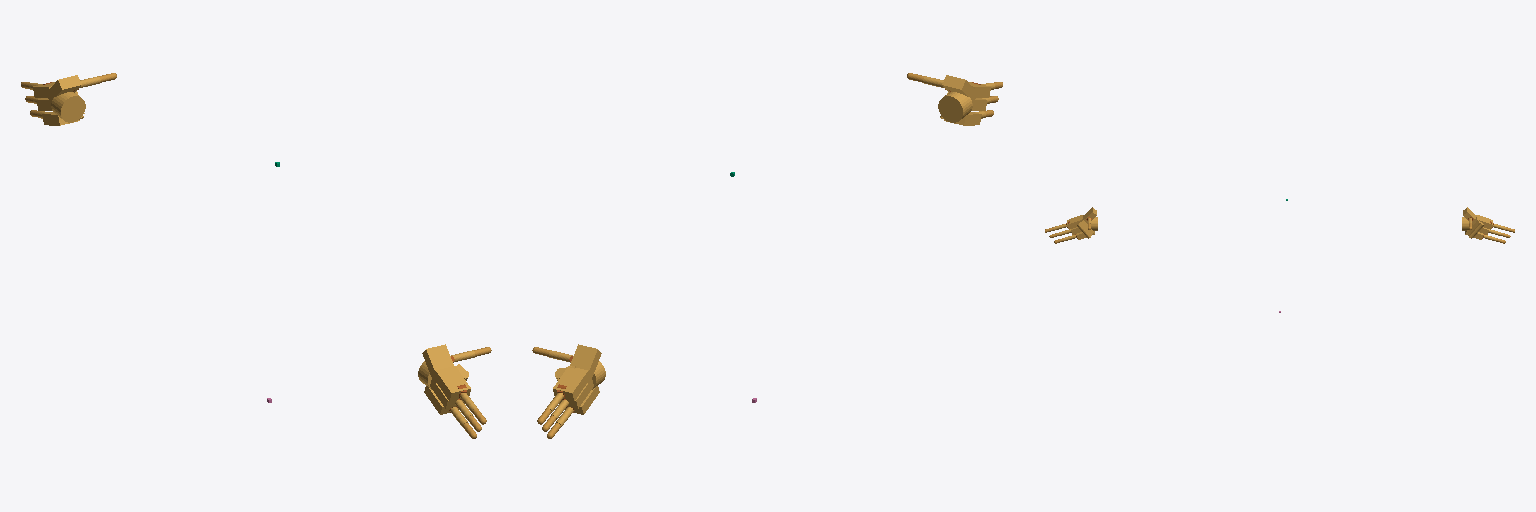
--- Facts derived from the render (not from the file) ---
3 views of the same robot in one strip: view 1: azimuth 30°, elevation 25°; view 2: azimuth 150°, elevation 25°; view 3: azimuth 270°, elevation 25° (orthographic).
Model atlas with 107 links and 106 joints (52 revolute, 1 continuous, 53 fixed), rooted at pelvis, posed all joints at 0.
Visible links, largest first — view 1: right_palm, left_palm; view 2: left_palm, right_palm; view 3: right_palm, left_palm.
Link boxes in pixels (bbox=[...]): right_palm: bbox=[418, 344, 470, 414]; left_palm: bbox=[33, 75, 85, 125]; left_palm: bbox=[553, 344, 605, 414]; right_palm: bbox=[938, 75, 990, 125]; right_palm: bbox=[1067, 207, 1097, 239]; left_palm: bbox=[1462, 207, 1492, 239].
Bounding box of the posed robot: 0.196 × 2.44 × 0.6724 m (x, y, z).
Meshes: 30 distinct files referenced, 0 mesh visuals loaded (none loaded); not drawn: 30 (reference not matched to a file when rendering).

URDF robot description (atlas):
<?xml version="1.0" ?>
<!-- =================================================================================== -->
<!-- |    This document was autogenerated by xacro from [local-path]/projects/drcsim_2.5/ros/atlas_description/robots/atlas_sandia_hands.urdf.xacro | -->
<!-- |    EDITING THIS FILE BY HAND IS NOT RECOMMENDED                                 | -->
<!-- =================================================================================== -->
<robot name="atlas" xmlns:xacro="http://www.ros.org/wiki/xacro">
  <link name="l_clav">
    <inertial>
      <mass value="2.369"/>
      <origin rpy="0 -0 0" xyz="0.014 0.058 0.029"/>
      <inertia ixx="0.004" ixy="0.001" ixz="0" iyy="0.006" iyz="0" izz="0.007"/>
    </inertial>
    <visual>
      <origin rpy="0 -0 0" xyz="0 0 0"/>
      <geometry>
        <mesh filename="package://atlas/meshes/l_clav.dae" scale="1 1 1"/>
      </geometry>
    </visual>
    <collision group="default">
      <origin rpy="0 1.5707963267949 0" xyz="0 0.0744 0.03657"/>
      <geometry>
        <cylinder length="0.1525" radius="0.045"/>
      </geometry>
    </collision>
    <collision group="other">
      <origin rpy="-0.5236 0 0" xyz="0 0.012 0.012"/>
      <geometry>
        <cylinder length="0.027" radius="0.04"/>
      </geometry>
    </collision>
  </link>
  <link name="l_farm">
    <inertial>
      <mass value="0.981"/>
      <origin rpy="0 -0 0" xyz="0 0.041 0"/>
      <inertia ixx="0.003" ixy="0" ixz="0" iyy="0.001" iyz="0" izz="0.003"/>
    </inertial>
    <visual>
      <origin rpy="0 -0 0" xyz="0 0 0"/>
      <geometry>
        <mesh filename="package://atlas/meshes/l_farm.dae" scale="1 1 1"/>
      </geometry>
    </visual>
    <collision group="default">
      <origin rpy="1.5707963267949 0 0" xyz="0 0.0174215 0"/>
      <geometry>
        <cylinder length="0.035181" radius="0.0458825"/>
      </geometry>
    </collision>
    <collision group="other">
      <origin rpy="0 1.5707963267949 0" xyz="0.000226 0.06028 0.0"/>
      <geometry>
        <cylinder length="0.050472" radius="0.0279"/>
      </geometry>
    </collision>
  </link>
  <link name="l_foot">
    <inertial>
      <mass value="0.867"/>
      <origin rpy="0 -0 0" xyz="0.027 0 -0.067"/>
      <inertia ixx="0.002" ixy="0" ixz="0" iyy="0.00350421" iyz="0" izz="0.00400651"/>
    </inertial>
    <visual>
      <origin rpy="0 -0 0" xyz="0 0 0"/>
      <geometry>
        <mesh filename="package://atlas/meshes/l_foot.dae" scale="1 1 1"/>
      </geometry>
    </visual>
    <!-- bottom -->
    <collision group="default">
      <origin rpy="0 0 0" xyz="0.048 0 -0.076119"/>
      <geometry>
        <box size="0.26 0.124887 0.01"/>
      </geometry>
    </collision>
    <!-- ankle FIXME: adding this collision body destabilizes robot, shouldn't
        <collision group="other">
          <origin xyz="0.0 0 -0.0528735" rpy="0 0 0"/>
          <geometry>
            <cylinder radius="0.0373" length="0.037827"/>
          </geometry>
        </collision>
        -->
  </link>
  <link name="l_hand">
    <inertial>
      <mass value="2.263"/>
      <origin rpy="0 -0 0" xyz="0 0.093 0"/>
      <inertia ixx="0.01" ixy="0" ixz="0" iyy="0.002" iyz="0" izz="0.01"/>
    </inertial>
    <visual>
      <origin rpy="0 -0 0" xyz="0 0 0"/>
      <geometry>
        <mesh filename="package://atlas/meshes/l_hand.dae" scale="1 1 1"/>
      </geometry>
    </visual>
    <collision group="default">
      <origin rpy="1.5707963267949 0 0" xyz="0 0.0526955 0.0"/>
      <geometry>
        <cylinder length="0.055117" radius="0.035939"/>
      </geometry>
    </collision>
    <collision group="other">
      <origin rpy="0 1.5707963267949 0" xyz="0.034375 0.002643 0"/>
      <geometry>
        <cylinder length="0.019" radius="0.035939"/>
      </geometry>
    </collision>
    <collision group="other">
      <origin rpy="0 1.5707963267949 0" xyz="-0.0365945 0.002643 0"/>
      <geometry>
        <cylinder length="0.019" radius="0.035939"/>
      </geometry>
    </collision>
  </link>
  <link name="l_larm">
    <inertial>
      <mass value="2.148"/>
      <origin rpy="0 -0 0" xyz="-0.003 0.099 -0.014"/>
      <inertia ixx="0.005" ixy="0" ixz="0" iyy="0.003" iyz="0" izz="0.006"/>
    </inertial>
    <visual>
      <origin rpy="0 -0 0" xyz="0 0 0"/>
      <geometry>
        <mesh filename="package://atlas/meshes/l_larm.dae" scale="1 1 1"/>
      </geometry>
    </visual>
    <collision group="default">
      <origin rpy="0 1.5707963267949 0" xyz="0.056065 0 0"/>
      <geometry>
        <cylinder length="0.0161" radius="0.045"/>
      </geometry>
    </collision>
    <collision group="other">
      <origin rpy="0 1.5707963267949 0" xyz="-0.0556155 0 0"/>
      <!-- double check -->
      <geometry>
        <cylinder length="0.0161" radius="0.045"/>
      </geometry>
    </collision>
    <collision group="other">
      <origin rpy="1.5707963267949 0 0" xyz="0 0.0940525 -0.01"/>
      <geometry>
        <cylinder length="0.188105" radius="0.044"/>
      </geometry>
    </collision>
  </link>
  <link name="l_lglut">
    <inertial>
      <mass value="0.803"/>
      <origin rpy="0 -0 0" xyz="0.0133341 0.0170484 -0.0312052"/>
      <inertia ixx="0.0453457" ixy="-2.24344e-05" ixz="2.50508e-06" iyy="0.0174182" iyz="0.000137862" izz="0.0071591"/>
    </inertial>
    <visual>
      <origin rpy="0 -0 0" xyz="0 0 0"/>
      <geometry>
        <mesh filename="package://atlas/meshes/l_lglut.dae" scale="1 1 1"/>
      </geometry>
    </visual>
    <collision group="default">
      <origin rpy="1.5707963267949 0 0" xyz="0.049968 0.022488 -0.0501165"/>
      <geometry>
        <cylinder length="0.060306" radius="0.02009687"/>
      </geometry>
    </collision>
    <collision group="other">
      <origin rpy="0 1.5707963267949 0" xyz="0 0 0"/>
      <geometry>
        <cylinder length="0.12" radius="0.02"/>
      </geometry>
    </collision>
  </link>
  <link name="l_lleg">
    <inertial>
      <mass value="4.367"/>
      <origin rpy="0 -0 0" xyz="0.001 0 -0.187"/>
      <inertia ixx="0.077" ixy="0" ixz="-0.003" iyy="0.076" iyz="0" izz="0.01"/>
    </inertial>
    <visual>
      <origin rpy="0 -0 0" xyz="0 0 0"/>
      <geometry>
        <mesh filename="package://atlas/meshes/l_lleg.dae" scale="1 1 1"/>
      </geometry>
    </visual>
    <collision group="default">
      <origin rpy="0 -0.06 0" xyz="-0.01 0.00295 -0.260"/>
      <geometry>
        <cylinder length="0.22" radius="0.06"/>
      </geometry>
    </collision>
    <collision group="other">
      <origin rpy="0 0.18 0" xyz="0.01 0.00295 -0.07"/>
      <geometry>
        <cylinder length="0.20" radius="0.06"/>
      </geometry>
    </collision>
  </link>
  <link name="l_scap">
    <inertial>
      <mass value="2.707"/>
      <origin rpy="0 -0 0" xyz="-0.002 0.108 0"/>
      <inertia ixx="0.01" ixy="0" ixz="0" iyy="0.005" iyz="0" izz="0.013"/>
    </inertial>
    <visual>
      <origin rpy="0 -0 0" xyz="0 0 0"/>
      <geometry>
        <mesh filename="package://atlas/meshes/l_scap.dae" scale="1 1 1"/>
      </geometry>
    </visual>
    <collision group="default">
      <origin rpy="1.5707963267949 0 0" xyz="0 0.118521 0"/>
      <geometry>
        <cylinder length="0.137492" radius="0.0418405"/>
      </geometry>
    </collision>
    <collision group="other">
      <origin rpy="0 1.5707963267949 0" xyz="-0.0884125 0 0"/>
      <geometry>
        <cylinder length="0.013937" radius="0.048709"/>
      </geometry>
    </collision>
    <collision group="other">
      <origin rpy="0 1.5707963267949 0" xyz="0.0847565 0 0"/>
      <geometry>
        <cylinder length="0.013737" radius="0.048709"/>
      </geometry>
    </collision>
  </link>
  <link name="l_talus">
    <inertial>
      <mass value="0.867"/>
      <origin rpy="0 -0 0" xyz="0 0 0"/>
      <inertia ixx="0.001" ixy="0" ixz="0" iyy="0.00350421" iyz="0" izz="0.00400651"/>
    </inertial>
    <visual>
      <origin rpy="0 -0 0" xyz="0 0 0"/>
      <geometry>
        <mesh filename="package://atlas/meshes/l_talus.dae" scale="1 1 1"/>
      </geometry>
    </visual>
    <collision group="default">
      <origin rpy="0 1.5707963267949 0" xyz="0 0 0"/>
      <geometry>
        <cylinder length="0.029542" radius="0.010181"/>
      </geometry>
    </collision>
    <collision group="other">
      <origin rpy="1.5707963267949 0 0" xyz="0 0 0"/>
      <geometry>
        <cylinder length="0.010059" radius="0.010348"/>
      </geometry>
    </collision>
  </link>
  <link name="l_uarm">
    <inertial>
      <mass value="1.881"/>
      <origin rpy="0 -0 0" xyz="0.007 0.114 0.008"/>
      <inertia ixx="0.002" ixy="0" ixz="0" iyy="0.003" iyz="0" izz="0.003"/>
    </inertial>
    <visual>
      <origin rpy="0 -0 0" xyz="0 0 0"/>
      <geometry>
        <mesh filename="package://atlas/meshes/l_uarm.dae" scale="1 1 1"/>
      </geometry>
    </visual>
    <collision group="default">
      <origin rpy="1.5707963267949 0 0" xyz="0 0.0583385 0"/>
      <geometry>
        <cylinder length="0.116677" radius="0.0449"/>
      </geometry>
    </collision>
    <collision group="other">
      <origin rpy="0 1.5707963267949 0" xyz="0 0.1205235 0.00912975"/>
      <geometry>
        <cylinder length="0.088934" radius="0.04504847"/>
      </geometry>
    </collision>
  </link>
  <link name="l_uglut">
    <inertial>
      <mass value="1.51622"/>
      <origin rpy="0 -0 0" xyz="0.00529262 -0.00344732 0.00313046"/>
      <inertia ixx="0.0327037" ixy="-3.79607e-08" ixz="-2.79549e-05" iyy="0.0174182" iyz="-3.2735e-08" izz="0.0071591"/>
    </inertial>
    <visual>
      <origin rpy="0 -0 0" xyz="0 0 0"/>
      <geometry>
        <mesh filename="package://atlas/meshes/l_uglut.dae" scale="1 1 1"/>
      </geometry>
    </visual>
    <collision group="default">
      <origin rpy="0 1.5707963267949 0" xyz="0 0 0"/>
      <geometry>
        <cylinder length="0.078396" radius="0.019096"/>
      </geometry>
    </collision>
    <collision group="other">
      <origin rpy="0 0 0" xyz="0 0 0"/>
      <geometry>
        <cylinder length="0.080842" radius="0.019841"/>
      </geometry>
    </collision>
  </link>
  <link name="l_uleg">
    <inertial>
      <mass value="7.227"/>
      <origin rpy="0 -0 0" xyz="0 0 -0.21"/>
      <inertia ixx="0.0453457" ixy="0" ixz="0" iyy="0.09" iyz="0" izz="0.0071591"/>
    </inertial>
    <visual>
      <origin rpy="0 -0 0" xyz="0 0 0"/>
      <geometry>
        <mesh filename="package://atlas/meshes/l_uleg.dae" scale="1 1 1"/>
      </geometry>
    </visual>
    <collision group="default">
      <origin rpy="0 0 0" xyz="-0.0179 0.02085 -0.13"/>
      <geometry>
        <cylinder length="0.10" radius="0.1"/>
      </geometry>
    </collision>
    <collision group="other">
      <origin rpy="0 -0.3 0" xyz="-0.03 0.01 -0.23"/>
      <geometry>
        <cylinder length="0.15" radius="0.07"/>
      </geometry>
    </collision>
    <collision group="other">
      <origin rpy="0 0.3 0" xyz="-0.005 0.01 -0.23"/>
      <geometry>
        <cylinder length="0.15" radius="0.07"/>
      </geometry>
    </collision>
    <collision group="other">
      <origin rpy="-0.25 0 0" xyz="-0.02 0.03 -0.23"/>
      <geometry>
        <cylinder length="0.15" radius="0.07"/>
      </geometry>
    </collision>
  </link>
  <link name="ltorso">
    <inertial>
      <mass value="1.62729"/>
      <origin rpy="0 -0 0" xyz="-0.0112984 -3.15366e-06 0.0746835"/>
      <inertia ixx="0.0646646" ixy="-5.04491e-08" ixz="-0.000342157" iyy="0.050298" iyz="4.87119e-07" izz="0.10973"/>
    </inertial>
    <visual>
      <origin rpy="0 -0 0" xyz="0 0 0"/>
      <geometry>
        <mesh filename="package://atlas/meshes/ltorso.dae" scale="1 1 1"/>
      </geometry>
    </visual>
    <!-- this part is completely internal
        <collision group="default">
          <origin rpy="0 0 0" xyz="0 0 0.039762"/>
          <geometry>
            <cylinder radius="0.025918" length="0.076922"/>
          </geometry>
        </collision>
        <collision group="other">
          <origin rpy="1.5707963267949 0 0" xyz="0 0.0250065 0.09025"/>
          <geometry>
            <cylinder radius="0.014828" length="0.020367"/>
          </geometry>
        </collision>
        <collision group="other">
          <origin rpy="1.5707963267949 0 0" xyz="0 -0.0248895 0.09025"/>
          <geometry>
            <cylinder radius="0.014828" length="0.020169"/>
          </geometry>
        </collision>
        -->
  </link>
  <link name="mtorso">
    <inertial>
      <mass value="3.8068"/>
      <origin rpy="0 -0 0" xyz="-0.00816266 -0.0131245 0.0305974"/>
      <inertia ixx="0.1975" ixy="-6.10764e-05" ixz="3.94009e-05" iyy="0.544742" iyz="5.27463e-05" izz="0.10973"/>
    </inertial>
    <visual>
      <origin rpy="0 -0 0" xyz="0 0 0"/>
      <geometry>
        <mesh filename="package://atlas/meshes/mtorso.dae" scale="1 1 1"/>
      </geometry>
    </visual>
    <collision group="default">
      <origin rpy="1.5707963267949 0 0" xyz="0 0 0"/>
      <geometry>
        <cylinder length="0.03" radius="0.017"/>
      </geometry>
    </collision>
    <collision group="other">
      <origin rpy="0 1.5707963267949 0" xyz="0.0285 0 0.05"/>
      <geometry>
        <cylinder length="0.02" radius="0.015"/>
      </geometry>
    </collision>
    <collision group="other">
      <origin rpy="0 1.5707963267949 0" xyz="-0.0285 0 0.05"/>
      <geometry>
        <cylinder length="0.02" radius="0.015"/>
      </geometry>
    </collision>
  </link>
  <link name="pelvis">
    <inertial>
      <mass value="12.54638"/>
      <origin rpy="0 -0 0" xyz="0.0111 0 0.0271"/>
      <inertia ixx="0.0327037" ixy="0.0008" ixz="-0.0007" iyy="0.0174182" iyz="-0.0005" izz="0.118059"/>
    </inertial>
    <visual>
      <origin rpy="0 -0 0" xyz="0 0 0"/>
      <geometry>
        <mesh filename="package://atlas/meshes/pelvis.dae" scale="1 1 1"/>
      </geometry>
    </visual>
    <collision group="default">
      <origin rpy="1.5707963267949 0 0" xyz="0.046 0.0 -0.02"/>
      <geometry>
        <cylinder length="0.03" radius="0.092"/>
      </geometry>
    </collision>
    <collision group="other">
      <origin rpy="1.5707963267949 0 0" xyz="-0.03 0.0 -0.02"/>
      <geometry>
        <cylinder length="0.03" radius="0.092"/>
      </geometry>
    </collision>
    <collision group="other">
      <origin rpy="0 0 0" xyz="0 0.042 0.06"/>
      <geometry>
        <cylinder length="0.022" radius="0.130"/>
      </geometry>
    </collision>
    <collision group="other">
      <origin rpy="0 0 0" xyz="0 -0.042 0.06"/>
      <geometry>
        <cylinder length="0.022" radius="0.130"/>
      </geometry>
    </collision>
  </link>
  <link name="r_clav">
    <inertial>
      <mass value="2.369"/>
      <origin rpy="0 -0 0" xyz="0.014 -0.058 0.029"/>
      <inertia ixx="0.004" ixy="-0.001" ixz="0" iyy="0.006" iyz="0" izz="0.007"/>
    </inertial>
    <visual>
      <origin rpy="0 -0 0" xyz="0 0 0"/>
      <geometry>
        <mesh filename="package://atlas/meshes/r_clav.dae" scale="1 1 1"/>
      </geometry>
    </visual>
    <collision group="default">
      <origin rpy="0 1.5707963267949 0" xyz="0 -0.0744 0.03657"/>
      <geometry>
        <cylinder length="0.1525" radius="0.045"/>
      </geometry>
    </collision>
    <collision group="other">
      <origin rpy="0.5236 0 0" xyz="0 -0.012 0.012"/>
      <geometry>
        <cylinder length="0.027" radius="0.04"/>
      </geometry>
    </collision>
  </link>
  <link name="r_farm">
    <inertial>
      <mass value="0.981"/>
      <origin rpy="0 -0 0" xyz="0 -0.041 0"/>
      <inertia ixx="0.003" ixy="0" ixz="0" iyy="0.001" iyz="0" izz="0.003"/>
    </inertial>
    <visual>
      <origin rpy="0 -0 0" xyz="0 0 0"/>
      <geometry>
        <mesh filename="package://atlas/meshes/r_farm.dae" scale="1 1 1"/>
      </geometry>
    </visual>
    <collision group="default">
      <origin rpy="1.5707963267949 0 0" xyz="0 -0.0174215 0"/>
      <geometry>
        <cylinder length="0.035181" radius="0.0458825"/>
      </geometry>
    </collision>
    <collision group="other">
      <origin rpy="0 1.5707963267949 0" xyz="0.000226 -0.06028 0.0"/>
      <geometry>
        <cylinder length="0.050472" radius="0.0279"/>
      </geometry>
    </collision>
  </link>
  <link name="r_foot">
    <inertial>
      <mass value="0.867"/>
      <origin rpy="0 -0 0" xyz="0.027 0 -0.067"/>
      <inertia ixx="0.002" ixy="0" ixz="0" iyy="0.00350421" iyz="0" izz="0.00400651"/>
    </inertial>
    <visual>
      <origin rpy="0 -0 0" xyz="0 0 0"/>
      <geometry>
        <mesh filename="package://atlas/meshes/r_foot.dae" scale="1 1 1"/>
      </geometry>
    </visual>
    <!-- bottom -->
    <collision group="default">
      <origin rpy="0 0 0" xyz="0.048 0 -0.076119"/>
      <geometry>
        <box size="0.26 0.124887 0.01"/>
      </geometry>
    </collision>
    <!-- ankle FIXME: adding this collision body destabilizes robot, shouldn't
        <collision group="other">
          <origin xyz="0.0 0 -0.0528735" rpy="0 0 0"/>
          <geometry>
            <cylinder radius="0.0373" length="0.037827"/>
          </geometry>
        </collision>
        -->
  </link>
  <link name="r_hand">
    <inertial>
      <mass value="2.263"/>
      <origin rpy="0 -0 0" xyz="0 -0.093 0"/>
      <inertia ixx="0.01" ixy="0" ixz="0" iyy="0.002" iyz="0" izz="0.01"/>
    </inertial>
    <visual>
      <origin rpy="0 -0 0" xyz="0 0 0"/>
      <geometry>
        <mesh filename="package://atlas/meshes/r_hand.dae" scale="1 1 1"/>
      </geometry>
    </visual>
    <collision group="default">
      <origin rpy="1.5707963267949 0 0" xyz="0 -0.0526955 0.0"/>
      <geometry>
        <cylinder length="0.055117" radius="0.035939"/>
      </geometry>
    </collision>
    <collision group="other">
      <origin rpy="0 1.5707963267949 0" xyz="0.034375 -0.002643 0"/>
      <geometry>
        <cylinder length="0.019" radius="0.035939"/>
      </geometry>
    </collision>
    <collision group="other">
      <origin rpy="0 1.5707963267949 0" xyz="-0.0365945 -0.002643 0"/>
      <geometry>
        <cylinder length="0.019" radius="0.035939"/>
      </geometry>
    </collision>
  </link>
  <link name="r_larm">
    <inertial>
      <mass value="2.148"/>
      <origin rpy="0 -0 0" xyz="-0.003 -0.099 -0.014"/>
      <inertia ixx="0.005" ixy="0" ixz="0" iyy="0.003" iyz="0" izz="0.006"/>
    </inertial>
    <visual>
      <origin rpy="0 -0 0" xyz="0 0 0"/>
      <geometry>
        <mesh filename="package://atlas/meshes/r_larm.dae" scale="1 1 1"/>
      </geometry>
    </visual>
    <collision group="default">
      <origin rpy="0 1.5707963267949 0" xyz="0.056065 0 0"/>
      <geometry>
        <cylinder length="0.0161" radius="0.045"/>
      </geometry>
    </collision>
    <collision group="other">
      <origin rpy="0 1.5707963267949 0" xyz="-0.0556155 0 0"/>
      <!-- double check -->
      <geometry>
        <cylinder length="0.0161" radius="0.045"/>
      </geometry>
    </collision>
    <collision group="other">
      <origin rpy="1.5707963267949 0 0" xyz="0 -0.0940525 -0.01"/>
      <geometry>
        <cylinder length="0.188105" radius="0.044"/>
      </geometry>
    </collision>
  </link>
  <link name="r_lglut">
    <inertial>
      <mass value="0.803"/>
      <origin rpy="0 -0 0" xyz="0.0133341 -0.0170484 -0.0312052"/>
      <inertia ixx="0.0453457" ixy="2.24344e-05" ixz="2.50508e-06" iyy="0.0174182" iyz="-0.000137862" izz="0.0071591"/>
    </inertial>
    <visual>
      <origin rpy="0 -0 0" xyz="0 0 0"/>
      <geometry>
        <mesh filename="package://atlas/meshes/r_lglut.dae" scale="1 1 1"/>
      </geometry>
    </visual>
    <collision group="default">
      <origin rpy="1.5707963267949 0 0" xyz="0.049968 -0.022488 -0.0501165"/>
      <geometry>
        <cylinder length="0.060306" radius="0.02009687"/>
      </geometry>
    </collision>
    <collision group="other">
      <origin rpy="0 1.5707963267949 0" xyz="0 0 0"/>
      <geometry>
        <cylinder length="0.12" radius="0.02"/>
      </geometry>
    </collision>
  </link>
  <link name="r_lleg">
    <inertial>
      <mass value="4.367"/>
      <origin rpy="0 -0 0" xyz="0.001 0 -0.187"/>
      <inertia ixx="0.077" ixy="-0" ixz="-0.003" iyy="0.076" iyz="-0" izz="0.01"/>
    </inertial>
    <visual>
      <origin rpy="0 -0 0" xyz="0 0 0"/>
      <geometry>
        <mesh filename="package://atlas/meshes/r_lleg.dae" scale="1 1 1"/>
      </geometry>
    </visual>
    <collision group="default">
      <origin rpy="0 -0.06 0" xyz="-0.01 -0.00295 -0.260"/>
      <geometry>
        <cylinder length="0.22" radius="0.06"/>
      </geometry>
    </collision>
    <collision group="other">
      <origin rpy="0 0.18 0" xyz="0.01 -0.00295 -0.07"/>
      <geometry>
        <cylinder length="0.20" radius="0.06"/>
      </geometry>
    </collision>
  </link>
  <link name="r_scap">
    <inertial>
      <mass value="2.707"/>
      <origin rpy="0 -0 0" xyz="-0.002 -0.108 0"/>
      <inertia ixx="0.01" ixy="0" ixz="0" iyy="0.005" iyz="0" izz="0.013"/>
    </inertial>
    <visual>
      <origin rpy="0 -0 0" xyz="0 0 0"/>
      <geometry>
        <mesh filename="package://atlas/meshes/r_scap.dae" scale="1 1 1"/>
      </geometry>
    </visual>
    <collision group="default">
      <origin rpy="1.5707963267949 0 0" xyz="0 -0.118521 0"/>
      <geometry>
        <cylinder length="0.137492" radius="0.0418405"/>
      </geometry>
    </collision>
    <collision group="other">
      <origin rpy="0 1.5707963267949 0" xyz="-0.0884125 0 0"/>
      <geometry>
        <cylinder length="0.013937" radius="0.048709"/>
      </geometry>
    </collision>
    <collision group="other">
      <origin rpy="0 1.5707963267949 0" xyz="0.0847565 0 0"/>
      <geometry>
        <cylinder length="0.013737" radius="0.048709"/>
      </geometry>
    </collision>
  </link>
  <link name="r_talus">
    <inertial>
      <mass value="0.867"/>
      <origin rpy="0 -0 0" xyz="0 0 0"/>
      <inertia ixx="0.001" ixy="0" ixz="0" iyy="0.00350421" iyz="0" izz="0.00400651"/>
    </inertial>
    <visual>
      <origin rpy="0 -0 0" xyz="0 0 0"/>
      <geometry>
        <mesh filename="package://atlas/meshes/r_talus.dae" scale="1 1 1"/>
      </geometry>
    </visual>
    <collision group="default">
      <origin rpy="0 1.5707963267949 0" xyz="0 0 0"/>
      <geometry>
        <cylinder length="0.029542" radius="0.010181"/>
      </geometry>
    </collision>
    <collision group="other">
      <origin rpy="1.5707963267949 0 0" xyz="0 0 0"/>
      <geometry>
        <cylinder length="0.010059" radius="0.010348"/>
      </geometry>
    </collision>
  </link>
  <link name="r_uarm">
    <inertial>
      <mass value="1.881"/>
      <origin rpy="0 -0 0" xyz="0.007 -0.114 0.008"/>
      <inertia ixx="0.002" ixy="0" ixz="0" iyy="0.003" iyz="0" izz="0.003"/>
    </inertial>
    <visual>
      <origin rpy="0 -0 0" xyz="0 0 0"/>
      <geometry>
        <mesh filename="package://atlas/meshes/r_uarm.dae" scale="1 1 1"/>
      </geometry>
    </visual>
    <collision group="default">
      <origin rpy="1.5707963267949 0 0" xyz="0 -0.0583385 0"/>
      <geometry>
        <cylinder length="0.116677" radius="0.0449"/>
      </geometry>
    </collision>
    <collision group="other">
      <origin rpy="0 1.5707963267949 0" xyz="0 -0.1205235 0.00912975"/>
      <geometry>
        <cylinder length="0.088934" radius="0.04504847"/>
      </geometry>
    </collision>
  </link>
  <link name="r_uglut">
    <inertial>
      <mass value="1.51622"/>
      <origin rpy="0 -0 0" xyz="0.00529262 0.00344732 0.00313046"/>
      <inertia ixx="0.0327037" ixy="3.79607e-08" ixz="-2.79549e-05" iyy="0.0174182" iyz="3.2735e-08" izz="0.0071591"/>
    </inertial>
    <visual>
      <origin rpy="0 -0 0" xyz="0 0 0"/>
      <geometry>
        <mesh filename="package://atlas/meshes/r_uglut.dae" scale="1 1 1"/>
      </geometry>
    </visual>
    <collision group="default">
      <origin rpy="0 1.5707963267949 0" xyz="0 0 0"/>
      <geometry>
        <cylinder length="0.078396" radius="0.019096"/>
      </geometry>
    </collision>
    <collision group="other">
      <origin rpy="0 0 0" xyz="0 0 0"/>
      <geometry>
        <cylinder length="0.080842" radius="0.019841"/>
      </geometry>
    </collision>
  </link>
  <link name="r_uleg">
    <inertial>
      <mass value="7.227"/>
      <origin rpy="0 -0 0" xyz="0 0 -0.21"/>
      <inertia ixx="0.0453457" ixy="0" ixz="0" iyy="0.09" iyz="0" izz="0.0071591"/>
    </inertial>
    <visual>
      <origin rpy="0 -0 0" xyz="0 0 0"/>
      <geometry>
        <mesh filename="package://atlas/meshes/r_uleg.dae" scale="1 1 1"/>
      </geometry>
    </visual>
    <collision group="default">
      <origin rpy="0 0 0" xyz="-0.0179 -0.02085 -0.13"/>
      <geometry>
        <cylinder length="0.10" radius="0.1"/>
      </geometry>
    </collision>
    <collision group="other">
      <origin rpy="0 -0.3 0" xyz="-0.03 -0.01 -0.23"/>
      <geometry>
        <cylinder length="0.15" radius="0.07"/>
      </geometry>
    </collision>
    <collision group="other">
      <origin rpy="0 0.3 0" xyz="-0.005 -0.01 -0.23"/>
      <geometry>
        <cylinder length="0.15" radius="0.07"/>
      </geometry>
    </collision>
    <collision group="other">
      <origin rpy="0.25 0 0" xyz="-0.02 -0.03 -0.23"/>
      <geometry>
        <cylinder length="0.15" radius="0.07"/>
      </geometry>
    </collision>
  </link>
  <link name="utorso">
    <inertial>
      <mass value="15.2272"/>
      <origin rpy="0 -0 0" xyz="0.02 -0.001 0.211"/>
      <inertia ixx="0.395" ixy="0" ixz="0.083" iyy="0.544742" iyz="-0.003" izz="0.10973"/>
    </inertial>
    <visual>
      <origin rpy="0 -0 0" xyz="0 0 0"/>
      <geometry>
        <mesh filename="package://atlas/meshes/utorso.dae" scale="1 1 1"/>
      </geometry>
    </visual>
    <collision group="default">
      <origin rpy="0 -0 0" xyz="0.0446 0 0.1869"/>
      <geometry>
        <box size="0.3188 0.24 0.3162"/>
      </geometry>
    </collision>
    <collision group="other">
      <origin rpy="-0.5236 0 0" xyz="0.024 0.16 0.18"/>
      <geometry>
        <cylinder length="0.22375" radius="0.0363"/>
      </geometry>
    </collision>
    <collision group="other">
      <origin rpy="0.5236 0 0" xyz="0.024 -0.16 0.18"/>
      <geometry>
        <cylinder length="0.22375" radius="0.0363"/>
      </geometry>
    </collision>
  </link>
  <joint name="back_lbz" type="revolute">
    <origin rpy="0 -0 0" xyz="-0.0125 0 0"/>
    <axis xyz="0 0 1"/>
    <parent link="pelvis"/>
    <child link="ltorso"/>
    <dynamics damping="10" friction="0"/>
    <limit effort="124.016" lower="-0.610865" upper="0.610865" velocity="12"/>
    <safety_controller k_position="100" k_velocity="100" soft_lower_limit="-10.6109" soft_upper_limit="10.6109"/>
  </joint>
  <joint name="back_mby" type="revolute">
    <origin rpy="0 -0 0" xyz="0 0 0.09"/>
    <axis xyz="0 1 0"/>
    <parent link="ltorso"/>
    <child link="mtorso"/>
    <dynamics damping="10" friction="0"/>
    <limit effort="206.843" lower="-1.2" upper="1.28" velocity="12"/>
    <safety_controller k_position="100" k_velocity="100" soft_lower_limit="-11.2" soft_upper_limit="11.28"/>
  </joint>
  <joint name="back_ubx" type="revolute">
    <origin rpy="0 -0 0" xyz="0 0 0.05"/>
    <axis xyz="1 0 0"/>
    <parent link="mtorso"/>
    <child link="utorso"/>
    <dynamics damping="10" friction="0"/>
    <limit effort="94.91" lower="-0.790809" upper="0.790809" velocity="12"/>
    <safety_controller k_position="100" k_velocity="100" soft_lower_limit="-10.7908" soft_upper_limit="10.7908"/>
  </joint>
  <joint name="l_arm_elx" type="revolute">
    <origin rpy="0 -0 0" xyz="0 0.121 0.013"/>
    <axis xyz="1 0 0"/>
    <parent link="l_uarm"/>
    <child link="l_larm"/>
    <dynamics damping="1.0" friction="0"/>
    <limit effort="114" lower="0" upper="2.35619" velocity="12"/>
    <safety_controller k_position="100" k_velocity="100" soft_lower_limit="-10" soft_upper_limit="12.3562"/>
  </joint>
  <joint name="l_arm_ely" type="revolute">
    <origin rpy="0 -0 0" xyz="0 0.185 0"/>
    <axis xyz="0 1 0"/>
    <parent link="l_scap"/>
    <child link="l_uarm"/>
    <dynamics damping="1.0" friction="0"/>
    <limit effort="114" lower="0" upper="3.14159" velocity="12"/>
    <safety_controller k_position="100" k_velocity="100" soft_lower_limit="-10" soft_upper_limit="13.1416"/>
  </joint>
  <joint name="l_arm_mwx" type="revolute">
    <origin rpy="0 -0 0" xyz="0 0.058 0"/>
    <axis xyz="1 0 0"/>
    <parent link="l_farm"/>
    <child link="l_hand"/>
    <dynamics damping="1.0" friction="0"/>
    <limit effort="60" lower="-0.436" upper="1.571" velocity="12"/>
    <safety_controller k_position="100" k_velocity="100" soft_lower_limit="-10.436" soft_upper_limit="11.571"/>
  </joint>
  <joint name="l_arm_shx" type="revolute">
    <origin rpy="0 -0 0" xyz="0 0.075 0.036"/>
    <axis xyz="1 0 0"/>
    <parent link="l_clav"/>
    <child link="l_scap"/>
    <dynamics damping="1.0" friction="0"/>
    <limit effort="170" lower="-1.39626" upper="1.74533" velocity="12"/>
    <safety_controller k_position="100" k_velocity="100" soft_lower_limit="-11.3963" soft_upper_limit="11.7453"/>
  </joint>
  <joint name="l_arm_usy" type="revolute">
    <origin rpy="0 -0 0" xyz="0.024 0.221 0.289"/>
    <axis xyz="0 0.5 0.866025"/>
    <parent link="utorso"/>
    <child link="l_clav"/>
    <dynamics damping="1.0" friction="0"/>
    <limit effort="212" lower="-1.9635" upper="1.9635" velocity="12"/>
    <safety_controller k_position="100" k_velocity="100" soft_lower_limit="-11.9635" soft_upper_limit="11.9635"/>
  </joint>
  <joint name="l_arm_uwy" type="revolute">
    <origin rpy="0 -0 0" xyz="0 0.188 -0.013"/>
    <axis xyz="0 1 0"/>
    <parent link="l_larm"/>
    <child link="l_farm"/>
    <dynamics damping="1.0" friction="0"/>
    <limit effort="114" lower="-1.571" upper="1.571" velocity="12"/>
    <safety_controller k_position="100" k_velocity="100" soft_lower_limit="-11.571" soft_upper_limit="11.571"/>
  </joint>
  <joint name="l_leg_kny" type="revolute">
    <origin rpy="0 -0 0" xyz="-0.05 0 -0.374"/>
    <axis xyz="0 1 0"/>
    <parent link="l_uleg"/>
    <child link="l_lleg"/>
    <dynamics damping="1.0" friction="0"/>
    <limit effort="220" lower="0" upper="2.45" velocity="12"/>
    <safety_controller k_position="100" k_velocity="100" soft_lower_limit="-10" soft_upper_limit="12.45"/>
  </joint>
  <joint name="l_leg_lax" type="revolute">
    <origin rpy="0 -0 0" xyz="0 0 0"/>
    <axis xyz="1 0 0"/>
    <parent link="l_talus"/>
    <child link="l_foot"/>
    <dynamics damping="1.0" friction="0"/>
    <limit effort="90" lower="-0.436" upper="0.436" velocity="12"/>
    <safety_controller k_position="100" k_velocity="100" soft_lower_limit="-10.436" soft_upper_limit="10.436"/>
  </joint>
  <joint name="l_leg_lhy" type="revolute">
    <origin rpy="0 -0 0" xyz="0.05 0 -0.05"/>
    <axis xyz="0 1 0"/>
    <parent link="l_lglut"/>
    <child link="l_uleg"/>
    <dynamics damping="1.0" friction="0"/>
    <limit effort="260" lower="-1.75" upper="0.524" velocity="12"/>
    <safety_controller k_position="100" k_velocity="100" soft_lower_limit="-11.75" soft_upper_limit="10.524"/>
  </joint>
  <joint name="l_leg_mhx" type="revolute">
    <origin rpy="0 -0 0" xyz="0 0 0"/>
    <axis xyz="1 0 0"/>
    <parent link="l_uglut"/>
    <child link="l_lglut"/>
    <dynamics damping="1.0" friction="0"/>
    <limit effort="180" lower="-0.47" upper="0.495" velocity="12"/>
    <safety_controller k_position="100" k_velocity="100" soft_lower_limit="-10.47" soft_upper_limit="10.495"/>
  </joint>
  <joint name="l_leg_uay" type="revolute">
    <origin rpy="0 -0 0" xyz="0 0 -0.422"/>
    <axis xyz="0 1 0"/>
    <parent link="l_lleg"/>
    <child link="l_talus"/>
    <dynamics damping="1.0" friction="0"/>
    <limit effort="220" lower="-0.698" upper="0.698" velocity="12"/>
    <safety_controller k_position="100" k_velocity="100" soft_lower_limit="-10.698" soft_upper_limit="10.698"/>
  </joint>
  <joint name="l_leg_uhz" type="revolute">
    <origin rpy="0 -0 0" xyz="0 0.089 0"/>
    <axis xyz="0 0 1"/>
    <parent link="pelvis"/>
    <child link="l_uglut"/>
    <dynamics damping="1.0" friction="0"/>
    <limit effort="110" lower="-0.32" upper="1.14" velocity="12"/>
    <safety_controller k_position="100" k_velocity="100" soft_lower_limit="-10.32" soft_upper_limit="11.14"/>
  </joint>
  <joint name="neck_ay" type="revolute">
    <!-- per slides on sensor head kinematics 2013-02-13, to be used after VRC
        <origin xyz="0.21672 0 0.53796" rpy="0 -0 0" />
        -->
    <!-- per slides on sensor head kinematics 2012-12-14 -->
    <origin rpy="0 -0 0" xyz="0.16555 0 0.50823"/>
    <axis xyz="0 1 0"/>
    <parent link="utorso"/>
    <child link="head"/>
    <dynamics damping="1.0" friction="0"/>
    <!-- per slides on sensor head kinematics 2012-12-14 -->
    <limit effort="5" lower="-0.610865238" upper="1.13446401" velocity="12"/>
    <safety_controller k_position="100" k_velocity="100" soft_lower_limit="-10.610865238" soft_upper_limit="11.13446401"/>
  </joint>
  <joint name="r_arm_elx" type="revolute">
    <origin rpy="0 -0 0" xyz="0 -0.121 0.013"/>
    <axis xyz="1 0 0"/>
    <parent link="r_uarm"/>
    <child link="r_larm"/>
    <dynamics damping="1.0" friction="0"/>
    <limit effort="114" lower="-2.35619" upper="0" velocity="12"/>
    <safety_controller k_position="100" k_velocity="100" soft_lower_limit="-12.3562" soft_upper_limit="10"/>
  </joint>
  <joint name="r_arm_ely" type="revolute">
    <origin rpy="0 -0 0" xyz="0 -0.185 0"/>
    <axis xyz="0 1 0"/>
    <parent link="r_scap"/>
    <child link="r_uarm"/>
    <dynamics damping="1.0" friction="0"/>
    <limit effort="114" lower="0" upper="3.14159" velocity="12"/>
    <safety_controller k_position="100" k_velocity="100" soft_lower_limit="-10" soft_upper_limit="13.1416"/>
  </joint>
  <joint name="r_arm_mwx" type="revolute">
    <origin rpy="0 -0 0" xyz="0 -0.058 0"/>
    <axis xyz="1 0 0"/>
    <parent link="r_farm"/>
    <child link="r_hand"/>
    <dynamics damping="1.0" friction="0"/>
    <limit effort="60" lower="-1.571" upper="0.436" velocity="12"/>
    <safety_controller k_position="100" k_velocity="100" soft_lower_limit="-11.571" soft_upper_limit="10.436"/>
  </joint>
  <joint name="r_arm_shx" type="revolute">
    <origin rpy="0 -0 0" xyz="0 -0.075 0.036"/>
    <axis xyz="1 0 0"/>
    <parent link="r_clav"/>
    <child link="r_scap"/>
    <dynamics damping="1.0" friction="0"/>
    <limit effort="170" lower="-1.74533" upper="1.39626" velocity="12"/>
    <safety_controller k_position="100" k_velocity="100" soft_lower_limit="-11.7453" soft_upper_limit="11.3963"/>
  </joint>
  <joint name="r_arm_usy" type="revolute">
    <origin rpy="0 -0 0" xyz="0.024 -0.221 0.289"/>
    <axis xyz="0 0.5 -0.866025"/>
    <parent link="utorso"/>
    <child link="r_clav"/>
    <dynamics damping="1.0" friction="0"/>
    <limit effort="212" lower="-1.9635" upper="1.9635" velocity="12"/>
    <safety_controller k_position="100" k_velocity="100" soft_lower_limit="-11.9635" soft_upper_limit="11.9635"/>
  </joint>
  <joint name="r_arm_uwy" type="revolute">
    <origin rpy="0 -0 0" xyz="0 -0.188 -0.013"/>
    <axis xyz="0 1 0"/>
    <parent link="r_larm"/>
    <child link="r_farm"/>
    <dynamics damping="1.0" friction="0"/>
    <limit effort="114" lower="-1.571" upper="1.571" velocity="12"/>
    <safety_controller k_position="100" k_velocity="100" soft_lower_limit="-11.571" soft_upper_limit="11.571"/>
  </joint>
  <joint name="r_leg_kny" type="revolute">
    <origin rpy="0 -0 0" xyz="-0.05 0 -0.374"/>
    <axis xyz="0 1 0"/>
    <parent link="r_uleg"/>
    <child link="r_lleg"/>
    <dynamics damping="1.0" friction="0"/>
    <limit effort="220" lower="0" upper="2.45" velocity="12"/>
    <safety_controller k_position="100" k_velocity="100" soft_lower_limit="-10" soft_upper_limit="12.45"/>
  </joint>
  <joint name="r_leg_lax" type="revolute">
    <origin rpy="0 -0 0" xyz="0 0 0"/>
    <axis xyz="1 0 0"/>
    <parent link="r_talus"/>
    <child link="r_foot"/>
    <dynamics damping="1.0" friction="0"/>
    <limit effort="90" lower="-0.436" upper="0.436" velocity="12"/>
    <safety_controller k_position="100" k_velocity="100" soft_lower_limit="-10.436" soft_upper_limit="10.436"/>
  </joint>
  <joint name="r_leg_lhy" type="revolute">
    <origin rpy="0 -0 0" xyz="0.05 0 -0.05"/>
    <axis xyz="0 1 0"/>
    <parent link="r_lglut"/>
    <child link="r_uleg"/>
    <dynamics damping="1.0" friction="0"/>
    <limit effort="260" lower="-1.745" upper="0.524" velocity="12"/>
    <safety_controller k_position="100" k_velocity="100" soft_lower_limit="-11.745" soft_upper_limit="10.524"/>
  </joint>
  <joint name="r_leg_mhx" type="revolute">
    <origin rpy="0 -0 0" xyz="0 0 0"/>
    <axis xyz="1 0 0"/>
    <parent link="r_uglut"/>
    <child link="r_lglut"/>
    <dynamics damping="1.0" friction="0"/>
    <limit effort="180" lower="-0.495" upper="0.47" velocity="12"/>
    <safety_controller k_position="100" k_velocity="100" soft_lower_limit="-10.495" soft_upper_limit="10.47"/>
  </joint>
  <joint name="r_leg_uay" type="revolute">
    <origin rpy="0 -0 0" xyz="0 0 -0.422"/>
    <axis xyz="0 1 0"/>
    <parent link="r_lleg"/>
    <child link="r_talus"/>
    <dynamics damping="1.0" friction="0"/>
    <limit effort="220" lower="-0.698" upper="0.698" velocity="12"/>
    <safety_controller k_position="100" k_velocity="100" soft_lower_limit="-10.698" soft_upper_limit="10.698"/>
  </joint>
  <joint name="r_leg_uhz" type="revolute">
    <origin rpy="0 -0 0" xyz="0 -0.089 0"/>
    <axis xyz="0 0 1"/>
    <parent link="pelvis"/>
    <child link="r_uglut"/>
    <dynamics damping="1.0" friction="0"/>
    <limit effort="260" lower="-1.14" upper="0.32" velocity="12"/>
    <safety_controller k_position="100" k_velocity="100" soft_lower_limit="-11.14" soft_upper_limit="10.32"/>
  </joint>
  <link name="right_palm">
    <origin rpy="0 0 0" xyz="0 0 0"/>
    <inertial>
      <mass value="1.303"/>
      <origin xyz="0 0 0"/>
      <!-- solid sphere with 5cm radius -->
      <inertia ixx="0.001303" ixy="0" ixz="0" iyy="0.001303" iyz="0" izz="0.001303"/>
    </inertial>
    <!-- begin simple shape approximation of palm -->
    <collision group="default">
      <origin rpy="0 1.57079632679 -0.9" xyz="0.069 0.016 0.038"/>
      <geometry>
        <cylinder length="0.100" radius="0.013"/>
      </geometry>
    </collision>
    <collision group="other">
      <origin rpy="0.41 0 -0.9" xyz="0.064 0.008 0.021"/>
      <geometry>
        <box size="0.09 .035 .05"/>
      </geometry>
    </collision>
    <collision group="other">
      <origin rpy="0 1.57079632679 0" xyz="0.02 0 -0.005"/>
      <geometry>
        <cylinder length="0.05" radius="0.038"/>
      </geometry>
    </collision>
    <collision group="other">
      <origin rpy="0 0 0.37" xyz="0.11 -0.01 -0.005"/>
      <geometry>
        <box size="0.09 .03 .06"/>
      </geometry>
    </collision>
    <collision group="other">
      <origin rpy="0 0 0.37" xyz="0.09 0.02 -0.005"/>
      <geometry>
        <box size="0.09 .03 .06"/>
      </geometry>
    </collision>
    <collision group="other">
      <origin rpy="0 0 0.37" xyz="0.060 0.05 -0.005"/>
      <geometry>
        <box size="0.09 .03 .06"/>
      </geometry>
    </collision>
    <collision group="other">
      <origin rpy="0 0 0.79" xyz="0.044 -0.04 -0.005"/>
      <geometry>
        <box size="0.09 .03 .06"/>
      </geometry>
    </collision>
    <!--   end simple shape approximation of palm -->
    <!-- begin visual shape approximation of palm -->
    <visual>
      <origin rpy="0 1.57079632679 -0.9" xyz="0.069 0.016 0.038"/>
      <geometry>
        <cylinder length="0.100" radius="0.013"/>
      </geometry>
      <material name="right_sandia_hand_skin">
        <color rgba="0.835 0.655 0.345 1.0"/>
      </material>
    </visual>
    <visual>
      <origin rpy="0.41 0 -0.9" xyz="0.064 0.008 0.021"/>
      <geometry>
        <box size="0.09 .035 .05"/>
      </geometry>
      <material name="right_sandia_hand_skin">
        <color rgba="0.835 0.655 0.345 1.0"/>
      </material>
    </visual>
    <visual>
      <origin rpy="0 1.57079632679 0" xyz="0.02 0 -0.005"/>
      <geometry>
        <cylinder length="0.05" radius="0.038"/>
      </geometry>
      <material name="right_sandia_hand_skin">
        <color rgba="0.835 0.655 0.345 1.0"/>
      </material>
    </visual>
    <visual>
      <origin rpy="0 0 0.37" xyz="0.11 -0.01 -0.005"/>
      <geometry>
        <box size="0.09 .03 .06"/>
      </geometry>
      <material name="right_sandia_hand_skin">
        <color rgba="0.835 0.655 0.345 1.0"/>
      </material>
    </visual>
    <visual>
      <origin rpy="0 0 0.37" xyz="0.09 0.02 -0.005"/>
      <geometry>
        <box size="0.09 .03 .06"/>
      </geometry>
      <material name="right_sandia_hand_skin">
        <color rgba="0.835 0.655 0.345 1.0"/>
      </material>
    </visual>
    <visual>
      <origin rpy="0 0 0.37" xyz="0.060 0.05 -0.005"/>
      <geometry>
        <box size="0.09 .03 .06"/>
      </geometry>
      <material name="right_sandia_hand_skin">
        <color rgba="0.835 0.655 0.345 1.0"/>
      </material>
    </visual>
    <visual>
      <origin rpy="0 0 0.79" xyz="0.044 -0.04 -0.005"/>
      <geometry>
        <box size="0.09 .03 .06"/>
      </geometry>
      <material name="right_sandia_hand_skin">
        <color rgba="0.835 0.655 0.345 1.0"/>
      </material>
    </visual>
    <!--   end visual shape approximation of palm -->
    <!-- begin collision mesh of f2 ->
      <collision group="default">
        <origin xyz="0 0 0" rpy="0 0 0"/>
        <geometry>
          <mesh filename="package://sandia_hand_description/meshes/palm.stl"/>
        </geometry>
      </collision>
      <!-   end collision mesh of f2 -->
    <!-- begin visual mesh of f2    ->
      <visual>
        <origin xyz="0 0 0" rpy="0 0 0"/>
        <geometry>
          <mesh filename="package://sandia_hand_description/meshes/palm.stl"/>
        </geometry>
        <material name="${side}_sandia_hand_skin">
          <color rgba="0.835 0.655 0.345 1.0"/>
        </material>
      </visual>
      <!-   end visual mesh of f2 -->
  </link>
  <joint name="right_sandia_hand_joint" type="fixed">
    <parent link="r_hand"/>
    <child link="right_palm"/>
    <origin rpy="-1.57079 0 -1.57079" xyz="0 -0.1 0"/>
  </joint>
  <link name="right_f0_base">
    <origin rpy="0 0 0" xyz="0 0 0"/>
    <inertial>
      <!-- total mass is 2.303 kg, palm is about 1.303 kg, distribute the rest into _base -->
      <mass value="0.250"/>
      <!-- (2.303 - 1.303) / 4 -->
      <origin xyz="0 0 0"/>
      <!-- model as sphere with radius of 1cm -->
      <inertia ixx="0.00001" ixy="0" ixz="0" iyy="0.00001" iyz="0" izz="0.00001"/>
    </inertial>
  </link>
  <link name="right_f0_fixed_accel">
    <origin rpy="0 0 0" xyz="0 0 0"/>
    <inertial>
      <mass value="0.01"/>
      <origin xyz="0 0 0"/>
      <inertia ixx="0.000001" ixy="0" ixz="0" iyy="0.000001" iyz="0" izz="0.000001"/>
    </inertial>
  </link>
  <link name="right_f0_0">
    <origin rpy="0 0 0" xyz="0 0 0"/>
    <inertial>
      <mass value="0.106"/>
      <!-- F1 -->
      <origin xyz="0 0 0"/>
      <!-- solid cylinder -->
      <inertia ixx="0.000011925" ixy="0" ixz="0" iyy="0.00011505" iyz="0" izz="0.00011505"/>
    </inertial>
    <!-- begin simple shape approximation of f0 -->
    <collision group="default">
      <origin rpy="0 0 0" xyz="0 0 0.003"/>
      <geometry>
        <cylinder length="0.023" radius="0.015"/>
      </geometry>
    </collision>
    <collision group="other">
      <origin rpy="1.57079632679 0 0" xyz="0.011 0 0.003"/>
      <geometry>
        <cylinder length="0.023" radius="0.01"/>
      </geometry>
    </collision>
    <!--   end simple shape approximation of f0 -->
    <!-- begin visual shape approximation of f0 -->
    <visual>
      <origin rpy="0 0 0" xyz="0 0 0.003"/>
      <geometry>
        <cylinder length="0.023" radius="0.015"/>
      </geometry>
      <material name="right_sandia_hand_skin_suntan">
        <color rgba="0.7 0.4 0.2 1.0"/>
      </material>
    </visual>
    <visual>
      <origin rpy="1.57079632679 0 0" xyz="0.011 0 0.003"/>
      <geometry>
        <cylinder length="0.023" radius="0.01"/>
      </geometry>
      <material name="right_sandia_hand_skin_suntan">
        <color rgba="0.7 0.4 0.2 1.0"/>
      </material>
    </visual>
    <!--   end visual shape approximation of f0 -->
    <!-- begin collision mesh of f0 ->
      <collision group="default">
        <origin xyz="0 0 0" rpy="0 0 0"/>
        <geometry>
          <mesh filename="package://sandia_hand_description/meshes/f0.stl"/>
        </geometry>
      </collision>
      <!-   end collision mesh of f0 -->
    <!-- begin visual mesh of f0 ->
      <visual>
        <origin xyz="0 0 0" rpy="0 0 0"/>
        <geometry>
          <mesh filename="package://sandia_hand_description/meshes/f0.stl"/>
        </geometry>
        <material name="${side}_sandia_hand_skin_suntan">
          <color rgba="0.7 0.4 0.2 1.0"/>
        </material>
      </visual>
      <!-   end visual mesh of f0 -->
  </link>
  <link name="right_f0_1">
    <origin rpy="0 0 0" xyz="0 0 0"/>
    <inertial>
      <mass value="0.033"/>
      <!-- F2 -->
      <origin xyz="0 0 0"/>
      <!-- solid cylinder -->
      <inertia ixx="0.00000165" ixy="0" ixz="0" iyy="0.00001316975" iyz="0" izz="0.00001316975"/>
    </inertial>
    <!-- begin simple shape approximation of f1 -->
    <collision group="default">
      <origin rpy="0 1.57079632679 0" xyz="0.024 0 0"/>
      <geometry>
        <cylinder length="0.067" radius="0.01"/>
      </geometry>
    </collision>
    <!--   end simple shape approximation of f1 -->
    <!-- begin visual shape approximation of f1 -->
    <visual>
      <origin rpy="0 1.57079632679 0" xyz="0.024 0 0"/>
      <geometry>
        <cylinder length="0.067" radius="0.01"/>
      </geometry>
      <material name="right_sandia_hand_skin">
        <color rgba="0.835 0.655 0.345 1.0"/>
      </material>
    </visual>
    <!--   end visual shape approximation of f1 -->
    <!-- begin collision mesh of f1 ->
      <collision group="default">
        <origin xyz="0 0 0" rpy="0 0 0"/>
        <geometry>
          <mesh filename="package://sandia_hand_description/meshes/f1.stl"/>
        </geometry>
      </collision>
      <!-   end collision mesh of f1 -->
    <!-- begin visual mesh of f1 ->
      <visual>
        <origin xyz="0 0 0" rpy="0 0 0"/>
        <geometry>
          <mesh filename="package://sandia_hand_description/meshes/f1.stl"/>
        </geometry>
        <material name="${side}_sandia_hand_skin">
          <color rgba="0.835 0.655 0.345 1.0"/>
        </material>
      </visual>
      <!-   end visual mesh of f1 -->
  </link>
  <link name="right_f0_1_accel">
    <origin rpy="0 0 0" xyz="0 0 0"/>
    <inertial>
      <mass value="0.01"/>
      <origin xyz="0 0 0"/>
      <inertia ixx="0.000001" ixy="0" ixz="0" iyy="0.000001" iyz="0" izz="0.000001"/>
    </inertial>
  </link>
  <link name="right_f0_2">
    <origin rpy="0 0 0" xyz="0 0 0"/>
    <inertial>
      <mass value="0.033"/>
      <!-- F3 -->
      <origin xyz="0 0 0"/>
      <!-- solid cylinder -->
      <inertia ixx="0.0000013365" ixy="0" ixz="0" iyy="0.000009603" iyz="0" izz="0.000009603"/>
    </inertial>
    <!-- begin simple shape approximation of f2 -->
    <collision group="default">
      <origin rpy="0 1.57079632679 0" xyz="0.024 0 0"/>
      <geometry>
        <cylinder length="0.057" radius="0.009"/>
      </geometry>
    </collision>
    <collision group="other">
      <origin rpy="0 0 0" xyz="0.052 0 0"/>
      <geometry>
        <sphere radius="0.009"/>
      </geometry>
    </collision>
    <!--   end simple shape approximation of f2 -->
    <!-- begin visual shape approximation of f2 -->
    <visual>
      <origin rpy="0 1.57079632679 0" xyz="0.024 0 0"/>
      <geometry>
        <cylinder length="0.057" radius="0.009"/>
      </geometry>
      <material name="right_sandia_hand_skin_suntan">
        <color rgba="0.8 0.6 0.3 1.0"/>
      </material>
    </visual>
    <visual>
      <origin rpy="0 0 0" xyz="0.052 0 0"/>
      <geometry>
        <sphere radius="0.009"/>
      </geometry>
      <material name="right_sandia_hand_skin_suntan">
        <color rgba="0.8 0.6 0.3 1.0"/>
      </material>
    </visual>
    <!-- begin collision mesh of f2    ->
      <collision group="default">
        <origin xyz="0 0 0" rpy="0 0 0"/>
        <geometry>
          <mesh filename="package://sandia_hand_description/meshes/f2.stl"/>
        </geometry>
      </collision>
      <!-   end collision mesh of f2 -->
    <!-- begin visual mesh of f2    ->
      <visual>
        <origin xyz="0 0 0" rpy="0 0 0"/>
        <geometry>
          <mesh filename="package://sandia_hand_description/meshes/f2.stl"/>
        </geometry>
        <material name="${side}_sandia_hand_skin_suntan">
          <color rgba="0.8 0.6 0.3 1.0"/>
        </material>
      </visual>
      <!-   end visual mesh of f2 -->
  </link>
  <link name="right_f0_2_accel">
    <origin rpy="0 0 0" xyz="0 0 0"/>
    <inertial>
      <mass value="0.01"/>
      <origin xyz="0 0 0"/>
      <inertia ixx="0.000001" ixy="0" ixz="0" iyy="0.000001" iyz="0" izz="0.000001"/>
    </inertial>
  </link>
  <joint name="right_f0_base" type="fixed">
    <parent link="right_palm"/>
    <child link="right_f0_base"/>
    <origin rpy="0 0 0.3" xyz="0.14 0.0 0"/>
  </joint>
  <joint name="right_f0_j0" type="revolute">
    <axis xyz="0 0 1"/>
    <parent link="right_f0_base"/>
    <child link="right_f0_0"/>
    <limit effort="11" lower="-1.57079632679" upper="1.57079632679" velocity="-1"/>
    <safety_controller k_position="1000.0" k_velocity="1000.0" soft_lower_limit="-11.57079" soft_upper_limit="11.57079"/>
    <dynamics damping="1.0"/>
    <origin rpy="0 0 0" xyz="0 0 0"/>
  </joint>
  <joint name="right_f0_j1" type="revolute">
    <axis xyz="0 0 1"/>
    <parent link="right_f0_0"/>
    <child link="right_f0_1"/>
    <limit effort="28" lower="-1.57079632679" upper="1.57079632679" velocity="-1"/>
    <safety_controller k_position="1000.0" k_velocity="1000.0" soft_lower_limit="-11.57079" soft_upper_limit="11.57079"/>
    <dynamics damping="1.0"/>
    <origin rpy="1.57079632679 0 0" xyz="0.028 0 0"/>
  </joint>
  <joint name="right_f0_j2" type="revolute">
    <axis xyz="0 0 1"/>
    <parent link="right_f0_1"/>
    <child link="right_f0_2"/>
    <origin rpy="0 0 0" xyz="0.05 0 0"/>
    <safety_controller k_position="1000.0" k_velocity="1000.0" soft_lower_limit="-11.57079" soft_upper_limit="11.57079"/>
    <dynamics damping="1.0"/>
    <limit effort="28" lower="-1.57079632679" upper="1.57079632679" velocity="-1"/>
  </joint>
  <joint name="right_f0_fixed_accel" type="fixed">
    <parent link="right_f0_base"/>
    <child link="right_f0_fixed_accel"/>
    <origin rpy="0 0 0" xyz="-0.05 0 0"/>
  </joint>
  <joint name="right_f0_1_accel" type="fixed">
    <parent link="right_f0_1"/>
    <child link="right_f0_1_accel"/>
    <origin rpy="-1.57079632679 0 0" xyz="0.03 0 0"/>
  </joint>
  <joint name="right_f0_2_accel" type="fixed">
    <parent link="right_f0_2"/>
    <child link="right_f0_2_accel"/>
    <origin rpy="-1.57079632679 0 0" xyz="0.04 0 0"/>
  </joint>
  <transmission name="right_f0_j0" type="pr2_mechanism_model/SimpleTransmission">
    <joint name="right_f0_j0"/>
    <actuator name="right_f0_j0_motor"/>
    <mechanicalReduction>1</mechanicalReduction>
  </transmission>
  <transmission name="right_f0_j1" type="pr2_mechanism_model/SimpleTransmission">
    <joint name="right_f0_j1"/>
    <actuator name="right_f0_j1_motor"/>
    <mechanicalReduction>1</mechanicalReduction>
  </transmission>
  <transmission name="right_f0_j2" type="pr2_mechanism_model/SimpleTransmission">
    <joint name="right_f0_j2"/>
    <actuator name="right_f0_j2_motor"/>
    <mechanicalReduction>1</mechanicalReduction>
  </transmission>
  <gazebo reference="right_f0_base">
    <mu1>0.9</mu1>
    <mu2>0.9</mu2>
    <kp>1000000.0</kp>
    <kd>1.0</kd>
    <maxVel>0.1</maxVel>
    <minDepth>0.001</minDepth>
    <material>Gazebo/FlatBlack</material>
  </gazebo>
  <gazebo reference="right_f0_0">
    <mu1>0.9</mu1>
    <mu2>0.9</mu2>
    <kp>1000000.0</kp>
    <kd>1.0</kd>
    <maxVel>0.1</maxVel>
    <minDepth>0.003</minDepth>
    <maxContacts>1</maxContacts>
    <material>Gazebo/FlatBlack</material>
  </gazebo>
  <gazebo reference="right_f0_1">
    <mu1>0.9</mu1>
    <mu2>0.9</mu2>
    <kp>1000000.0</kp>
    <kd>1.0</kd>
    <maxVel>0.1</maxVel>
    <minDepth>0.003</minDepth>
    <maxContacts>1</maxContacts>
    <material>Gazebo/FlatBlack</material>
  </gazebo>
  <gazebo reference="right_f0_2">
    <mu1>0.9</mu1>
    <mu2>0.9</mu2>
    <kp>1000000.0</kp>
    <kd>1.0</kd>
    <maxVel>0.1</maxVel>
    <minDepth>0.003</minDepth>
    <maxContacts>1</maxContacts>
    <material>Gazebo/FlatBlack</material>
  </gazebo>
  <gazebo reference="right_f0_j0">
    <cfmDamping>1</cfmDamping>
  </gazebo>
  <gazebo reference="right_f0_j1">
    <cfmDamping>1</cfmDamping>
  </gazebo>
  <gazebo reference="right_f0_j2">
    <cfmDamping>1</cfmDamping>
  </gazebo>
  <link name="right_f1_base">
    <origin rpy="0 0 0" xyz="0 0 0"/>
    <inertial>
      <!-- total mass is 2.303 kg, palm is about 1.303 kg, distribute the rest into _base -->
      <mass value="0.250"/>
      <!-- (2.303 - 1.303) / 4 -->
      <origin xyz="0 0 0"/>
      <!-- model as sphere with radius of 1cm -->
      <inertia ixx="0.00001" ixy="0" ixz="0" iyy="0.00001" iyz="0" izz="0.00001"/>
    </inertial>
  </link>
  <link name="right_f1_fixed_accel">
    <origin rpy="0 0 0" xyz="0 0 0"/>
    <inertial>
      <mass value="0.01"/>
      <origin xyz="0 0 0"/>
      <inertia ixx="0.000001" ixy="0" ixz="0" iyy="0.000001" iyz="0" izz="0.000001"/>
    </inertial>
  </link>
  <link name="right_f1_0">
    <origin rpy="0 0 0" xyz="0 0 0"/>
    <inertial>
      <mass value="0.106"/>
      <!-- F1 -->
      <origin xyz="0 0 0"/>
      <!-- solid cylinder -->
      <inertia ixx="0.000011925" ixy="0" ixz="0" iyy="0.00011505" iyz="0" izz="0.00011505"/>
    </inertial>
    <!-- begin simple shape approximation of f0 -->
    <collision group="default">
      <origin rpy="0 0 0" xyz="0 0 0.003"/>
      <geometry>
        <cylinder length="0.023" radius="0.015"/>
      </geometry>
    </collision>
    <collision group="other">
      <origin rpy="1.57079632679 0 0" xyz="0.011 0 0.003"/>
      <geometry>
        <cylinder length="0.023" radius="0.01"/>
      </geometry>
    </collision>
    <!--   end simple shape approximation of f0 -->
    <!-- begin visual shape approximation of f0 -->
    <visual>
      <origin rpy="0 0 0" xyz="0 0 0.003"/>
      <geometry>
        <cylinder length="0.023" radius="0.015"/>
      </geometry>
      <material name="right_sandia_hand_skin_suntan">
        <color rgba="0.7 0.4 0.2 1.0"/>
      </material>
    </visual>
    <visual>
      <origin rpy="1.57079632679 0 0" xyz="0.011 0 0.003"/>
      <geometry>
        <cylinder length="0.023" radius="0.01"/>
      </geometry>
      <material name="right_sandia_hand_skin_suntan">
        <color rgba="0.7 0.4 0.2 1.0"/>
      </material>
    </visual>
    <!--   end visual shape approximation of f0 -->
    <!-- begin collision mesh of f0 ->
      <collision group="default">
        <origin xyz="0 0 0" rpy="0 0 0"/>
        <geometry>
          <mesh filename="package://sandia_hand_description/meshes/f0.stl"/>
        </geometry>
      </collision>
      <!-   end collision mesh of f0 -->
    <!-- begin visual mesh of f0 ->
      <visual>
        <origin xyz="0 0 0" rpy="0 0 0"/>
        <geometry>
          <mesh filename="package://sandia_hand_description/meshes/f0.stl"/>
        </geometry>
        <material name="${side}_sandia_hand_skin_suntan">
          <color rgba="0.7 0.4 0.2 1.0"/>
        </material>
      </visual>
      <!-   end visual mesh of f0 -->
  </link>
  <link name="right_f1_1">
    <origin rpy="0 0 0" xyz="0 0 0"/>
    <inertial>
      <mass value="0.033"/>
      <!-- F2 -->
      <origin xyz="0 0 0"/>
      <!-- solid cylinder -->
      <inertia ixx="0.00000165" ixy="0" ixz="0" iyy="0.00001316975" iyz="0" izz="0.00001316975"/>
    </inertial>
    <!-- begin simple shape approximation of f1 -->
    <collision group="default">
      <origin rpy="0 1.57079632679 0" xyz="0.024 0 0"/>
      <geometry>
        <cylinder length="0.067" radius="0.01"/>
      </geometry>
    </collision>
    <!--   end simple shape approximation of f1 -->
    <!-- begin visual shape approximation of f1 -->
    <visual>
      <origin rpy="0 1.57079632679 0" xyz="0.024 0 0"/>
      <geometry>
        <cylinder length="0.067" radius="0.01"/>
      </geometry>
      <material name="right_sandia_hand_skin">
        <color rgba="0.835 0.655 0.345 1.0"/>
      </material>
    </visual>
    <!--   end visual shape approximation of f1 -->
    <!-- begin collision mesh of f1 ->
      <collision group="default">
        <origin xyz="0 0 0" rpy="0 0 0"/>
        <geometry>
          <mesh filename="package://sandia_hand_description/meshes/f1.stl"/>
        </geometry>
      </collision>
      <!-   end collision mesh of f1 -->
    <!-- begin visual mesh of f1 ->
      <visual>
        <origin xyz="0 0 0" rpy="0 0 0"/>
        <geometry>
          <mesh filename="package://sandia_hand_description/meshes/f1.stl"/>
        </geometry>
        <material name="${side}_sandia_hand_skin">
          <color rgba="0.835 0.655 0.345 1.0"/>
        </material>
      </visual>
      <!-   end visual mesh of f1 -->
  </link>
  <link name="right_f1_1_accel">
    <origin rpy="0 0 0" xyz="0 0 0"/>
    <inertial>
      <mass value="0.01"/>
      <origin xyz="0 0 0"/>
      <inertia ixx="0.000001" ixy="0" ixz="0" iyy="0.000001" iyz="0" izz="0.000001"/>
    </inertial>
  </link>
  <link name="right_f1_2">
    <origin rpy="0 0 0" xyz="0 0 0"/>
    <inertial>
      <mass value="0.033"/>
      <!-- F3 -->
      <origin xyz="0 0 0"/>
      <!-- solid cylinder -->
      <inertia ixx="0.0000013365" ixy="0" ixz="0" iyy="0.000009603" iyz="0" izz="0.000009603"/>
    </inertial>
    <!-- begin simple shape approximation of f2 -->
    <collision group="default">
      <origin rpy="0 1.57079632679 0" xyz="0.024 0 0"/>
      <geometry>
        <cylinder length="0.057" radius="0.009"/>
      </geometry>
    </collision>
    <collision group="other">
      <origin rpy="0 0 0" xyz="0.052 0 0"/>
      <geometry>
        <sphere radius="0.009"/>
      </geometry>
    </collision>
    <!--   end simple shape approximation of f2 -->
    <!-- begin visual shape approximation of f2 -->
    <visual>
      <origin rpy="0 1.57079632679 0" xyz="0.024 0 0"/>
      <geometry>
        <cylinder length="0.057" radius="0.009"/>
      </geometry>
      <material name="right_sandia_hand_skin_suntan">
        <color rgba="0.8 0.6 0.3 1.0"/>
      </material>
    </visual>
    <visual>
      <origin rpy="0 0 0" xyz="0.052 0 0"/>
      <geometry>
        <sphere radius="0.009"/>
      </geometry>
      <material name="right_sandia_hand_skin_suntan">
        <color rgba="0.8 0.6 0.3 1.0"/>
      </material>
    </visual>
    <!-- begin collision mesh of f2    ->
      <collision group="default">
        <origin xyz="0 0 0" rpy="0 0 0"/>
        <geometry>
          <mesh filename="package://sandia_hand_description/meshes/f2.stl"/>
        </geometry>
      </collision>
      <!-   end collision mesh of f2 -->
    <!-- begin visual mesh of f2    ->
      <visual>
        <origin xyz="0 0 0" rpy="0 0 0"/>
        <geometry>
          <mesh filename="package://sandia_hand_description/meshes/f2.stl"/>
        </geometry>
        <material name="${side}_sandia_hand_skin_suntan">
          <color rgba="0.8 0.6 0.3 1.0"/>
        </material>
      </visual>
      <!-   end visual mesh of f2 -->
  </link>
  <link name="right_f1_2_accel">
    <origin rpy="0 0 0" xyz="0 0 0"/>
    <inertial>
      <mass value="0.01"/>
      <origin xyz="0 0 0"/>
      <inertia ixx="0.000001" ixy="0" ixz="0" iyy="0.000001" iyz="0" izz="0.000001"/>
    </inertial>
  </link>
  <joint name="right_f1_base" type="fixed">
    <parent link="right_palm"/>
    <child link="right_f1_base"/>
    <origin rpy="0 0 0.3" xyz="0.115 0.03122 0"/>
  </joint>
  <joint name="right_f1_j0" type="revolute">
    <axis xyz="0 0 1"/>
    <parent link="right_f1_base"/>
    <child link="right_f1_0"/>
    <limit effort="11" lower="-1.57079632679" upper="1.57079632679" velocity="-1"/>
    <safety_controller k_position="1000.0" k_velocity="1000.0" soft_lower_limit="-11.57079" soft_upper_limit="11.57079"/>
    <dynamics damping="1.0"/>
    <origin rpy="0 0 0" xyz="0 0 0"/>
  </joint>
  <joint name="right_f1_j1" type="revolute">
    <axis xyz="0 0 1"/>
    <parent link="right_f1_0"/>
    <child link="right_f1_1"/>
    <limit effort="28" lower="-1.57079632679" upper="1.57079632679" velocity="-1"/>
    <safety_controller k_position="1000.0" k_velocity="1000.0" soft_lower_limit="-11.57079" soft_upper_limit="11.57079"/>
    <dynamics damping="1.0"/>
    <origin rpy="1.57079632679 0 0" xyz="0.028 0 0"/>
  </joint>
  <joint name="right_f1_j2" type="revolute">
    <axis xyz="0 0 1"/>
    <parent link="right_f1_1"/>
    <child link="right_f1_2"/>
    <origin rpy="0 0 0" xyz="0.05 0 0"/>
    <safety_controller k_position="1000.0" k_velocity="1000.0" soft_lower_limit="-11.57079" soft_upper_limit="11.57079"/>
    <dynamics damping="1.0"/>
    <limit effort="28" lower="-1.57079632679" upper="1.57079632679" velocity="-1"/>
  </joint>
  <joint name="right_f1_fixed_accel" type="fixed">
    <parent link="right_f1_base"/>
    <child link="right_f1_fixed_accel"/>
    <origin rpy="0 0 0" xyz="-0.05 0 0"/>
  </joint>
  <joint name="right_f1_1_accel" type="fixed">
    <parent link="right_f1_1"/>
    <child link="right_f1_1_accel"/>
    <origin rpy="-1.57079632679 0 0" xyz="0.03 0 0"/>
  </joint>
  <joint name="right_f1_2_accel" type="fixed">
    <parent link="right_f1_2"/>
    <child link="right_f1_2_accel"/>
    <origin rpy="-1.57079632679 0 0" xyz="0.04 0 0"/>
  </joint>
  <transmission name="right_f1_j0" type="pr2_mechanism_model/SimpleTransmission">
    <joint name="right_f1_j0"/>
    <actuator name="right_f1_j0_motor"/>
    <mechanicalReduction>1</mechanicalReduction>
  </transmission>
  <transmission name="right_f1_j1" type="pr2_mechanism_model/SimpleTransmission">
    <joint name="right_f1_j1"/>
    <actuator name="right_f1_j1_motor"/>
    <mechanicalReduction>1</mechanicalReduction>
  </transmission>
  <transmission name="right_f1_j2" type="pr2_mechanism_model/SimpleTransmission">
    <joint name="right_f1_j2"/>
    <actuator name="right_f1_j2_motor"/>
    <mechanicalReduction>1</mechanicalReduction>
  </transmission>
  <gazebo reference="right_f1_base">
    <mu1>0.9</mu1>
    <mu2>0.9</mu2>
    <kp>1000000.0</kp>
    <kd>1.0</kd>
    <maxVel>0.1</maxVel>
    <minDepth>0.001</minDepth>
    <material>Gazebo/FlatBlack</material>
  </gazebo>
  <gazebo reference="right_f1_0">
    <mu1>0.9</mu1>
    <mu2>0.9</mu2>
    <kp>1000000.0</kp>
    <kd>1.0</kd>
    <maxVel>0.1</maxVel>
    <minDepth>0.003</minDepth>
    <maxContacts>1</maxContacts>
    <material>Gazebo/FlatBlack</material>
  </gazebo>
  <gazebo reference="right_f1_1">
    <mu1>0.9</mu1>
    <mu2>0.9</mu2>
    <kp>1000000.0</kp>
    <kd>1.0</kd>
    <maxVel>0.1</maxVel>
    <minDepth>0.003</minDepth>
    <maxContacts>1</maxContacts>
    <material>Gazebo/FlatBlack</material>
  </gazebo>
  <gazebo reference="right_f1_2">
    <mu1>0.9</mu1>
    <mu2>0.9</mu2>
    <kp>1000000.0</kp>
    <kd>1.0</kd>
    <maxVel>0.1</maxVel>
    <minDepth>0.003</minDepth>
    <maxContacts>1</maxContacts>
    <material>Gazebo/FlatBlack</material>
  </gazebo>
  <gazebo reference="right_f1_j0">
    <cfmDamping>1</cfmDamping>
  </gazebo>
  <gazebo reference="right_f1_j1">
    <cfmDamping>1</cfmDamping>
  </gazebo>
  <gazebo reference="right_f1_j2">
    <cfmDamping>1</cfmDamping>
  </gazebo>
  <link name="right_f2_base">
    <origin rpy="0 0 0" xyz="0 0 0"/>
    <inertial>
      <!-- total mass is 2.303 kg, palm is about 1.303 kg, distribute the rest into _base -->
      <mass value="0.250"/>
      <!-- (2.303 - 1.303) / 4 -->
      <origin xyz="0 0 0"/>
      <!-- model as sphere with radius of 1cm -->
      <inertia ixx="0.00001" ixy="0" ixz="0" iyy="0.00001" iyz="0" izz="0.00001"/>
    </inertial>
  </link>
  <link name="right_f2_fixed_accel">
    <origin rpy="0 0 0" xyz="0 0 0"/>
    <inertial>
      <mass value="0.01"/>
      <origin xyz="0 0 0"/>
      <inertia ixx="0.000001" ixy="0" ixz="0" iyy="0.000001" iyz="0" izz="0.000001"/>
    </inertial>
  </link>
  <link name="right_f2_0">
    <origin rpy="0 0 0" xyz="0 0 0"/>
    <inertial>
      <mass value="0.106"/>
      <!-- F1 -->
      <origin xyz="0 0 0"/>
      <!-- solid cylinder -->
      <inertia ixx="0.000011925" ixy="0" ixz="0" iyy="0.00011505" iyz="0" izz="0.00011505"/>
    </inertial>
    <!-- begin simple shape approximation of f0 -->
    <collision group="default">
      <origin rpy="0 0 0" xyz="0 0 0.003"/>
      <geometry>
        <cylinder length="0.023" radius="0.015"/>
      </geometry>
    </collision>
    <collision group="other">
      <origin rpy="1.57079632679 0 0" xyz="0.011 0 0.003"/>
      <geometry>
        <cylinder length="0.023" radius="0.01"/>
      </geometry>
    </collision>
    <!--   end simple shape approximation of f0 -->
    <!-- begin visual shape approximation of f0 -->
    <visual>
      <origin rpy="0 0 0" xyz="0 0 0.003"/>
      <geometry>
        <cylinder length="0.023" radius="0.015"/>
      </geometry>
      <material name="right_sandia_hand_skin_suntan">
        <color rgba="0.7 0.4 0.2 1.0"/>
      </material>
    </visual>
    <visual>
      <origin rpy="1.57079632679 0 0" xyz="0.011 0 0.003"/>
      <geometry>
        <cylinder length="0.023" radius="0.01"/>
      </geometry>
      <material name="right_sandia_hand_skin_suntan">
        <color rgba="0.7 0.4 0.2 1.0"/>
      </material>
    </visual>
    <!--   end visual shape approximation of f0 -->
    <!-- begin collision mesh of f0 ->
      <collision group="default">
        <origin xyz="0 0 0" rpy="0 0 0"/>
        <geometry>
          <mesh filename="package://sandia_hand_description/meshes/f0.stl"/>
        </geometry>
      </collision>
      <!-   end collision mesh of f0 -->
    <!-- begin visual mesh of f0 ->
      <visual>
        <origin xyz="0 0 0" rpy="0 0 0"/>
        <geometry>
          <mesh filename="package://sandia_hand_description/meshes/f0.stl"/>
        </geometry>
        <material name="${side}_sandia_hand_skin_suntan">
          <color rgba="0.7 0.4 0.2 1.0"/>
        </material>
      </visual>
      <!-   end visual mesh of f0 -->
  </link>
  <link name="right_f2_1">
    <origin rpy="0 0 0" xyz="0 0 0"/>
    <inertial>
      <mass value="0.033"/>
      <!-- F2 -->
      <origin xyz="0 0 0"/>
      <!-- solid cylinder -->
      <inertia ixx="0.00000165" ixy="0" ixz="0" iyy="0.00001316975" iyz="0" izz="0.00001316975"/>
    </inertial>
    <!-- begin simple shape approximation of f1 -->
    <collision group="default">
      <origin rpy="0 1.57079632679 0" xyz="0.024 0 0"/>
      <geometry>
        <cylinder length="0.067" radius="0.01"/>
      </geometry>
    </collision>
    <!--   end simple shape approximation of f1 -->
    <!-- begin visual shape approximation of f1 -->
    <visual>
      <origin rpy="0 1.57079632679 0" xyz="0.024 0 0"/>
      <geometry>
        <cylinder length="0.067" radius="0.01"/>
      </geometry>
      <material name="right_sandia_hand_skin">
        <color rgba="0.835 0.655 0.345 1.0"/>
      </material>
    </visual>
    <!--   end visual shape approximation of f1 -->
    <!-- begin collision mesh of f1 ->
      <collision group="default">
        <origin xyz="0 0 0" rpy="0 0 0"/>
        <geometry>
          <mesh filename="package://sandia_hand_description/meshes/f1.stl"/>
        </geometry>
      </collision>
      <!-   end collision mesh of f1 -->
    <!-- begin visual mesh of f1 ->
      <visual>
        <origin xyz="0 0 0" rpy="0 0 0"/>
        <geometry>
          <mesh filename="package://sandia_hand_description/meshes/f1.stl"/>
        </geometry>
        <material name="${side}_sandia_hand_skin">
          <color rgba="0.835 0.655 0.345 1.0"/>
        </material>
      </visual>
      <!-   end visual mesh of f1 -->
  </link>
  <link name="right_f2_1_accel">
    <origin rpy="0 0 0" xyz="0 0 0"/>
    <inertial>
      <mass value="0.01"/>
      <origin xyz="0 0 0"/>
      <inertia ixx="0.000001" ixy="0" ixz="0" iyy="0.000001" iyz="0" izz="0.000001"/>
    </inertial>
  </link>
  <link name="right_f2_2">
    <origin rpy="0 0 0" xyz="0 0 0"/>
    <inertial>
      <mass value="0.033"/>
      <!-- F3 -->
      <origin xyz="0 0 0"/>
      <!-- solid cylinder -->
      <inertia ixx="0.0000013365" ixy="0" ixz="0" iyy="0.000009603" iyz="0" izz="0.000009603"/>
    </inertial>
    <!-- begin simple shape approximation of f2 -->
    <collision group="default">
      <origin rpy="0 1.57079632679 0" xyz="0.024 0 0"/>
      <geometry>
        <cylinder length="0.057" radius="0.009"/>
      </geometry>
    </collision>
    <collision group="other">
      <origin rpy="0 0 0" xyz="0.052 0 0"/>
      <geometry>
        <sphere radius="0.009"/>
      </geometry>
    </collision>
    <!--   end simple shape approximation of f2 -->
    <!-- begin visual shape approximation of f2 -->
    <visual>
      <origin rpy="0 1.57079632679 0" xyz="0.024 0 0"/>
      <geometry>
        <cylinder length="0.057" radius="0.009"/>
      </geometry>
      <material name="right_sandia_hand_skin_suntan">
        <color rgba="0.8 0.6 0.3 1.0"/>
      </material>
    </visual>
    <visual>
      <origin rpy="0 0 0" xyz="0.052 0 0"/>
      <geometry>
        <sphere radius="0.009"/>
      </geometry>
      <material name="right_sandia_hand_skin_suntan">
        <color rgba="0.8 0.6 0.3 1.0"/>
      </material>
    </visual>
    <!-- begin collision mesh of f2    ->
      <collision group="default">
        <origin xyz="0 0 0" rpy="0 0 0"/>
        <geometry>
          <mesh filename="package://sandia_hand_description/meshes/f2.stl"/>
        </geometry>
      </collision>
      <!-   end collision mesh of f2 -->
    <!-- begin visual mesh of f2    ->
      <visual>
        <origin xyz="0 0 0" rpy="0 0 0"/>
        <geometry>
          <mesh filename="package://sandia_hand_description/meshes/f2.stl"/>
        </geometry>
        <material name="${side}_sandia_hand_skin_suntan">
          <color rgba="0.8 0.6 0.3 1.0"/>
        </material>
      </visual>
      <!-   end visual mesh of f2 -->
  </link>
  <link name="right_f2_2_accel">
    <origin rpy="0 0 0" xyz="0 0 0"/>
    <inertial>
      <mass value="0.01"/>
      <origin xyz="0 0 0"/>
      <inertia ixx="0.000001" ixy="0" ixz="0" iyy="0.000001" iyz="0" izz="0.000001"/>
    </inertial>
  </link>
  <joint name="right_f2_base" type="fixed">
    <parent link="right_palm"/>
    <child link="right_f2_base"/>
    <origin rpy="0 0 0.3" xyz="0.09 0.06245 0"/>
  </joint>
  <joint name="right_f2_j0" type="revolute">
    <axis xyz="0 0 1"/>
    <parent link="right_f2_base"/>
    <child link="right_f2_0"/>
    <limit effort="11" lower="-1.57079632679" upper="1.57079632679" velocity="-1"/>
    <safety_controller k_position="1000.0" k_velocity="1000.0" soft_lower_limit="-11.57079" soft_upper_limit="11.57079"/>
    <dynamics damping="1.0"/>
    <origin rpy="0 0 0" xyz="0 0 0"/>
  </joint>
  <joint name="right_f2_j1" type="revolute">
    <axis xyz="0 0 1"/>
    <parent link="right_f2_0"/>
    <child link="right_f2_1"/>
    <limit effort="28" lower="-1.57079632679" upper="1.57079632679" velocity="-1"/>
    <safety_controller k_position="1000.0" k_velocity="1000.0" soft_lower_limit="-11.57079" soft_upper_limit="11.57079"/>
    <dynamics damping="1.0"/>
    <origin rpy="1.57079632679 0 0" xyz="0.028 0 0"/>
  </joint>
  <joint name="right_f2_j2" type="revolute">
    <axis xyz="0 0 1"/>
    <parent link="right_f2_1"/>
    <child link="right_f2_2"/>
    <origin rpy="0 0 0" xyz="0.05 0 0"/>
    <safety_controller k_position="1000.0" k_velocity="1000.0" soft_lower_limit="-11.57079" soft_upper_limit="11.57079"/>
    <dynamics damping="1.0"/>
    <limit effort="28" lower="-1.57079632679" upper="1.57079632679" velocity="-1"/>
  </joint>
  <joint name="right_f2_fixed_accel" type="fixed">
    <parent link="right_f2_base"/>
    <child link="right_f2_fixed_accel"/>
    <origin rpy="0 0 0" xyz="-0.05 0 0"/>
  </joint>
  <joint name="right_f2_1_accel" type="fixed">
    <parent link="right_f2_1"/>
    <child link="right_f2_1_accel"/>
    <origin rpy="-1.57079632679 0 0" xyz="0.03 0 0"/>
  </joint>
  <joint name="right_f2_2_accel" type="fixed">
    <parent link="right_f2_2"/>
    <child link="right_f2_2_accel"/>
    <origin rpy="-1.57079632679 0 0" xyz="0.04 0 0"/>
  </joint>
  <transmission name="right_f2_j0" type="pr2_mechanism_model/SimpleTransmission">
    <joint name="right_f2_j0"/>
    <actuator name="right_f2_j0_motor"/>
    <mechanicalReduction>1</mechanicalReduction>
  </transmission>
  <transmission name="right_f2_j1" type="pr2_mechanism_model/SimpleTransmission">
    <joint name="right_f2_j1"/>
    <actuator name="right_f2_j1_motor"/>
    <mechanicalReduction>1</mechanicalReduction>
  </transmission>
  <transmission name="right_f2_j2" type="pr2_mechanism_model/SimpleTransmission">
    <joint name="right_f2_j2"/>
    <actuator name="right_f2_j2_motor"/>
    <mechanicalReduction>1</mechanicalReduction>
  </transmission>
  <gazebo reference="right_f2_base">
    <mu1>0.9</mu1>
    <mu2>0.9</mu2>
    <kp>1000000.0</kp>
    <kd>1.0</kd>
    <maxVel>0.1</maxVel>
    <minDepth>0.001</minDepth>
    <material>Gazebo/FlatBlack</material>
  </gazebo>
  <gazebo reference="right_f2_0">
    <mu1>0.9</mu1>
    <mu2>0.9</mu2>
    <kp>1000000.0</kp>
    <kd>1.0</kd>
    <maxVel>0.1</maxVel>
    <minDepth>0.003</minDepth>
    <maxContacts>1</maxContacts>
    <material>Gazebo/FlatBlack</material>
  </gazebo>
  <gazebo reference="right_f2_1">
    <mu1>0.9</mu1>
    <mu2>0.9</mu2>
    <kp>1000000.0</kp>
    <kd>1.0</kd>
    <maxVel>0.1</maxVel>
    <minDepth>0.003</minDepth>
    <maxContacts>1</maxContacts>
    <material>Gazebo/FlatBlack</material>
  </gazebo>
  <gazebo reference="right_f2_2">
    <mu1>0.9</mu1>
    <mu2>0.9</mu2>
    <kp>1000000.0</kp>
    <kd>1.0</kd>
    <maxVel>0.1</maxVel>
    <minDepth>0.003</minDepth>
    <maxContacts>1</maxContacts>
    <material>Gazebo/FlatBlack</material>
  </gazebo>
  <gazebo reference="right_f2_j0">
    <cfmDamping>1</cfmDamping>
  </gazebo>
  <gazebo reference="right_f2_j1">
    <cfmDamping>1</cfmDamping>
  </gazebo>
  <gazebo reference="right_f2_j2">
    <cfmDamping>1</cfmDamping>
  </gazebo>
  <link name="right_f3_base">
    <origin rpy="0 0 0" xyz="0 0 0"/>
    <inertial>
      <!-- total mass is 2.303 kg, palm is about 1.303 kg, distribute the rest into _base -->
      <mass value="0.250"/>
      <!-- (2.303 - 1.303) / 4 -->
      <origin xyz="0 0 0"/>
      <!-- model as sphere with radius of 1cm -->
      <inertia ixx="0.00001" ixy="0" ixz="0" iyy="0.00001" iyz="0" izz="0.00001"/>
    </inertial>
  </link>
  <link name="right_f3_fixed_accel">
    <origin rpy="0 0 0" xyz="0 0 0"/>
    <inertial>
      <mass value="0.01"/>
      <origin xyz="0 0 0"/>
      <inertia ixx="0.000001" ixy="0" ixz="0" iyy="0.000001" iyz="0" izz="0.000001"/>
    </inertial>
  </link>
  <link name="right_f3_0">
    <origin rpy="0 0 0" xyz="0 0 0"/>
    <inertial>
      <mass value="0.106"/>
      <!-- F1 -->
      <origin xyz="0 0 0"/>
      <!-- solid cylinder -->
      <inertia ixx="0.000011925" ixy="0" ixz="0" iyy="0.00011505" iyz="0" izz="0.00011505"/>
    </inertial>
    <!-- begin simple shape approximation of f0 -->
    <collision group="default">
      <origin rpy="0 0 0" xyz="0 0 0.003"/>
      <geometry>
        <cylinder length="0.023" radius="0.015"/>
      </geometry>
    </collision>
    <collision group="other">
      <origin rpy="1.57079632679 0 0" xyz="0.011 0 0.003"/>
      <geometry>
        <cylinder length="0.023" radius="0.01"/>
      </geometry>
    </collision>
    <!--   end simple shape approximation of f0 -->
    <!-- begin visual shape approximation of f0 -->
    <visual>
      <origin rpy="0 0 0" xyz="0 0 0.003"/>
      <geometry>
        <cylinder length="0.023" radius="0.015"/>
      </geometry>
      <material name="right_sandia_hand_skin_suntan">
        <color rgba="0.7 0.4 0.2 1.0"/>
      </material>
    </visual>
    <visual>
      <origin rpy="1.57079632679 0 0" xyz="0.011 0 0.003"/>
      <geometry>
        <cylinder length="0.023" radius="0.01"/>
      </geometry>
      <material name="right_sandia_hand_skin_suntan">
        <color rgba="0.7 0.4 0.2 1.0"/>
      </material>
    </visual>
    <!--   end visual shape approximation of f0 -->
    <!-- begin collision mesh of f0 ->
      <collision group="default">
        <origin xyz="0 0 0" rpy="0 0 0"/>
        <geometry>
          <mesh filename="package://sandia_hand_description/meshes/f0.stl"/>
        </geometry>
      </collision>
      <!-   end collision mesh of f0 -->
    <!-- begin visual mesh of f0 ->
      <visual>
        <origin xyz="0 0 0" rpy="0 0 0"/>
        <geometry>
          <mesh filename="package://sandia_hand_description/meshes/f0.stl"/>
        </geometry>
        <material name="${side}_sandia_hand_skin_suntan">
          <color rgba="0.7 0.4 0.2 1.0"/>
        </material>
      </visual>
      <!-   end visual mesh of f0 -->
  </link>
  <link name="right_f3_1">
    <origin rpy="0 0 0" xyz="0 0 0"/>
    <inertial>
      <mass value="0.033"/>
      <!-- F2 -->
      <origin xyz="0 0 0"/>
      <!-- solid cylinder -->
      <inertia ixx="0.00000165" ixy="0" ixz="0" iyy="0.00001316975" iyz="0" izz="0.00001316975"/>
    </inertial>
    <!-- begin simple shape approximation of f1 -->
    <collision group="default">
      <origin rpy="0 1.57079632679 0" xyz="0.024 0 0"/>
      <geometry>
        <cylinder length="0.067" radius="0.01"/>
      </geometry>
    </collision>
    <!--   end simple shape approximation of f1 -->
    <!-- begin visual shape approximation of f1 -->
    <visual>
      <origin rpy="0 1.57079632679 0" xyz="0.024 0 0"/>
      <geometry>
        <cylinder length="0.067" radius="0.01"/>
      </geometry>
      <material name="right_sandia_hand_skin">
        <color rgba="0.835 0.655 0.345 1.0"/>
      </material>
    </visual>
    <!--   end visual shape approximation of f1 -->
    <!-- begin collision mesh of f1 ->
      <collision group="default">
        <origin xyz="0 0 0" rpy="0 0 0"/>
        <geometry>
          <mesh filename="package://sandia_hand_description/meshes/f1.stl"/>
        </geometry>
      </collision>
      <!-   end collision mesh of f1 -->
    <!-- begin visual mesh of f1 ->
      <visual>
        <origin xyz="0 0 0" rpy="0 0 0"/>
        <geometry>
          <mesh filename="package://sandia_hand_description/meshes/f1.stl"/>
        </geometry>
        <material name="${side}_sandia_hand_skin">
          <color rgba="0.835 0.655 0.345 1.0"/>
        </material>
      </visual>
      <!-   end visual mesh of f1 -->
  </link>
  <link name="right_f3_1_accel">
    <origin rpy="0 0 0" xyz="0 0 0"/>
    <inertial>
      <mass value="0.01"/>
      <origin xyz="0 0 0"/>
      <inertia ixx="0.000001" ixy="0" ixz="0" iyy="0.000001" iyz="0" izz="0.000001"/>
    </inertial>
  </link>
  <link name="right_f3_2">
    <origin rpy="0 0 0" xyz="0 0 0"/>
    <inertial>
      <mass value="0.033"/>
      <!-- F3 -->
      <origin xyz="0 0 0"/>
      <!-- solid cylinder -->
      <inertia ixx="0.0000013365" ixy="0" ixz="0" iyy="0.000009603" iyz="0" izz="0.000009603"/>
    </inertial>
    <!-- begin simple shape approximation of f2 -->
    <collision group="default">
      <origin rpy="0 1.57079632679 0" xyz="0.024 0 0"/>
      <geometry>
        <cylinder length="0.057" radius="0.009"/>
      </geometry>
    </collision>
    <collision group="other">
      <origin rpy="0 0 0" xyz="0.052 0 0"/>
      <geometry>
        <sphere radius="0.009"/>
      </geometry>
    </collision>
    <!--   end simple shape approximation of f2 -->
    <!-- begin visual shape approximation of f2 -->
    <visual>
      <origin rpy="0 1.57079632679 0" xyz="0.024 0 0"/>
      <geometry>
        <cylinder length="0.057" radius="0.009"/>
      </geometry>
      <material name="right_sandia_hand_skin_suntan">
        <color rgba="0.8 0.6 0.3 1.0"/>
      </material>
    </visual>
    <visual>
      <origin rpy="0 0 0" xyz="0.052 0 0"/>
      <geometry>
        <sphere radius="0.009"/>
      </geometry>
      <material name="right_sandia_hand_skin_suntan">
        <color rgba="0.8 0.6 0.3 1.0"/>
      </material>
    </visual>
    <!-- begin collision mesh of f2    ->
      <collision group="default">
        <origin xyz="0 0 0" rpy="0 0 0"/>
        <geometry>
          <mesh filename="package://sandia_hand_description/meshes/f2.stl"/>
        </geometry>
      </collision>
      <!-   end collision mesh of f2 -->
    <!-- begin visual mesh of f2    ->
      <visual>
        <origin xyz="0 0 0" rpy="0 0 0"/>
        <geometry>
          <mesh filename="package://sandia_hand_description/meshes/f2.stl"/>
        </geometry>
        <material name="${side}_sandia_hand_skin_suntan">
          <color rgba="0.8 0.6 0.3 1.0"/>
        </material>
      </visual>
      <!-   end visual mesh of f2 -->
  </link>
  <link name="right_f3_2_accel">
    <origin rpy="0 0 0" xyz="0 0 0"/>
    <inertial>
      <mass value="0.01"/>
      <origin xyz="0 0 0"/>
      <inertia ixx="0.000001" ixy="0" ixz="0" iyy="0.000001" iyz="0" izz="0.000001"/>
    </inertial>
  </link>
  <joint name="right_f3_base" type="fixed">
    <parent link="right_palm"/>
    <child link="right_f3_base"/>
    <origin rpy="0 -1.57079632679 -2.3562" xyz="0.03995 -0.04383 0.014"/>
  </joint>
  <joint name="right_f3_j0" type="revolute">
    <axis xyz="0 0 1"/>
    <parent link="right_f3_base"/>
    <child link="right_f3_0"/>
    <limit effort="11" lower="-1.57079632679" upper="1.57079632679" velocity="-1"/>
    <safety_controller k_position="1000.0" k_velocity="1000.0" soft_lower_limit="-11.57079" soft_upper_limit="11.57079"/>
    <dynamics damping="1.0"/>
    <origin rpy="0 0 0" xyz="0 0 0"/>
  </joint>
  <joint name="right_f3_j1" type="revolute">
    <axis xyz="0 0 1"/>
    <parent link="right_f3_0"/>
    <child link="right_f3_1"/>
    <limit effort="28" lower="-1.57079632679" upper="1.57079632679" velocity="-1"/>
    <safety_controller k_position="1000.0" k_velocity="1000.0" soft_lower_limit="-11.57079" soft_upper_limit="11.57079"/>
    <dynamics damping="1.0"/>
    <origin rpy="1.57079632679 0 0" xyz="0.028 0 0"/>
  </joint>
  <joint name="right_f3_j2" type="revolute">
    <axis xyz="0 0 1"/>
    <parent link="right_f3_1"/>
    <child link="right_f3_2"/>
    <origin rpy="0 0 0" xyz="0.05 0 0"/>
    <safety_controller k_position="1000.0" k_velocity="1000.0" soft_lower_limit="-11.57079" soft_upper_limit="11.57079"/>
    <dynamics damping="1.0"/>
    <limit effort="28" lower="-1.57079632679" upper="1.57079632679" velocity="-1"/>
  </joint>
  <joint name="right_f3_fixed_accel" type="fixed">
    <parent link="right_f3_base"/>
    <child link="right_f3_fixed_accel"/>
    <origin rpy="0 0 0" xyz="-0.05 0 0"/>
  </joint>
  <joint name="right_f3_1_accel" type="fixed">
    <parent link="right_f3_1"/>
    <child link="right_f3_1_accel"/>
    <origin rpy="-1.57079632679 0 0" xyz="0.03 0 0"/>
  </joint>
  <joint name="right_f3_2_accel" type="fixed">
    <parent link="right_f3_2"/>
    <child link="right_f3_2_accel"/>
    <origin rpy="-1.57079632679 0 0" xyz="0.04 0 0"/>
  </joint>
  <transmission name="right_f3_j0" type="pr2_mechanism_model/SimpleTransmission">
    <joint name="right_f3_j0"/>
    <actuator name="right_f3_j0_motor"/>
    <mechanicalReduction>1</mechanicalReduction>
  </transmission>
  <transmission name="right_f3_j1" type="pr2_mechanism_model/SimpleTransmission">
    <joint name="right_f3_j1"/>
    <actuator name="right_f3_j1_motor"/>
    <mechanicalReduction>1</mechanicalReduction>
  </transmission>
  <transmission name="right_f3_j2" type="pr2_mechanism_model/SimpleTransmission">
    <joint name="right_f3_j2"/>
    <actuator name="right_f3_j2_motor"/>
    <mechanicalReduction>1</mechanicalReduction>
  </transmission>
  <gazebo reference="right_f3_base">
    <mu1>0.9</mu1>
    <mu2>0.9</mu2>
    <kp>1000000.0</kp>
    <kd>1.0</kd>
    <maxVel>0.1</maxVel>
    <minDepth>0.001</minDepth>
    <material>Gazebo/FlatBlack</material>
  </gazebo>
  <gazebo reference="right_f3_0">
    <mu1>0.9</mu1>
    <mu2>0.9</mu2>
    <kp>1000000.0</kp>
    <kd>1.0</kd>
    <maxVel>0.1</maxVel>
    <minDepth>0.003</minDepth>
    <maxContacts>1</maxContacts>
    <material>Gazebo/FlatBlack</material>
  </gazebo>
  <gazebo reference="right_f3_1">
    <mu1>0.9</mu1>
    <mu2>0.9</mu2>
    <kp>1000000.0</kp>
    <kd>1.0</kd>
    <maxVel>0.1</maxVel>
    <minDepth>0.003</minDepth>
    <maxContacts>1</maxContacts>
    <material>Gazebo/FlatBlack</material>
  </gazebo>
  <gazebo reference="right_f3_2">
    <mu1>0.9</mu1>
    <mu2>0.9</mu2>
    <kp>1000000.0</kp>
    <kd>1.0</kd>
    <maxVel>0.1</maxVel>
    <minDepth>0.003</minDepth>
    <maxContacts>1</maxContacts>
    <material>Gazebo/FlatBlack</material>
  </gazebo>
  <gazebo reference="right_f3_j0">
    <cfmDamping>1</cfmDamping>
  </gazebo>
  <gazebo reference="right_f3_j1">
    <cfmDamping>1</cfmDamping>
  </gazebo>
  <gazebo reference="right_f3_j2">
    <cfmDamping>1</cfmDamping>
  </gazebo>
  <gazebo reference="right_palm">
    <mu1>0.9</mu1>
    <mu2>0.9</mu2>
    <material>Gazebo/FlatBlack</material>
  </gazebo>
  <joint name="right_palm_left_camera_frame_joint" type="fixed">
    <origin rpy="0.6708 -1.57079632679 3.14159265359" xyz="0.0683774130138 0.0138342911048 0.025"/>
    <parent link="right_palm"/>
    <child link="right_palm_left_camera_frame"/>
  </joint>
  <link name="right_palm_left_camera_frame">
    <inertial>
      <mass value="0.01"/>
      <origin xyz="0 0 0"/>
      <inertia ixx="0.0001" ixy="0.0" ixz="0.0" iyy="0.0001" iyz="0.0" izz="0.0001"/>
    </inertial>
    <visual group="default">
      <origin rpy="0 0 0" xyz="0 0 0"/>
      <geometry>
        <box size="0.003 0.010 0.007"/>
      </geometry>
    </visual>
  </link>
  <joint name="right_palm_left_camera_optical_frame_joint" type="fixed">
    <origin rpy="-1.57079632679 0.0 -1.57079632679" xyz="0 0 0"/>
    <parent link="right_palm_left_camera_frame"/>
    <child link="right_palm_left_camera_optical_frame"/>
  </joint>
  <link name="right_palm_left_camera_optical_frame"/>
  <gazebo reference="right_palm_left_camera_frame">
    <sensor name="right_palm_stereo_camera" type="multicamera">
      <update_rate>60.0</update_rate>
      <camera name="left">
        <horizontal_fov>1.25663706144</horizontal_fov>
        <image>
          <width>752</width>
          <height>480</height>
          <format>L8</format>
        </image>
        <clip>
          <near>0.02</near>
          <far>100</far>
        </clip>
        <noise>
          <type>gaussian</type>
          <mean>0.0</mean>
          <stddev>0.007</stddev>
        </noise>
      </camera>
      <camera name="right">
        <pose>0 -0.04 0  0 0 0</pose>
        <horizontal_fov>1.25663706144</horizontal_fov>
        <image>
          <width>752</width>
          <height>480</height>
          <format>L8</format>
        </image>
        <clip>
          <near>0.02</near>
          <far>100</far>
        </clip>
        <noise>
          <type>gaussian</type>
          <mean>0.0</mean>
          <stddev>0.007</stddev>
        </noise>
      </camera>
      <plugin filename="libgazebo_ros_multicamera.so" name="stereo_camera_controller">
        <alwaysOn>true</alwaysOn>
        <updateRate>0.0</updateRate>
        <cameraName>sandia_hands/r_hand/camera</cameraName>
        <imageTopicName>image_raw</imageTopicName>
        <cameraInfoTopicName>camera_info</cameraInfoTopicName>
        <frameName>right_palm_left_camera_optical_frame</frameName>
        <hackBaseline>0.04</hackBaseline>
        <distortionK1>0.0</distortionK1>
        <distortionK2>0.0</distortionK2>
        <distortionK3>0.0</distortionK3>
        <distortionT1>0.0</distortionT1>
        <distortionT2>0.0</distortionT2>
      </plugin>
    </sensor>
  </gazebo>
  <joint name="right_palm_right_camera_frame_joint" type="fixed">
    <origin rpy="0.6708 -1.57079632679 3.14159265359" xyz="0.0435128991906 0.0451672761576 0.025"/>
    <parent link="right_palm"/>
    <child link="right_palm_right_camera_frame"/>
  </joint>
  <link name="right_palm_right_camera_frame">
    <inertial>
      <mass value="0.01"/>
      <origin xyz="0 0 0"/>
      <inertia ixx="0.0001" ixy="0.0" ixz="0.0" iyy="0.0001" iyz="0.0" izz="0.0001"/>
    </inertial>
    <visual group="default">
      <origin rpy="0 0 0" xyz="0 0 0"/>
      <geometry>
        <box size="0.003 0.010 0.007"/>
      </geometry>
    </visual>
  </link>
  <joint name="right_palm_right_camera_optical_frame_joint" type="fixed">
    <origin rpy="-1.57079632679 0.0 -1.57079632679" xyz="0 0 0"/>
    <parent link="right_palm_right_camera_frame"/>
    <child link="right_palm_right_camera_optical_frame"/>
  </joint>
  <link name="right_palm_right_camera_optical_frame"/>
  <gazebo>
    <plugin filename="libContactModelPlugin.so" name="sandia_contact_plugin">
      <contact>
        <collision>r_hand::r_hand_collision_right_palm</collision>
        <collision>r_hand::r_hand_collision_right_palm_1</collision>
        <collision>r_hand::r_hand_collision_right_palm_3</collision>
        <collision>r_hand::r_hand_collision_right_palm_4</collision>
        <collision>r_hand::r_hand_collision_right_palm_5</collision>
        <collision>right_f0_1::right_f0_1_collision</collision>
        <collision>right_f0_2::right_f0_2_collision</collision>
        <collision>right_f1_1::right_f1_1_collision</collision>
        <collision>right_f1_2::right_f1_2_collision</collision>
        <collision>right_f2_1::right_f2_1_collision</collision>
        <collision>right_f2_2::right_f2_2_collision</collision>
        <collision>right_f3_1::right_f3_1_collision</collision>
        <collision>right_f3_2::right_f3_2_collision</collision>
      </contact>
    </plugin>
  </gazebo>
  <gazebo reference="r_hand">
    <sensor name="imu_sensor" type="imu">
      <always_on>1</always_on>
      <update_rate>1000.0</update_rate>
      <imu>
        <noise>
          <type>gaussian</type>
          <rate>
            <mean>0.0</mean>
            <stddev>2e-4</stddev>
            <bias_mean>0.0000075</bias_mean>
            <bias_stddev>0.0000008</bias_stddev>
          </rate>
          <accel>
            <mean>0.0</mean>
            <stddev>1.7e-2</stddev>
            <bias_mean>0.1</bias_mean>
            <bias_stddev>0.001</bias_stddev>
          </accel>
        </noise>
      </imu>
    </sensor>
  </gazebo>
  <link name="left_palm">
    <origin rpy="0 0 0" xyz="0 0 0"/>
    <inertial>
      <mass value="1.303"/>
      <origin xyz="0 0 0"/>
      <!-- solid sphere with 5cm radius -->
      <inertia ixx="0.001303" ixy="0" ixz="0" iyy="0.001303" iyz="0" izz="0.001303"/>
    </inertial>
    <!-- begin simple shape approximation of palm -->
    <collision group="default">
      <origin rpy="0 1.57079632679 0.9" xyz="0.069 -0.016 0.038"/>
      <geometry>
        <cylinder length="0.100" radius="0.013"/>
      </geometry>
    </collision>
    <collision group="other">
      <origin rpy="0.41 0 0.9" xyz="0.064 -0.008 0.021"/>
      <geometry>
        <box size="0.09 .035 .05"/>
      </geometry>
    </collision>
    <collision group="other">
      <origin rpy="0 1.57079632679 0" xyz="0.02 0 -0.005"/>
      <geometry>
        <cylinder length="0.05" radius="0.038"/>
      </geometry>
    </collision>
    <collision group="other">
      <origin rpy="0 0 -0.37" xyz="0.11 0.01 -0.005"/>
      <geometry>
        <box size="0.09 .03 .06"/>
      </geometry>
    </collision>
    <collision group="other">
      <origin rpy="0 0 -0.37" xyz="0.09 -0.02 -0.005"/>
      <geometry>
        <box size="0.09 .03 .06"/>
      </geometry>
    </collision>
    <collision group="other">
      <origin rpy="0 0 -0.37" xyz="0.060 -0.05 -0.005"/>
      <geometry>
        <box size="0.09 .03 .06"/>
      </geometry>
    </collision>
    <collision group="other">
      <origin rpy="0 0 -0.79" xyz="0.044 0.04 -0.005"/>
      <geometry>
        <box size="0.09 .03 .06"/>
      </geometry>
    </collision>
    <!--   end simple shape approximation of palm -->
    <!-- begin visual shape approximation of palm -->
    <visual>
      <origin rpy="0 1.57079632679 0.9" xyz="0.069 -0.016 0.038"/>
      <geometry>
        <cylinder length="0.100" radius="0.013"/>
      </geometry>
      <material name="left_sandia_hand_skin">
        <color rgba="0.835 0.655 0.345 1.0"/>
      </material>
    </visual>
    <visual>
      <origin rpy="0.41 0 0.9" xyz="0.064 -0.008 0.021"/>
      <geometry>
        <box size="0.09 .035 .05"/>
      </geometry>
      <material name="left_sandia_hand_skin">
        <color rgba="0.835 0.655 0.345 1.0"/>
      </material>
    </visual>
    <visual>
      <origin rpy="0 1.57079632679 0" xyz="0.02 0 -0.005"/>
      <geometry>
        <cylinder length="0.05" radius="0.038"/>
      </geometry>
      <material name="left_sandia_hand_skin">
        <color rgba="0.835 0.655 0.345 1.0"/>
      </material>
    </visual>
    <visual>
      <origin rpy="0 0 -0.37" xyz="0.11 0.01 -0.005"/>
      <geometry>
        <box size="0.09 .03 .06"/>
      </geometry>
      <material name="left_sandia_hand_skin">
        <color rgba="0.835 0.655 0.345 1.0"/>
      </material>
    </visual>
    <visual>
      <origin rpy="0 0 -0.37" xyz="0.09 -0.02 -0.005"/>
      <geometry>
        <box size="0.09 .03 .06"/>
      </geometry>
      <material name="left_sandia_hand_skin">
        <color rgba="0.835 0.655 0.345 1.0"/>
      </material>
    </visual>
    <visual>
      <origin rpy="0 0 -0.37" xyz="0.060 -0.05 -0.005"/>
      <geometry>
        <box size="0.09 .03 .06"/>
      </geometry>
      <material name="left_sandia_hand_skin">
        <color rgba="0.835 0.655 0.345 1.0"/>
      </material>
    </visual>
    <visual>
      <origin rpy="0 0 -0.79" xyz="0.044 0.04 -0.005"/>
      <geometry>
        <box size="0.09 .03 .06"/>
      </geometry>
      <material name="left_sandia_hand_skin">
        <color rgba="0.835 0.655 0.345 1.0"/>
      </material>
    </visual>
    <!--   end visual shape approximation of palm -->
    <!-- begin collision mesh of f2 ->
      <collision group="default">
        <origin xyz="0 0 0" rpy="0 0 0"/>
        <geometry>
          <mesh filename="package://sandia_hand_description/meshes/palm.stl"/>
        </geometry>
      </collision>
      <!-   end collision mesh of f2 -->
    <!-- begin visual mesh of f2    ->
      <visual>
        <origin xyz="0 0 0" rpy="0 0 0"/>
        <geometry>
          <mesh filename="package://sandia_hand_description/meshes/palm.stl"/>
        </geometry>
        <material name="${side}_sandia_hand_skin">
          <color rgba="0.835 0.655 0.345 1.0"/>
        </material>
      </visual>
      <!-   end visual mesh of f2 -->
  </link>
  <joint name="left_sandia_hand_joint" type="fixed">
    <parent link="l_hand"/>
    <child link="left_palm"/>
    <origin rpy=" 1.57079 0  1.57079" xyz="0  0.1 0"/>
  </joint>
  <link name="left_f0_base">
    <origin rpy="0 0 0" xyz="0 0 0"/>
    <inertial>
      <!-- total mass is 2.303 kg, palm is about 1.303 kg, distribute the rest into _base -->
      <mass value="0.250"/>
      <!-- (2.303 - 1.303) / 4 -->
      <origin xyz="0 0 0"/>
      <!-- model as sphere with radius of 1cm -->
      <inertia ixx="0.00001" ixy="0" ixz="0" iyy="0.00001" iyz="0" izz="0.00001"/>
    </inertial>
  </link>
  <link name="left_f0_fixed_accel">
    <origin rpy="0 0 0" xyz="0 0 0"/>
    <inertial>
      <mass value="0.01"/>
      <origin xyz="0 0 0"/>
      <inertia ixx="0.000001" ixy="0" ixz="0" iyy="0.000001" iyz="0" izz="0.000001"/>
    </inertial>
  </link>
  <link name="left_f0_0">
    <origin rpy="0 0 0" xyz="0 0 0"/>
    <inertial>
      <mass value="0.106"/>
      <!-- F1 -->
      <origin xyz="0 0 0"/>
      <!-- solid cylinder -->
      <inertia ixx="0.000011925" ixy="0" ixz="0" iyy="0.00011505" iyz="0" izz="0.00011505"/>
    </inertial>
    <!-- begin simple shape approximation of f0 -->
    <collision group="default">
      <origin rpy="0 0 0" xyz="0 0 0.003"/>
      <geometry>
        <cylinder length="0.023" radius="0.015"/>
      </geometry>
    </collision>
    <collision group="other">
      <origin rpy="1.57079632679 0 0" xyz="0.011 0 0.003"/>
      <geometry>
        <cylinder length="0.023" radius="0.01"/>
      </geometry>
    </collision>
    <!--   end simple shape approximation of f0 -->
    <!-- begin visual shape approximation of f0 -->
    <visual>
      <origin rpy="0 0 0" xyz="0 0 0.003"/>
      <geometry>
        <cylinder length="0.023" radius="0.015"/>
      </geometry>
      <material name="left_sandia_hand_skin_suntan">
        <color rgba="0.7 0.4 0.2 1.0"/>
      </material>
    </visual>
    <visual>
      <origin rpy="1.57079632679 0 0" xyz="0.011 0 0.003"/>
      <geometry>
        <cylinder length="0.023" radius="0.01"/>
      </geometry>
      <material name="left_sandia_hand_skin_suntan">
        <color rgba="0.7 0.4 0.2 1.0"/>
      </material>
    </visual>
    <!--   end visual shape approximation of f0 -->
    <!-- begin collision mesh of f0 ->
      <collision group="default">
        <origin xyz="0 0 0" rpy="0 0 0"/>
        <geometry>
          <mesh filename="package://sandia_hand_description/meshes/f0.stl"/>
        </geometry>
      </collision>
      <!-   end collision mesh of f0 -->
    <!-- begin visual mesh of f0 ->
      <visual>
        <origin xyz="0 0 0" rpy="0 0 0"/>
        <geometry>
          <mesh filename="package://sandia_hand_description/meshes/f0.stl"/>
        </geometry>
        <material name="${side}_sandia_hand_skin_suntan">
          <color rgba="0.7 0.4 0.2 1.0"/>
        </material>
      </visual>
      <!-   end visual mesh of f0 -->
  </link>
  <link name="left_f0_1">
    <origin rpy="0 0 0" xyz="0 0 0"/>
    <inertial>
      <mass value="0.033"/>
      <!-- F2 -->
      <origin xyz="0 0 0"/>
      <!-- solid cylinder -->
      <inertia ixx="0.00000165" ixy="0" ixz="0" iyy="0.00001316975" iyz="0" izz="0.00001316975"/>
    </inertial>
    <!-- begin simple shape approximation of f1 -->
    <collision group="default">
      <origin rpy="0 1.57079632679 0" xyz="0.024 0 0"/>
      <geometry>
        <cylinder length="0.067" radius="0.01"/>
      </geometry>
    </collision>
    <!--   end simple shape approximation of f1 -->
    <!-- begin visual shape approximation of f1 -->
    <visual>
      <origin rpy="0 1.57079632679 0" xyz="0.024 0 0"/>
      <geometry>
        <cylinder length="0.067" radius="0.01"/>
      </geometry>
      <material name="left_sandia_hand_skin">
        <color rgba="0.835 0.655 0.345 1.0"/>
      </material>
    </visual>
    <!--   end visual shape approximation of f1 -->
    <!-- begin collision mesh of f1 ->
      <collision group="default">
        <origin xyz="0 0 0" rpy="0 0 0"/>
        <geometry>
          <mesh filename="package://sandia_hand_description/meshes/f1.stl"/>
        </geometry>
      </collision>
      <!-   end collision mesh of f1 -->
    <!-- begin visual mesh of f1 ->
      <visual>
        <origin xyz="0 0 0" rpy="0 0 0"/>
        <geometry>
          <mesh filename="package://sandia_hand_description/meshes/f1.stl"/>
        </geometry>
        <material name="${side}_sandia_hand_skin">
          <color rgba="0.835 0.655 0.345 1.0"/>
        </material>
      </visual>
      <!-   end visual mesh of f1 -->
  </link>
  <link name="left_f0_1_accel">
    <origin rpy="0 0 0" xyz="0 0 0"/>
    <inertial>
      <mass value="0.01"/>
      <origin xyz="0 0 0"/>
      <inertia ixx="0.000001" ixy="0" ixz="0" iyy="0.000001" iyz="0" izz="0.000001"/>
    </inertial>
  </link>
  <link name="left_f0_2">
    <origin rpy="0 0 0" xyz="0 0 0"/>
    <inertial>
      <mass value="0.033"/>
      <!-- F3 -->
      <origin xyz="0 0 0"/>
      <!-- solid cylinder -->
      <inertia ixx="0.0000013365" ixy="0" ixz="0" iyy="0.000009603" iyz="0" izz="0.000009603"/>
    </inertial>
    <!-- begin simple shape approximation of f2 -->
    <collision group="default">
      <origin rpy="0 1.57079632679 0" xyz="0.024 0 0"/>
      <geometry>
        <cylinder length="0.057" radius="0.009"/>
      </geometry>
    </collision>
    <collision group="other">
      <origin rpy="0 0 0" xyz="0.052 0 0"/>
      <geometry>
        <sphere radius="0.009"/>
      </geometry>
    </collision>
    <!--   end simple shape approximation of f2 -->
    <!-- begin visual shape approximation of f2 -->
    <visual>
      <origin rpy="0 1.57079632679 0" xyz="0.024 0 0"/>
      <geometry>
        <cylinder length="0.057" radius="0.009"/>
      </geometry>
      <material name="left_sandia_hand_skin_suntan">
        <color rgba="0.8 0.6 0.3 1.0"/>
      </material>
    </visual>
    <visual>
      <origin rpy="0 0 0" xyz="0.052 0 0"/>
      <geometry>
        <sphere radius="0.009"/>
      </geometry>
      <material name="left_sandia_hand_skin_suntan">
        <color rgba="0.8 0.6 0.3 1.0"/>
      </material>
    </visual>
    <!-- begin collision mesh of f2    ->
      <collision group="default">
        <origin xyz="0 0 0" rpy="0 0 0"/>
        <geometry>
          <mesh filename="package://sandia_hand_description/meshes/f2.stl"/>
        </geometry>
      </collision>
      <!-   end collision mesh of f2 -->
    <!-- begin visual mesh of f2    ->
      <visual>
        <origin xyz="0 0 0" rpy="0 0 0"/>
        <geometry>
          <mesh filename="package://sandia_hand_description/meshes/f2.stl"/>
        </geometry>
        <material name="${side}_sandia_hand_skin_suntan">
          <color rgba="0.8 0.6 0.3 1.0"/>
        </material>
      </visual>
      <!-   end visual mesh of f2 -->
  </link>
  <link name="left_f0_2_accel">
    <origin rpy="0 0 0" xyz="0 0 0"/>
    <inertial>
      <mass value="0.01"/>
      <origin xyz="0 0 0"/>
      <inertia ixx="0.000001" ixy="0" ixz="0" iyy="0.000001" iyz="0" izz="0.000001"/>
    </inertial>
  </link>
  <joint name="left_f0_base" type="fixed">
    <parent link="left_palm"/>
    <child link="left_f0_base"/>
    <origin rpy="0 0 -0.3" xyz="0.14 0.0 0"/>
  </joint>
  <joint name="left_f0_j0" type="revolute">
    <axis xyz="0 0 -1"/>
    <parent link="left_f0_base"/>
    <child link="left_f0_0"/>
    <limit effort="11" lower="-1.57079632679" upper="1.57079632679" velocity="-1"/>
    <safety_controller k_position="1000.0" k_velocity="1000.0" soft_lower_limit="-11.57079" soft_upper_limit="11.57079"/>
    <dynamics damping="1.0"/>
    <origin rpy="0 0 0" xyz="0 0 0"/>
  </joint>
  <joint name="left_f0_j1" type="revolute">
    <axis xyz="0 0 1"/>
    <parent link="left_f0_0"/>
    <child link="left_f0_1"/>
    <limit effort="28" lower="-1.57079632679" upper="1.57079632679" velocity="-1"/>
    <safety_controller k_position="1000.0" k_velocity="1000.0" soft_lower_limit="-11.57079" soft_upper_limit="11.57079"/>
    <dynamics damping="1.0"/>
    <origin rpy="1.57079632679 0 0" xyz="0.028 0 0"/>
  </joint>
  <joint name="left_f0_j2" type="revolute">
    <axis xyz="0 0 1"/>
    <parent link="left_f0_1"/>
    <child link="left_f0_2"/>
    <origin rpy="0 0 0" xyz="0.05 0 0"/>
    <safety_controller k_position="1000.0" k_velocity="1000.0" soft_lower_limit="-11.57079" soft_upper_limit="11.57079"/>
    <dynamics damping="1.0"/>
    <limit effort="28" lower="-1.57079632679" upper="1.57079632679" velocity="-1"/>
  </joint>
  <joint name="left_f0_fixed_accel" type="fixed">
    <parent link="left_f0_base"/>
    <child link="left_f0_fixed_accel"/>
    <origin rpy="0 0 0" xyz="-0.05 0 0"/>
  </joint>
  <joint name="left_f0_1_accel" type="fixed">
    <parent link="left_f0_1"/>
    <child link="left_f0_1_accel"/>
    <origin rpy="-1.57079632679 0 0" xyz="0.03 0 0"/>
  </joint>
  <joint name="left_f0_2_accel" type="fixed">
    <parent link="left_f0_2"/>
    <child link="left_f0_2_accel"/>
    <origin rpy="-1.57079632679 0 0" xyz="0.04 0 0"/>
  </joint>
  <transmission name="left_f0_j0" type="pr2_mechanism_model/SimpleTransmission">
    <joint name="left_f0_j0"/>
    <actuator name="left_f0_j0_motor"/>
    <mechanicalReduction>1</mechanicalReduction>
  </transmission>
  <transmission name="left_f0_j1" type="pr2_mechanism_model/SimpleTransmission">
    <joint name="left_f0_j1"/>
    <actuator name="left_f0_j1_motor"/>
    <mechanicalReduction>1</mechanicalReduction>
  </transmission>
  <transmission name="left_f0_j2" type="pr2_mechanism_model/SimpleTransmission">
    <joint name="left_f0_j2"/>
    <actuator name="left_f0_j2_motor"/>
    <mechanicalReduction>1</mechanicalReduction>
  </transmission>
  <gazebo reference="left_f0_base">
    <mu1>0.9</mu1>
    <mu2>0.9</mu2>
    <kp>1000000.0</kp>
    <kd>1.0</kd>
    <maxVel>0.1</maxVel>
    <minDepth>0.001</minDepth>
    <material>Gazebo/FlatBlack</material>
  </gazebo>
  <gazebo reference="left_f0_0">
    <mu1>0.9</mu1>
    <mu2>0.9</mu2>
    <kp>1000000.0</kp>
    <kd>1.0</kd>
    <maxVel>0.1</maxVel>
    <minDepth>0.003</minDepth>
    <maxContacts>1</maxContacts>
    <material>Gazebo/FlatBlack</material>
  </gazebo>
  <gazebo reference="left_f0_1">
    <mu1>0.9</mu1>
    <mu2>0.9</mu2>
    <kp>1000000.0</kp>
    <kd>1.0</kd>
    <maxVel>0.1</maxVel>
    <minDepth>0.003</minDepth>
    <maxContacts>1</maxContacts>
    <material>Gazebo/FlatBlack</material>
  </gazebo>
  <gazebo reference="left_f0_2">
    <mu1>0.9</mu1>
    <mu2>0.9</mu2>
    <kp>1000000.0</kp>
    <kd>1.0</kd>
    <maxVel>0.1</maxVel>
    <minDepth>0.003</minDepth>
    <maxContacts>1</maxContacts>
    <material>Gazebo/FlatBlack</material>
  </gazebo>
  <gazebo reference="left_f0_j0">
    <cfmDamping>1</cfmDamping>
  </gazebo>
  <gazebo reference="left_f0_j1">
    <cfmDamping>1</cfmDamping>
  </gazebo>
  <gazebo reference="left_f0_j2">
    <cfmDamping>1</cfmDamping>
  </gazebo>
  <link name="left_f1_base">
    <origin rpy="0 0 0" xyz="0 0 0"/>
    <inertial>
      <!-- total mass is 2.303 kg, palm is about 1.303 kg, distribute the rest into _base -->
      <mass value="0.250"/>
      <!-- (2.303 - 1.303) / 4 -->
      <origin xyz="0 0 0"/>
      <!-- model as sphere with radius of 1cm -->
      <inertia ixx="0.00001" ixy="0" ixz="0" iyy="0.00001" iyz="0" izz="0.00001"/>
    </inertial>
  </link>
  <link name="left_f1_fixed_accel">
    <origin rpy="0 0 0" xyz="0 0 0"/>
    <inertial>
      <mass value="0.01"/>
      <origin xyz="0 0 0"/>
      <inertia ixx="0.000001" ixy="0" ixz="0" iyy="0.000001" iyz="0" izz="0.000001"/>
    </inertial>
  </link>
  <link name="left_f1_0">
    <origin rpy="0 0 0" xyz="0 0 0"/>
    <inertial>
      <mass value="0.106"/>
      <!-- F1 -->
      <origin xyz="0 0 0"/>
      <!-- solid cylinder -->
      <inertia ixx="0.000011925" ixy="0" ixz="0" iyy="0.00011505" iyz="0" izz="0.00011505"/>
    </inertial>
    <!-- begin simple shape approximation of f0 -->
    <collision group="default">
      <origin rpy="0 0 0" xyz="0 0 0.003"/>
      <geometry>
        <cylinder length="0.023" radius="0.015"/>
      </geometry>
    </collision>
    <collision group="other">
      <origin rpy="1.57079632679 0 0" xyz="0.011 0 0.003"/>
      <geometry>
        <cylinder length="0.023" radius="0.01"/>
      </geometry>
    </collision>
    <!--   end simple shape approximation of f0 -->
    <!-- begin visual shape approximation of f0 -->
    <visual>
      <origin rpy="0 0 0" xyz="0 0 0.003"/>
      <geometry>
        <cylinder length="0.023" radius="0.015"/>
      </geometry>
      <material name="left_sandia_hand_skin_suntan">
        <color rgba="0.7 0.4 0.2 1.0"/>
      </material>
    </visual>
    <visual>
      <origin rpy="1.57079632679 0 0" xyz="0.011 0 0.003"/>
      <geometry>
        <cylinder length="0.023" radius="0.01"/>
      </geometry>
      <material name="left_sandia_hand_skin_suntan">
        <color rgba="0.7 0.4 0.2 1.0"/>
      </material>
    </visual>
    <!--   end visual shape approximation of f0 -->
    <!-- begin collision mesh of f0 ->
      <collision group="default">
        <origin xyz="0 0 0" rpy="0 0 0"/>
        <geometry>
          <mesh filename="package://sandia_hand_description/meshes/f0.stl"/>
        </geometry>
      </collision>
      <!-   end collision mesh of f0 -->
    <!-- begin visual mesh of f0 ->
      <visual>
        <origin xyz="0 0 0" rpy="0 0 0"/>
        <geometry>
          <mesh filename="package://sandia_hand_description/meshes/f0.stl"/>
        </geometry>
        <material name="${side}_sandia_hand_skin_suntan">
          <color rgba="0.7 0.4 0.2 1.0"/>
        </material>
      </visual>
      <!-   end visual mesh of f0 -->
  </link>
  <link name="left_f1_1">
    <origin rpy="0 0 0" xyz="0 0 0"/>
    <inertial>
      <mass value="0.033"/>
      <!-- F2 -->
      <origin xyz="0 0 0"/>
      <!-- solid cylinder -->
      <inertia ixx="0.00000165" ixy="0" ixz="0" iyy="0.00001316975" iyz="0" izz="0.00001316975"/>
    </inertial>
    <!-- begin simple shape approximation of f1 -->
    <collision group="default">
      <origin rpy="0 1.57079632679 0" xyz="0.024 0 0"/>
      <geometry>
        <cylinder length="0.067" radius="0.01"/>
      </geometry>
    </collision>
    <!--   end simple shape approximation of f1 -->
    <!-- begin visual shape approximation of f1 -->
    <visual>
      <origin rpy="0 1.57079632679 0" xyz="0.024 0 0"/>
      <geometry>
        <cylinder length="0.067" radius="0.01"/>
      </geometry>
      <material name="left_sandia_hand_skin">
        <color rgba="0.835 0.655 0.345 1.0"/>
      </material>
    </visual>
    <!--   end visual shape approximation of f1 -->
    <!-- begin collision mesh of f1 ->
      <collision group="default">
        <origin xyz="0 0 0" rpy="0 0 0"/>
        <geometry>
          <mesh filename="package://sandia_hand_description/meshes/f1.stl"/>
        </geometry>
      </collision>
      <!-   end collision mesh of f1 -->
    <!-- begin visual mesh of f1 ->
      <visual>
        <origin xyz="0 0 0" rpy="0 0 0"/>
        <geometry>
          <mesh filename="package://sandia_hand_description/meshes/f1.stl"/>
        </geometry>
        <material name="${side}_sandia_hand_skin">
          <color rgba="0.835 0.655 0.345 1.0"/>
        </material>
      </visual>
      <!-   end visual mesh of f1 -->
  </link>
  <link name="left_f1_1_accel">
    <origin rpy="0 0 0" xyz="0 0 0"/>
    <inertial>
      <mass value="0.01"/>
      <origin xyz="0 0 0"/>
      <inertia ixx="0.000001" ixy="0" ixz="0" iyy="0.000001" iyz="0" izz="0.000001"/>
    </inertial>
  </link>
  <link name="left_f1_2">
    <origin rpy="0 0 0" xyz="0 0 0"/>
    <inertial>
      <mass value="0.033"/>
      <!-- F3 -->
      <origin xyz="0 0 0"/>
      <!-- solid cylinder -->
      <inertia ixx="0.0000013365" ixy="0" ixz="0" iyy="0.000009603" iyz="0" izz="0.000009603"/>
    </inertial>
    <!-- begin simple shape approximation of f2 -->
    <collision group="default">
      <origin rpy="0 1.57079632679 0" xyz="0.024 0 0"/>
      <geometry>
        <cylinder length="0.057" radius="0.009"/>
      </geometry>
    </collision>
    <collision group="other">
      <origin rpy="0 0 0" xyz="0.052 0 0"/>
      <geometry>
        <sphere radius="0.009"/>
      </geometry>
    </collision>
    <!--   end simple shape approximation of f2 -->
    <!-- begin visual shape approximation of f2 -->
    <visual>
      <origin rpy="0 1.57079632679 0" xyz="0.024 0 0"/>
      <geometry>
        <cylinder length="0.057" radius="0.009"/>
      </geometry>
      <material name="left_sandia_hand_skin_suntan">
        <color rgba="0.8 0.6 0.3 1.0"/>
      </material>
    </visual>
    <visual>
      <origin rpy="0 0 0" xyz="0.052 0 0"/>
      <geometry>
        <sphere radius="0.009"/>
      </geometry>
      <material name="left_sandia_hand_skin_suntan">
        <color rgba="0.8 0.6 0.3 1.0"/>
      </material>
    </visual>
    <!-- begin collision mesh of f2    ->
      <collision group="default">
        <origin xyz="0 0 0" rpy="0 0 0"/>
        <geometry>
          <mesh filename="package://sandia_hand_description/meshes/f2.stl"/>
        </geometry>
      </collision>
      <!-   end collision mesh of f2 -->
    <!-- begin visual mesh of f2    ->
      <visual>
        <origin xyz="0 0 0" rpy="0 0 0"/>
        <geometry>
          <mesh filename="package://sandia_hand_description/meshes/f2.stl"/>
        </geometry>
        <material name="${side}_sandia_hand_skin_suntan">
          <color rgba="0.8 0.6 0.3 1.0"/>
        </material>
      </visual>
      <!-   end visual mesh of f2 -->
  </link>
  <link name="left_f1_2_accel">
    <origin rpy="0 0 0" xyz="0 0 0"/>
    <inertial>
      <mass value="0.01"/>
      <origin xyz="0 0 0"/>
      <inertia ixx="0.000001" ixy="0" ixz="0" iyy="0.000001" iyz="0" izz="0.000001"/>
    </inertial>
  </link>
  <joint name="left_f1_base" type="fixed">
    <parent link="left_palm"/>
    <child link="left_f1_base"/>
    <origin rpy="0 0 -0.3" xyz="0.115 -0.03122 0"/>
  </joint>
  <joint name="left_f1_j0" type="revolute">
    <axis xyz="0 0 -1"/>
    <parent link="left_f1_base"/>
    <child link="left_f1_0"/>
    <limit effort="11" lower="-1.57079632679" upper="1.57079632679" velocity="-1"/>
    <safety_controller k_position="1000.0" k_velocity="1000.0" soft_lower_limit="-11.57079" soft_upper_limit="11.57079"/>
    <dynamics damping="1.0"/>
    <origin rpy="0 0 0" xyz="0 0 0"/>
  </joint>
  <joint name="left_f1_j1" type="revolute">
    <axis xyz="0 0 1"/>
    <parent link="left_f1_0"/>
    <child link="left_f1_1"/>
    <limit effort="28" lower="-1.57079632679" upper="1.57079632679" velocity="-1"/>
    <safety_controller k_position="1000.0" k_velocity="1000.0" soft_lower_limit="-11.57079" soft_upper_limit="11.57079"/>
    <dynamics damping="1.0"/>
    <origin rpy="1.57079632679 0 0" xyz="0.028 0 0"/>
  </joint>
  <joint name="left_f1_j2" type="revolute">
    <axis xyz="0 0 1"/>
    <parent link="left_f1_1"/>
    <child link="left_f1_2"/>
    <origin rpy="0 0 0" xyz="0.05 0 0"/>
    <safety_controller k_position="1000.0" k_velocity="1000.0" soft_lower_limit="-11.57079" soft_upper_limit="11.57079"/>
    <dynamics damping="1.0"/>
    <limit effort="28" lower="-1.57079632679" upper="1.57079632679" velocity="-1"/>
  </joint>
  <joint name="left_f1_fixed_accel" type="fixed">
    <parent link="left_f1_base"/>
    <child link="left_f1_fixed_accel"/>
    <origin rpy="0 0 0" xyz="-0.05 0 0"/>
  </joint>
  <joint name="left_f1_1_accel" type="fixed">
    <parent link="left_f1_1"/>
    <child link="left_f1_1_accel"/>
    <origin rpy="-1.57079632679 0 0" xyz="0.03 0 0"/>
  </joint>
  <joint name="left_f1_2_accel" type="fixed">
    <parent link="left_f1_2"/>
    <child link="left_f1_2_accel"/>
    <origin rpy="-1.57079632679 0 0" xyz="0.04 0 0"/>
  </joint>
  <transmission name="left_f1_j0" type="pr2_mechanism_model/SimpleTransmission">
    <joint name="left_f1_j0"/>
    <actuator name="left_f1_j0_motor"/>
    <mechanicalReduction>1</mechanicalReduction>
  </transmission>
  <transmission name="left_f1_j1" type="pr2_mechanism_model/SimpleTransmission">
    <joint name="left_f1_j1"/>
    <actuator name="left_f1_j1_motor"/>
    <mechanicalReduction>1</mechanicalReduction>
  </transmission>
  <transmission name="left_f1_j2" type="pr2_mechanism_model/SimpleTransmission">
    <joint name="left_f1_j2"/>
    <actuator name="left_f1_j2_motor"/>
    <mechanicalReduction>1</mechanicalReduction>
  </transmission>
  <gazebo reference="left_f1_base">
    <mu1>0.9</mu1>
    <mu2>0.9</mu2>
    <kp>1000000.0</kp>
    <kd>1.0</kd>
    <maxVel>0.1</maxVel>
    <minDepth>0.001</minDepth>
    <material>Gazebo/FlatBlack</material>
  </gazebo>
  <gazebo reference="left_f1_0">
    <mu1>0.9</mu1>
    <mu2>0.9</mu2>
    <kp>1000000.0</kp>
    <kd>1.0</kd>
    <maxVel>0.1</maxVel>
    <minDepth>0.003</minDepth>
    <maxContacts>1</maxContacts>
    <material>Gazebo/FlatBlack</material>
  </gazebo>
  <gazebo reference="left_f1_1">
    <mu1>0.9</mu1>
    <mu2>0.9</mu2>
    <kp>1000000.0</kp>
    <kd>1.0</kd>
    <maxVel>0.1</maxVel>
    <minDepth>0.003</minDepth>
    <maxContacts>1</maxContacts>
    <material>Gazebo/FlatBlack</material>
  </gazebo>
  <gazebo reference="left_f1_2">
    <mu1>0.9</mu1>
    <mu2>0.9</mu2>
    <kp>1000000.0</kp>
    <kd>1.0</kd>
    <maxVel>0.1</maxVel>
    <minDepth>0.003</minDepth>
    <maxContacts>1</maxContacts>
    <material>Gazebo/FlatBlack</material>
  </gazebo>
  <gazebo reference="left_f1_j0">
    <cfmDamping>1</cfmDamping>
  </gazebo>
  <gazebo reference="left_f1_j1">
    <cfmDamping>1</cfmDamping>
  </gazebo>
  <gazebo reference="left_f1_j2">
    <cfmDamping>1</cfmDamping>
  </gazebo>
  <link name="left_f2_base">
    <origin rpy="0 0 0" xyz="0 0 0"/>
    <inertial>
      <!-- total mass is 2.303 kg, palm is about 1.303 kg, distribute the rest into _base -->
      <mass value="0.250"/>
      <!-- (2.303 - 1.303) / 4 -->
      <origin xyz="0 0 0"/>
      <!-- model as sphere with radius of 1cm -->
      <inertia ixx="0.00001" ixy="0" ixz="0" iyy="0.00001" iyz="0" izz="0.00001"/>
    </inertial>
  </link>
  <link name="left_f2_fixed_accel">
    <origin rpy="0 0 0" xyz="0 0 0"/>
    <inertial>
      <mass value="0.01"/>
      <origin xyz="0 0 0"/>
      <inertia ixx="0.000001" ixy="0" ixz="0" iyy="0.000001" iyz="0" izz="0.000001"/>
    </inertial>
  </link>
  <link name="left_f2_0">
    <origin rpy="0 0 0" xyz="0 0 0"/>
    <inertial>
      <mass value="0.106"/>
      <!-- F1 -->
      <origin xyz="0 0 0"/>
      <!-- solid cylinder -->
      <inertia ixx="0.000011925" ixy="0" ixz="0" iyy="0.00011505" iyz="0" izz="0.00011505"/>
    </inertial>
    <!-- begin simple shape approximation of f0 -->
    <collision group="default">
      <origin rpy="0 0 0" xyz="0 0 0.003"/>
      <geometry>
        <cylinder length="0.023" radius="0.015"/>
      </geometry>
    </collision>
    <collision group="other">
      <origin rpy="1.57079632679 0 0" xyz="0.011 0 0.003"/>
      <geometry>
        <cylinder length="0.023" radius="0.01"/>
      </geometry>
    </collision>
    <!--   end simple shape approximation of f0 -->
    <!-- begin visual shape approximation of f0 -->
    <visual>
      <origin rpy="0 0 0" xyz="0 0 0.003"/>
      <geometry>
        <cylinder length="0.023" radius="0.015"/>
      </geometry>
      <material name="left_sandia_hand_skin_suntan">
        <color rgba="0.7 0.4 0.2 1.0"/>
      </material>
    </visual>
    <visual>
      <origin rpy="1.57079632679 0 0" xyz="0.011 0 0.003"/>
      <geometry>
        <cylinder length="0.023" radius="0.01"/>
      </geometry>
      <material name="left_sandia_hand_skin_suntan">
        <color rgba="0.7 0.4 0.2 1.0"/>
      </material>
    </visual>
    <!--   end visual shape approximation of f0 -->
    <!-- begin collision mesh of f0 ->
      <collision group="default">
        <origin xyz="0 0 0" rpy="0 0 0"/>
        <geometry>
          <mesh filename="package://sandia_hand_description/meshes/f0.stl"/>
        </geometry>
      </collision>
      <!-   end collision mesh of f0 -->
    <!-- begin visual mesh of f0 ->
      <visual>
        <origin xyz="0 0 0" rpy="0 0 0"/>
        <geometry>
          <mesh filename="package://sandia_hand_description/meshes/f0.stl"/>
        </geometry>
        <material name="${side}_sandia_hand_skin_suntan">
          <color rgba="0.7 0.4 0.2 1.0"/>
        </material>
      </visual>
      <!-   end visual mesh of f0 -->
  </link>
  <link name="left_f2_1">
    <origin rpy="0 0 0" xyz="0 0 0"/>
    <inertial>
      <mass value="0.033"/>
      <!-- F2 -->
      <origin xyz="0 0 0"/>
      <!-- solid cylinder -->
      <inertia ixx="0.00000165" ixy="0" ixz="0" iyy="0.00001316975" iyz="0" izz="0.00001316975"/>
    </inertial>
    <!-- begin simple shape approximation of f1 -->
    <collision group="default">
      <origin rpy="0 1.57079632679 0" xyz="0.024 0 0"/>
      <geometry>
        <cylinder length="0.067" radius="0.01"/>
      </geometry>
    </collision>
    <!--   end simple shape approximation of f1 -->
    <!-- begin visual shape approximation of f1 -->
    <visual>
      <origin rpy="0 1.57079632679 0" xyz="0.024 0 0"/>
      <geometry>
        <cylinder length="0.067" radius="0.01"/>
      </geometry>
      <material name="left_sandia_hand_skin">
        <color rgba="0.835 0.655 0.345 1.0"/>
      </material>
    </visual>
    <!--   end visual shape approximation of f1 -->
    <!-- begin collision mesh of f1 ->
      <collision group="default">
        <origin xyz="0 0 0" rpy="0 0 0"/>
        <geometry>
          <mesh filename="package://sandia_hand_description/meshes/f1.stl"/>
        </geometry>
      </collision>
      <!-   end collision mesh of f1 -->
    <!-- begin visual mesh of f1 ->
      <visual>
        <origin xyz="0 0 0" rpy="0 0 0"/>
        <geometry>
          <mesh filename="package://sandia_hand_description/meshes/f1.stl"/>
        </geometry>
        <material name="${side}_sandia_hand_skin">
          <color rgba="0.835 0.655 0.345 1.0"/>
        </material>
      </visual>
      <!-   end visual mesh of f1 -->
  </link>
  <link name="left_f2_1_accel">
    <origin rpy="0 0 0" xyz="0 0 0"/>
    <inertial>
      <mass value="0.01"/>
      <origin xyz="0 0 0"/>
      <inertia ixx="0.000001" ixy="0" ixz="0" iyy="0.000001" iyz="0" izz="0.000001"/>
    </inertial>
  </link>
  <link name="left_f2_2">
    <origin rpy="0 0 0" xyz="0 0 0"/>
    <inertial>
      <mass value="0.033"/>
      <!-- F3 -->
      <origin xyz="0 0 0"/>
      <!-- solid cylinder -->
      <inertia ixx="0.0000013365" ixy="0" ixz="0" iyy="0.000009603" iyz="0" izz="0.000009603"/>
    </inertial>
    <!-- begin simple shape approximation of f2 -->
    <collision group="default">
      <origin rpy="0 1.57079632679 0" xyz="0.024 0 0"/>
      <geometry>
        <cylinder length="0.057" radius="0.009"/>
      </geometry>
    </collision>
    <collision group="other">
      <origin rpy="0 0 0" xyz="0.052 0 0"/>
      <geometry>
        <sphere radius="0.009"/>
      </geometry>
    </collision>
    <!--   end simple shape approximation of f2 -->
    <!-- begin visual shape approximation of f2 -->
    <visual>
      <origin rpy="0 1.57079632679 0" xyz="0.024 0 0"/>
      <geometry>
        <cylinder length="0.057" radius="0.009"/>
      </geometry>
      <material name="left_sandia_hand_skin_suntan">
        <color rgba="0.8 0.6 0.3 1.0"/>
      </material>
    </visual>
    <visual>
      <origin rpy="0 0 0" xyz="0.052 0 0"/>
      <geometry>
        <sphere radius="0.009"/>
      </geometry>
      <material name="left_sandia_hand_skin_suntan">
        <color rgba="0.8 0.6 0.3 1.0"/>
      </material>
    </visual>
    <!-- begin collision mesh of f2    ->
      <collision group="default">
        <origin xyz="0 0 0" rpy="0 0 0"/>
        <geometry>
          <mesh filename="package://sandia_hand_description/meshes/f2.stl"/>
        </geometry>
      </collision>
      <!-   end collision mesh of f2 -->
    <!-- begin visual mesh of f2    ->
      <visual>
        <origin xyz="0 0 0" rpy="0 0 0"/>
        <geometry>
          <mesh filename="package://sandia_hand_description/meshes/f2.stl"/>
        </geometry>
        <material name="${side}_sandia_hand_skin_suntan">
          <color rgba="0.8 0.6 0.3 1.0"/>
        </material>
      </visual>
      <!-   end visual mesh of f2 -->
  </link>
  <link name="left_f2_2_accel">
    <origin rpy="0 0 0" xyz="0 0 0"/>
    <inertial>
      <mass value="0.01"/>
      <origin xyz="0 0 0"/>
      <inertia ixx="0.000001" ixy="0" ixz="0" iyy="0.000001" iyz="0" izz="0.000001"/>
    </inertial>
  </link>
  <joint name="left_f2_base" type="fixed">
    <parent link="left_palm"/>
    <child link="left_f2_base"/>
    <origin rpy="0 0 -0.3" xyz="0.09 -0.06245 0"/>
  </joint>
  <joint name="left_f2_j0" type="revolute">
    <axis xyz="0 0 -1"/>
    <parent link="left_f2_base"/>
    <child link="left_f2_0"/>
    <limit effort="11" lower="-1.57079632679" upper="1.57079632679" velocity="-1"/>
    <safety_controller k_position="1000.0" k_velocity="1000.0" soft_lower_limit="-11.57079" soft_upper_limit="11.57079"/>
    <dynamics damping="1.0"/>
    <origin rpy="0 0 0" xyz="0 0 0"/>
  </joint>
  <joint name="left_f2_j1" type="revolute">
    <axis xyz="0 0 1"/>
    <parent link="left_f2_0"/>
    <child link="left_f2_1"/>
    <limit effort="28" lower="-1.57079632679" upper="1.57079632679" velocity="-1"/>
    <safety_controller k_position="1000.0" k_velocity="1000.0" soft_lower_limit="-11.57079" soft_upper_limit="11.57079"/>
    <dynamics damping="1.0"/>
    <origin rpy="1.57079632679 0 0" xyz="0.028 0 0"/>
  </joint>
  <joint name="left_f2_j2" type="revolute">
    <axis xyz="0 0 1"/>
    <parent link="left_f2_1"/>
    <child link="left_f2_2"/>
    <origin rpy="0 0 0" xyz="0.05 0 0"/>
    <safety_controller k_position="1000.0" k_velocity="1000.0" soft_lower_limit="-11.57079" soft_upper_limit="11.57079"/>
    <dynamics damping="1.0"/>
    <limit effort="28" lower="-1.57079632679" upper="1.57079632679" velocity="-1"/>
  </joint>
  <joint name="left_f2_fixed_accel" type="fixed">
    <parent link="left_f2_base"/>
    <child link="left_f2_fixed_accel"/>
    <origin rpy="0 0 0" xyz="-0.05 0 0"/>
  </joint>
  <joint name="left_f2_1_accel" type="fixed">
    <parent link="left_f2_1"/>
    <child link="left_f2_1_accel"/>
    <origin rpy="-1.57079632679 0 0" xyz="0.03 0 0"/>
  </joint>
  <joint name="left_f2_2_accel" type="fixed">
    <parent link="left_f2_2"/>
    <child link="left_f2_2_accel"/>
    <origin rpy="-1.57079632679 0 0" xyz="0.04 0 0"/>
  </joint>
  <transmission name="left_f2_j0" type="pr2_mechanism_model/SimpleTransmission">
    <joint name="left_f2_j0"/>
    <actuator name="left_f2_j0_motor"/>
    <mechanicalReduction>1</mechanicalReduction>
  </transmission>
  <transmission name="left_f2_j1" type="pr2_mechanism_model/SimpleTransmission">
    <joint name="left_f2_j1"/>
    <actuator name="left_f2_j1_motor"/>
    <mechanicalReduction>1</mechanicalReduction>
  </transmission>
  <transmission name="left_f2_j2" type="pr2_mechanism_model/SimpleTransmission">
    <joint name="left_f2_j2"/>
    <actuator name="left_f2_j2_motor"/>
    <mechanicalReduction>1</mechanicalReduction>
  </transmission>
  <gazebo reference="left_f2_base">
    <mu1>0.9</mu1>
    <mu2>0.9</mu2>
    <kp>1000000.0</kp>
    <kd>1.0</kd>
    <maxVel>0.1</maxVel>
    <minDepth>0.001</minDepth>
    <material>Gazebo/FlatBlack</material>
  </gazebo>
  <gazebo reference="left_f2_0">
    <mu1>0.9</mu1>
    <mu2>0.9</mu2>
    <kp>1000000.0</kp>
    <kd>1.0</kd>
    <maxVel>0.1</maxVel>
    <minDepth>0.003</minDepth>
    <maxContacts>1</maxContacts>
    <material>Gazebo/FlatBlack</material>
  </gazebo>
  <gazebo reference="left_f2_1">
    <mu1>0.9</mu1>
    <mu2>0.9</mu2>
    <kp>1000000.0</kp>
    <kd>1.0</kd>
    <maxVel>0.1</maxVel>
    <minDepth>0.003</minDepth>
    <maxContacts>1</maxContacts>
    <material>Gazebo/FlatBlack</material>
  </gazebo>
  <gazebo reference="left_f2_2">
    <mu1>0.9</mu1>
    <mu2>0.9</mu2>
    <kp>1000000.0</kp>
    <kd>1.0</kd>
    <maxVel>0.1</maxVel>
    <minDepth>0.003</minDepth>
    <maxContacts>1</maxContacts>
    <material>Gazebo/FlatBlack</material>
  </gazebo>
  <gazebo reference="left_f2_j0">
    <cfmDamping>1</cfmDamping>
  </gazebo>
  <gazebo reference="left_f2_j1">
    <cfmDamping>1</cfmDamping>
  </gazebo>
  <gazebo reference="left_f2_j2">
    <cfmDamping>1</cfmDamping>
  </gazebo>
  <link name="left_f3_base">
    <origin rpy="0 0 0" xyz="0 0 0"/>
    <inertial>
      <!-- total mass is 2.303 kg, palm is about 1.303 kg, distribute the rest into _base -->
      <mass value="0.250"/>
      <!-- (2.303 - 1.303) / 4 -->
      <origin xyz="0 0 0"/>
      <!-- model as sphere with radius of 1cm -->
      <inertia ixx="0.00001" ixy="0" ixz="0" iyy="0.00001" iyz="0" izz="0.00001"/>
    </inertial>
  </link>
  <link name="left_f3_fixed_accel">
    <origin rpy="0 0 0" xyz="0 0 0"/>
    <inertial>
      <mass value="0.01"/>
      <origin xyz="0 0 0"/>
      <inertia ixx="0.000001" ixy="0" ixz="0" iyy="0.000001" iyz="0" izz="0.000001"/>
    </inertial>
  </link>
  <link name="left_f3_0">
    <origin rpy="0 0 0" xyz="0 0 0"/>
    <inertial>
      <mass value="0.106"/>
      <!-- F1 -->
      <origin xyz="0 0 0"/>
      <!-- solid cylinder -->
      <inertia ixx="0.000011925" ixy="0" ixz="0" iyy="0.00011505" iyz="0" izz="0.00011505"/>
    </inertial>
    <!-- begin simple shape approximation of f0 -->
    <collision group="default">
      <origin rpy="0 0 0" xyz="0 0 0.003"/>
      <geometry>
        <cylinder length="0.023" radius="0.015"/>
      </geometry>
    </collision>
    <collision group="other">
      <origin rpy="1.57079632679 0 0" xyz="0.011 0 0.003"/>
      <geometry>
        <cylinder length="0.023" radius="0.01"/>
      </geometry>
    </collision>
    <!--   end simple shape approximation of f0 -->
    <!-- begin visual shape approximation of f0 -->
    <visual>
      <origin rpy="0 0 0" xyz="0 0 0.003"/>
      <geometry>
        <cylinder length="0.023" radius="0.015"/>
      </geometry>
      <material name="left_sandia_hand_skin_suntan">
        <color rgba="0.7 0.4 0.2 1.0"/>
      </material>
    </visual>
    <visual>
      <origin rpy="1.57079632679 0 0" xyz="0.011 0 0.003"/>
      <geometry>
        <cylinder length="0.023" radius="0.01"/>
      </geometry>
      <material name="left_sandia_hand_skin_suntan">
        <color rgba="0.7 0.4 0.2 1.0"/>
      </material>
    </visual>
    <!--   end visual shape approximation of f0 -->
    <!-- begin collision mesh of f0 ->
      <collision group="default">
        <origin xyz="0 0 0" rpy="0 0 0"/>
        <geometry>
          <mesh filename="package://sandia_hand_description/meshes/f0.stl"/>
        </geometry>
      </collision>
      <!-   end collision mesh of f0 -->
    <!-- begin visual mesh of f0 ->
      <visual>
        <origin xyz="0 0 0" rpy="0 0 0"/>
        <geometry>
          <mesh filename="package://sandia_hand_description/meshes/f0.stl"/>
        </geometry>
        <material name="${side}_sandia_hand_skin_suntan">
          <color rgba="0.7 0.4 0.2 1.0"/>
        </material>
      </visual>
      <!-   end visual mesh of f0 -->
  </link>
  <link name="left_f3_1">
    <origin rpy="0 0 0" xyz="0 0 0"/>
    <inertial>
      <mass value="0.033"/>
      <!-- F2 -->
      <origin xyz="0 0 0"/>
      <!-- solid cylinder -->
      <inertia ixx="0.00000165" ixy="0" ixz="0" iyy="0.00001316975" iyz="0" izz="0.00001316975"/>
    </inertial>
    <!-- begin simple shape approximation of f1 -->
    <collision group="default">
      <origin rpy="0 1.57079632679 0" xyz="0.024 0 0"/>
      <geometry>
        <cylinder length="0.067" radius="0.01"/>
      </geometry>
    </collision>
    <!--   end simple shape approximation of f1 -->
    <!-- begin visual shape approximation of f1 -->
    <visual>
      <origin rpy="0 1.57079632679 0" xyz="0.024 0 0"/>
      <geometry>
        <cylinder length="0.067" radius="0.01"/>
      </geometry>
      <material name="left_sandia_hand_skin">
        <color rgba="0.835 0.655 0.345 1.0"/>
      </material>
    </visual>
    <!--   end visual shape approximation of f1 -->
    <!-- begin collision mesh of f1 ->
      <collision group="default">
        <origin xyz="0 0 0" rpy="0 0 0"/>
        <geometry>
          <mesh filename="package://sandia_hand_description/meshes/f1.stl"/>
        </geometry>
      </collision>
      <!-   end collision mesh of f1 -->
    <!-- begin visual mesh of f1 ->
      <visual>
        <origin xyz="0 0 0" rpy="0 0 0"/>
        <geometry>
          <mesh filename="package://sandia_hand_description/meshes/f1.stl"/>
        </geometry>
        <material name="${side}_sandia_hand_skin">
          <color rgba="0.835 0.655 0.345 1.0"/>
        </material>
      </visual>
      <!-   end visual mesh of f1 -->
  </link>
  <link name="left_f3_1_accel">
    <origin rpy="0 0 0" xyz="0 0 0"/>
    <inertial>
      <mass value="0.01"/>
      <origin xyz="0 0 0"/>
      <inertia ixx="0.000001" ixy="0" ixz="0" iyy="0.000001" iyz="0" izz="0.000001"/>
    </inertial>
  </link>
  <link name="left_f3_2">
    <origin rpy="0 0 0" xyz="0 0 0"/>
    <inertial>
      <mass value="0.033"/>
      <!-- F3 -->
      <origin xyz="0 0 0"/>
      <!-- solid cylinder -->
      <inertia ixx="0.0000013365" ixy="0" ixz="0" iyy="0.000009603" iyz="0" izz="0.000009603"/>
    </inertial>
    <!-- begin simple shape approximation of f2 -->
    <collision group="default">
      <origin rpy="0 1.57079632679 0" xyz="0.024 0 0"/>
      <geometry>
        <cylinder length="0.057" radius="0.009"/>
      </geometry>
    </collision>
    <collision group="other">
      <origin rpy="0 0 0" xyz="0.052 0 0"/>
      <geometry>
        <sphere radius="0.009"/>
      </geometry>
    </collision>
    <!--   end simple shape approximation of f2 -->
    <!-- begin visual shape approximation of f2 -->
    <visual>
      <origin rpy="0 1.57079632679 0" xyz="0.024 0 0"/>
      <geometry>
        <cylinder length="0.057" radius="0.009"/>
      </geometry>
      <material name="left_sandia_hand_skin_suntan">
        <color rgba="0.8 0.6 0.3 1.0"/>
      </material>
    </visual>
    <visual>
      <origin rpy="0 0 0" xyz="0.052 0 0"/>
      <geometry>
        <sphere radius="0.009"/>
      </geometry>
      <material name="left_sandia_hand_skin_suntan">
        <color rgba="0.8 0.6 0.3 1.0"/>
      </material>
    </visual>
    <!-- begin collision mesh of f2    ->
      <collision group="default">
        <origin xyz="0 0 0" rpy="0 0 0"/>
        <geometry>
          <mesh filename="package://sandia_hand_description/meshes/f2.stl"/>
        </geometry>
      </collision>
      <!-   end collision mesh of f2 -->
    <!-- begin visual mesh of f2    ->
      <visual>
        <origin xyz="0 0 0" rpy="0 0 0"/>
        <geometry>
          <mesh filename="package://sandia_hand_description/meshes/f2.stl"/>
        </geometry>
        <material name="${side}_sandia_hand_skin_suntan">
          <color rgba="0.8 0.6 0.3 1.0"/>
        </material>
      </visual>
      <!-   end visual mesh of f2 -->
  </link>
  <link name="left_f3_2_accel">
    <origin rpy="0 0 0" xyz="0 0 0"/>
    <inertial>
      <mass value="0.01"/>
      <origin xyz="0 0 0"/>
      <inertia ixx="0.000001" ixy="0" ixz="0" iyy="0.000001" iyz="0" izz="0.000001"/>
    </inertial>
  </link>
  <joint name="left_f3_base" type="fixed">
    <parent link="left_palm"/>
    <child link="left_f3_base"/>
    <origin rpy="0 -1.57079632679 2.3562" xyz="0.03995 0.04383 0.014"/>
  </joint>
  <joint name="left_f3_j0" type="revolute">
    <axis xyz="0 0 -1"/>
    <parent link="left_f3_base"/>
    <child link="left_f3_0"/>
    <limit effort="11" lower="-1.57079632679" upper="1.57079632679" velocity="-1"/>
    <safety_controller k_position="1000.0" k_velocity="1000.0" soft_lower_limit="-11.57079" soft_upper_limit="11.57079"/>
    <dynamics damping="1.0"/>
    <origin rpy="0 0 0" xyz="0 0 0"/>
  </joint>
  <joint name="left_f3_j1" type="revolute">
    <axis xyz="0 0 1"/>
    <parent link="left_f3_0"/>
    <child link="left_f3_1"/>
    <limit effort="28" lower="-1.57079632679" upper="1.57079632679" velocity="-1"/>
    <safety_controller k_position="1000.0" k_velocity="1000.0" soft_lower_limit="-11.57079" soft_upper_limit="11.57079"/>
    <dynamics damping="1.0"/>
    <origin rpy="1.57079632679 0 0" xyz="0.028 0 0"/>
  </joint>
  <joint name="left_f3_j2" type="revolute">
    <axis xyz="0 0 1"/>
    <parent link="left_f3_1"/>
    <child link="left_f3_2"/>
    <origin rpy="0 0 0" xyz="0.05 0 0"/>
    <safety_controller k_position="1000.0" k_velocity="1000.0" soft_lower_limit="-11.57079" soft_upper_limit="11.57079"/>
    <dynamics damping="1.0"/>
    <limit effort="28" lower="-1.57079632679" upper="1.57079632679" velocity="-1"/>
  </joint>
  <joint name="left_f3_fixed_accel" type="fixed">
    <parent link="left_f3_base"/>
    <child link="left_f3_fixed_accel"/>
    <origin rpy="0 0 0" xyz="-0.05 0 0"/>
  </joint>
  <joint name="left_f3_1_accel" type="fixed">
    <parent link="left_f3_1"/>
    <child link="left_f3_1_accel"/>
    <origin rpy="-1.57079632679 0 0" xyz="0.03 0 0"/>
  </joint>
  <joint name="left_f3_2_accel" type="fixed">
    <parent link="left_f3_2"/>
    <child link="left_f3_2_accel"/>
    <origin rpy="-1.57079632679 0 0" xyz="0.04 0 0"/>
  </joint>
  <transmission name="left_f3_j0" type="pr2_mechanism_model/SimpleTransmission">
    <joint name="left_f3_j0"/>
    <actuator name="left_f3_j0_motor"/>
    <mechanicalReduction>1</mechanicalReduction>
  </transmission>
  <transmission name="left_f3_j1" type="pr2_mechanism_model/SimpleTransmission">
    <joint name="left_f3_j1"/>
    <actuator name="left_f3_j1_motor"/>
    <mechanicalReduction>1</mechanicalReduction>
  </transmission>
  <transmission name="left_f3_j2" type="pr2_mechanism_model/SimpleTransmission">
    <joint name="left_f3_j2"/>
    <actuator name="left_f3_j2_motor"/>
    <mechanicalReduction>1</mechanicalReduction>
  </transmission>
  <gazebo reference="left_f3_base">
    <mu1>0.9</mu1>
    <mu2>0.9</mu2>
    <kp>1000000.0</kp>
    <kd>1.0</kd>
    <maxVel>0.1</maxVel>
    <minDepth>0.001</minDepth>
    <material>Gazebo/FlatBlack</material>
  </gazebo>
  <gazebo reference="left_f3_0">
    <mu1>0.9</mu1>
    <mu2>0.9</mu2>
    <kp>1000000.0</kp>
    <kd>1.0</kd>
    <maxVel>0.1</maxVel>
    <minDepth>0.003</minDepth>
    <maxContacts>1</maxContacts>
    <material>Gazebo/FlatBlack</material>
  </gazebo>
  <gazebo reference="left_f3_1">
    <mu1>0.9</mu1>
    <mu2>0.9</mu2>
    <kp>1000000.0</kp>
    <kd>1.0</kd>
    <maxVel>0.1</maxVel>
    <minDepth>0.003</minDepth>
    <maxContacts>1</maxContacts>
    <material>Gazebo/FlatBlack</material>
  </gazebo>
  <gazebo reference="left_f3_2">
    <mu1>0.9</mu1>
    <mu2>0.9</mu2>
    <kp>1000000.0</kp>
    <kd>1.0</kd>
    <maxVel>0.1</maxVel>
    <minDepth>0.003</minDepth>
    <maxContacts>1</maxContacts>
    <material>Gazebo/FlatBlack</material>
  </gazebo>
  <gazebo reference="left_f3_j0">
    <cfmDamping>1</cfmDamping>
  </gazebo>
  <gazebo reference="left_f3_j1">
    <cfmDamping>1</cfmDamping>
  </gazebo>
  <gazebo reference="left_f3_j2">
    <cfmDamping>1</cfmDamping>
  </gazebo>
  <gazebo reference="left_palm">
    <mu1>0.9</mu1>
    <mu2>0.9</mu2>
    <material>Gazebo/FlatBlack</material>
  </gazebo>
  <joint name="left_palm_left_camera_frame_joint" type="fixed">
    <origin rpy="-0.6708 -1.57079632679 3.14159265359" xyz="0.0435128991906 -0.0451672761576 0.025"/>
    <parent link="left_palm"/>
    <child link="left_palm_left_camera_frame"/>
  </joint>
  <link name="left_palm_left_camera_frame">
    <inertial>
      <mass value="0.01"/>
      <origin xyz="0 0 0"/>
      <inertia ixx="0.0001" ixy="0.0" ixz="0.0" iyy="0.0001" iyz="0.0" izz="0.0001"/>
    </inertial>
    <visual group="default">
      <origin rpy="0 0 0" xyz="0 0 0"/>
      <geometry>
        <box size="0.003 0.010 0.007"/>
      </geometry>
    </visual>
  </link>
  <joint name="left_palm_left_camera_optical_frame_joint" type="fixed">
    <origin rpy="-1.57079632679 0.0 -1.57079632679" xyz="0 0 0"/>
    <parent link="left_palm_left_camera_frame"/>
    <child link="left_palm_left_camera_optical_frame"/>
  </joint>
  <link name="left_palm_left_camera_optical_frame"/>
  <gazebo reference="left_palm_left_camera_frame">
    <sensor name="left_palm_stereo_camera" type="multicamera">
      <update_rate>60.0</update_rate>
      <camera name="left">
        <horizontal_fov>1.25663706144</horizontal_fov>
        <image>
          <width>752</width>
          <height>480</height>
          <format>L8</format>
        </image>
        <clip>
          <near>0.02</near>
          <far>100</far>
        </clip>
        <noise>
          <type>gaussian</type>
          <mean>0.0</mean>
          <stddev>0.007</stddev>
        </noise>
      </camera>
      <camera name="right">
        <pose>0 -0.04 0  0 0 0</pose>
        <horizontal_fov>1.25663706144</horizontal_fov>
        <image>
          <width>752</width>
          <height>480</height>
          <format>L8</format>
        </image>
        <clip>
          <near>0.02</near>
          <far>100</far>
        </clip>
        <noise>
          <type>gaussian</type>
          <mean>0.0</mean>
          <stddev>0.007</stddev>
        </noise>
      </camera>
      <plugin filename="libgazebo_ros_multicamera.so" name="stereo_camera_controller">
        <alwaysOn>true</alwaysOn>
        <updateRate>0.0</updateRate>
        <cameraName>sandia_hands/l_hand/camera</cameraName>
        <imageTopicName>image_raw</imageTopicName>
        <cameraInfoTopicName>camera_info</cameraInfoTopicName>
        <frameName>left_palm_left_camera_optical_frame</frameName>
        <hackBaseline>0.04</hackBaseline>
        <distortionK1>0.0</distortionK1>
        <distortionK2>0.0</distortionK2>
        <distortionK3>0.0</distortionK3>
        <distortionT1>0.0</distortionT1>
        <distortionT2>0.0</distortionT2>
      </plugin>
    </sensor>
  </gazebo>
  <joint name="left_palm_right_camera_frame_joint" type="fixed">
    <origin rpy="-0.6708 -1.57079632679 3.14159265359" xyz="0.0683774130138 -0.0138342911048 0.025"/>
    <parent link="left_palm"/>
    <child link="left_palm_right_camera_frame"/>
  </joint>
  <link name="left_palm_right_camera_frame">
    <inertial>
      <mass value="0.01"/>
      <origin xyz="0 0 0"/>
      <inertia ixx="0.0001" ixy="0.0" ixz="0.0" iyy="0.0001" iyz="0.0" izz="0.0001"/>
    </inertial>
    <visual group="default">
      <origin rpy="0 0 0" xyz="0 0 0"/>
      <geometry>
        <box size="0.003 0.010 0.007"/>
      </geometry>
    </visual>
  </link>
  <joint name="left_palm_right_camera_optical_frame_joint" type="fixed">
    <origin rpy="-1.57079632679 0.0 -1.57079632679" xyz="0 0 0"/>
    <parent link="left_palm_right_camera_frame"/>
    <child link="left_palm_right_camera_optical_frame"/>
  </joint>
  <link name="left_palm_right_camera_optical_frame"/>
  <gazebo>
    <plugin filename="libContactModelPlugin.so" name="sandia_contact_plugin">
      <contact>
        <collision>l_hand::l_hand_collision_left_palm</collision>
        <collision>l_hand::l_hand_collision_left_palm_1</collision>
        <collision>l_hand::l_hand_collision_left_palm_3</collision>
        <collision>l_hand::l_hand_collision_left_palm_4</collision>
        <collision>l_hand::l_hand_collision_left_palm_5</collision>
        <collision>left_f0_1::left_f0_1_collision</collision>
        <collision>left_f0_2::left_f0_2_collision</collision>
        <collision>left_f1_1::left_f1_1_collision</collision>
        <collision>left_f1_2::left_f1_2_collision</collision>
        <collision>left_f2_1::left_f2_1_collision</collision>
        <collision>left_f2_2::left_f2_2_collision</collision>
        <collision>left_f3_1::left_f3_1_collision</collision>
        <collision>left_f3_2::left_f3_2_collision</collision>
      </contact>
    </plugin>
  </gazebo>
  <gazebo reference="l_hand">
    <sensor name="imu_sensor" type="imu">
      <always_on>1</always_on>
      <update_rate>1000.0</update_rate>
      <imu>
        <noise>
          <type>gaussian</type>
          <rate>
            <mean>0.0</mean>
            <stddev>2e-4</stddev>
            <bias_mean>0.0000075</bias_mean>
            <bias_stddev>0.0000008</bias_stddev>
          </rate>
          <accel>
            <mean>0.0</mean>
            <stddev>1.7e-2</stddev>
            <bias_mean>0.1</bias_mean>
            <bias_stddev>0.001</bias_stddev>
          </accel>
        </noise>
      </imu>
    </sensor>
  </gazebo>
  <gazebo>
    <!-- robot model offset -->
    <pose>0 0 0.93 0 0 0</pose>
  </gazebo>
  <gazebo>
    <plugin filename="libAtlasPlugin.so" name="atlas_plugin"/>
    <plugin filename="libgazebo_ros_joint_trajectory.so" name="joint_trajectory_plugin">
      <topicName>joint_trajectory</topicName>
      <updateRate>1000.0</updateRate>
    </plugin>
    <!--
    <plugin filename="libgazebo_ros_controller_manager.so" name="gazebo_ros_controller_manager">
      <alwaysOn>true</alwaysOn>
      <updateRate>1000.0</updateRate>
    </plugin>
    -->
  </gazebo>
  <link name="imu_link">
    <inertial>
      <mass value="0.1"/>
      <origin xyz="0 0 0"/>
      <inertia ixx="0.001" ixy="0" ixz="0" iyy="0.001" iyz="0" izz="0.001"/>
    </inertial>
    <visual>
      <origin rpy="0 0 0" xyz="0 0 0"/>
      <geometry>
        <box size="0.01 0.01 0.01"/>
      </geometry>
    </visual>
  </link>
  <joint name="imu_joint" type="fixed">
    <parent link="pelvis"/>
    <child link="imu_link"/>
    <origin rpy="0 0 0" xyz="0.05991527603 0 -0.01415"/>
  </joint>
  <gazebo reference="imu_link">
    <!-- this is expected to be reparented to pelvis with appropriate offset
         when imu_link is reduced by fixed joint reduction -->
    <!-- todo: this is working with gazebo 1.4, need to write a unit test -->
    <sensor name="imu_sensor" type="imu">
      <always_on>1</always_on>
      <update_rate>1000.0</update_rate>
      <imu>
        <noise>
          <type>gaussian</type>
          <!-- Noise parameters from Boston Dynamics
               (http://gazebosim.org/wiki/Sensor_noise):
                 rates (rad/s): mean=0, stddev=2e-4
                 accels (m/s/s): mean=0, stddev=1.7e-2
                 rate bias (rad/s): 5e-6 - 1e-5
                 accel bias (m/s/s): 1e-1
               Experimentally, simulation provide rates with noise of
               about 1e-3 rad/s and accels with noise of about 1e-1 m/s/s.
               So we don't expect to see the noise unless number of inner iterations
               are increased.

               We will add bias.  In this model, bias is sampled once for rates
               and once for accels at startup; the sign (negative or positive)
               of each bias is then switched with equal probability.  Thereafter,
               the biases are fixed additive offsets.  We choose
               bias means and stddevs to produce biases close to the provided
               data. -->
          <rate>
            <mean>0.0</mean>
            <stddev>2e-4</stddev>
            <bias_mean>0.0000075</bias_mean>
            <bias_stddev>0.0000008</bias_stddev>
          </rate>
          <accel>
            <mean>0.0</mean>
            <stddev>1.7e-2</stddev>
            <bias_mean>0.1</bias_mean>
            <bias_stddev>0.001</bias_stddev>
          </accel>
        </noise>
      </imu>
    </sensor>
  </gazebo>
  <gazebo reference="l_arm_mwx">
    <provideFeedback>1</provideFeedback>
  </gazebo>
  <gazebo reference="r_arm_mwx">
    <provideFeedback>1</provideFeedback>
  </gazebo>
  <gazebo reference="l_leg_lax">
    <provideFeedback>1</provideFeedback>
    <cfmDamping>1</cfmDamping>
  </gazebo>
  <gazebo reference="r_leg_lax">
    <provideFeedback>1</provideFeedback>
    <cfmDamping>1</cfmDamping>
  </gazebo>
  <gazebo reference="r_foot">
    <kp>6000000.0</kp>
    <kd>1.0</kd>
    <mu1>0.9</mu1>
    <mu2>0.9</mu2>
    <fdir1>1 0 0</fdir1>
    <maxVel>1.0</maxVel>
    <minDepth>0.003</minDepth>
  </gazebo>
  <gazebo reference="l_foot">
    <kp>6000000.0</kp>
    <kd>1.0</kd>
    <mu1>0.9</mu1>
    <mu2>0.9</mu2>
    <fdir1>1 0 0</fdir1>
    <maxVel>1.0</maxVel>
    <minDepth>0.003</minDepth>
  </gazebo>
  <gazebo reference="l_clav">
    <mu1>0.9</mu1>
    <mu2>0.9</mu2>
  </gazebo>
  <gazebo reference="l_farm">
    <mu1>0.9</mu1>
    <mu2>0.9</mu2>
  </gazebo>
  <gazebo reference="l_hand">
    <mu1>0.9</mu1>
    <mu2>0.9</mu2>
  </gazebo>
  <gazebo reference="l_larm">
    <mu1>0.9</mu1>
    <mu2>0.9</mu2>
  </gazebo>
  <gazebo reference="l_lglut">
    <mu1>0.9</mu1>
    <mu2>0.9</mu2>
  </gazebo>
  <gazebo reference="l_lleg">
    <mu1>0.9</mu1>
    <mu2>0.9</mu2>
  </gazebo>
  <gazebo reference="l_scap">
    <mu1>0.9</mu1>
    <mu2>0.9</mu2>
  </gazebo>
  <gazebo reference="l_talus">
    <mu1>0.9</mu1>
    <mu2>0.9</mu2>
  </gazebo>
  <gazebo reference="l_uarm">
    <mu1>0.9</mu1>
    <mu2>0.9</mu2>
  </gazebo>
  <gazebo reference="l_uglut">
    <mu1>0.9</mu1>
    <mu2>0.9</mu2>
  </gazebo>
  <gazebo reference="l_uleg">
    <mu1>0.9</mu1>
    <mu2>0.9</mu2>
  </gazebo>
  <gazebo reference="ltorso">
    <mu1>0.9</mu1>
    <mu2>0.9</mu2>
  </gazebo>
  <gazebo reference="mtorso">
    <mu1>0.9</mu1>
    <mu2>0.9</mu2>
  </gazebo>
  <gazebo reference="pelvis">
    <mu1>0.9</mu1>
    <mu2>0.9</mu2>
  </gazebo>
  <gazebo reference="r_clav">
    <mu1>0.9</mu1>
    <mu2>0.9</mu2>
  </gazebo>
  <gazebo reference="r_farm">
    <mu1>0.9</mu1>
    <mu2>0.9</mu2>
  </gazebo>
  <gazebo reference="r_hand">
    <mu1>0.9</mu1>
    <mu2>0.9</mu2>
  </gazebo>
  <gazebo reference="r_larm">
    <mu1>0.9</mu1>
    <mu2>0.9</mu2>
  </gazebo>
  <gazebo reference="r_lglut">
    <mu1>0.9</mu1>
    <mu2>0.9</mu2>
  </gazebo>
  <gazebo reference="r_lleg">
    <mu1>0.9</mu1>
    <mu2>0.9</mu2>
  </gazebo>
  <gazebo reference="r_scap">
    <mu1>0.9</mu1>
    <mu2>0.9</mu2>
  </gazebo>
  <gazebo reference="r_talus">
    <mu1>0.9</mu1>
    <mu2>0.9</mu2>
  </gazebo>
  <gazebo reference="r_uarm">
    <mu1>0.9</mu1>
    <mu2>0.9</mu2>
  </gazebo>
  <gazebo reference="r_uglut">
    <mu1>0.9</mu1>
    <mu2>0.9</mu2>
  </gazebo>
  <gazebo reference="r_uleg">
    <mu1>0.9</mu1>
    <mu2>0.9</mu2>
  </gazebo>
  <gazebo reference="utorso">
    <mu1>0.9</mu1>
    <mu2>0.9</mu2>
  </gazebo>
  <gazebo>
    <plugin filename="libgazebo_ros_p3d.so" name="gazebo_ros_p3d">
      <bodyName>pelvis</bodyName>
      <topicName>/ground_truth_odom</topicName>
      <alwaysOn>true</alwaysOn>
      <updateRate>100.0</updateRate>
    </plugin>
  </gazebo>
  <gazebo reference="r_foot">
    <!-- contact sensor -->
    <sensor name="r_foot_contact_sensor" type="contact">
      <update_rate>1000.0</update_rate>
      <always_on>1</always_on>
      <contact>
        <collision>r_foot_collision</collision>
        <topic>/r_foot_contact</topic>
      </contact>
    </sensor>
  </gazebo>
  <gazebo reference="l_foot">
    <!-- contact sensor -->
    <sensor name="l_foot_contact_sensor" type="contact">
      <update_rate>1000.0</update_rate>
      <always_on>1</always_on>
      <contact>
        <collision>l_foot_collision</collision>
        <topic>/l_foot_contact</topic>
      </contact>
    </sensor>
  </gazebo>
  <gazebo>
    <plugin filename="libgazebo_ros_force.so" name="gazebo_ros_force">
      <bodyName>pelvis</bodyName>
      <topicName>/atlas/apply_pelvis_force</topicName>
    </plugin>
  </gazebo>
  <gazebo reference="back_lbz">
    <cfmDamping>1</cfmDamping>
  </gazebo>
  <gazebo reference="back_mby">
    <cfmDamping>1</cfmDamping>
  </gazebo>
  <gazebo reference="back_ubx">
    <cfmDamping>1</cfmDamping>
  </gazebo>
  <gazebo reference="l_arm_elx">
    <cfmDamping>1</cfmDamping>
  </gazebo>
  <gazebo reference="l_arm_ely">
    <cfmDamping>1</cfmDamping>
  </gazebo>
  <gazebo reference="l_arm_mwx">
    <cfmDamping>1</cfmDamping>
  </gazebo>
  <gazebo reference="l_arm_shx">
    <cfmDamping>1</cfmDamping>
  </gazebo>
  <gazebo reference="l_arm_usy">
    <cfmDamping>1</cfmDamping>
  </gazebo>
  <gazebo reference="l_arm_uwy">
    <cfmDamping>1</cfmDamping>
  </gazebo>
  <gazebo reference="l_leg_kny">
    <cfmDamping>1</cfmDamping>
  </gazebo>
  <gazebo reference="l_leg_lhy">
    <cfmDamping>1</cfmDamping>
  </gazebo>
  <gazebo reference="l_leg_mhx">
    <cfmDamping>1</cfmDamping>
  </gazebo>
  <gazebo reference="l_leg_uay">
    <cfmDamping>1</cfmDamping>
  </gazebo>
  <gazebo reference="l_leg_uhz">
    <cfmDamping>1</cfmDamping>
  </gazebo>
  <gazebo reference="neck_ay">
    <cfmDamping>1</cfmDamping>
  </gazebo>
  <gazebo reference="r_arm_elx">
    <cfmDamping>1</cfmDamping>
  </gazebo>
  <gazebo reference="r_arm_ely">
    <cfmDamping>1</cfmDamping>
  </gazebo>
  <gazebo reference="r_arm_mwx">
    <cfmDamping>1</cfmDamping>
  </gazebo>
  <gazebo reference="r_arm_shx">
    <cfmDamping>1</cfmDamping>
  </gazebo>
  <gazebo reference="r_arm_usy">
    <cfmDamping>1</cfmDamping>
  </gazebo>
  <gazebo reference="r_arm_uwy">
    <cfmDamping>1</cfmDamping>
  </gazebo>
  <gazebo reference="r_leg_kny">
    <cfmDamping>1</cfmDamping>
  </gazebo>
  <gazebo reference="r_leg_lhy">
    <cfmDamping>1</cfmDamping>
  </gazebo>
  <gazebo reference="r_leg_mhx">
    <cfmDamping>1</cfmDamping>
  </gazebo>
  <gazebo reference="r_leg_uay">
    <cfmDamping>1</cfmDamping>
  </gazebo>
  <gazebo reference="r_leg_uhz">
    <cfmDamping>1</cfmDamping>
  </gazebo>
  <transmission name="head_hokuyo_trans" type="pr2_mechanism_model/SimpleTransmission">
    <joint name="hokuyo_joint"/>
    <actuator name="hokuyo_motor"/>
    <mechanicalReduction>1</mechanicalReduction>
  </transmission>
  <transmission name="back_lbz_trans" type="pr2_mechanism_model/SimpleTransmission">
    <joint name="back_lbz"/>
    <actuator name="back_lbz_motor"/>
    <mechanicalReduction>1</mechanicalReduction>
  </transmission>
  <transmission name="back_mby_trans" type="pr2_mechanism_model/SimpleTransmission">
    <actuator name="back_mby_motor"/>
    <joint name="back_mby"/>
    <mechanicalReduction>1</mechanicalReduction>
  </transmission>
  <transmission name="back_ubx_trans" type="pr2_mechanism_model/SimpleTransmission">
    <actuator name="back_ubx_motor"/>
    <joint name="back_ubx"/>
    <mechanicalReduction>1</mechanicalReduction>
  </transmission>
  <transmission name="l_arm_elx_trans" type="pr2_mechanism_model/SimpleTransmission">
    <actuator name="l_arm_elx_motor"/>
    <joint name="l_arm_elx"/>
    <mechanicalReduction>1</mechanicalReduction>
  </transmission>
  <transmission name="l_arm_ely_trans" type="pr2_mechanism_model/SimpleTransmission">
    <actuator name="l_arm_ely_motor"/>
    <joint name="l_arm_ely"/>
    <mechanicalReduction>1</mechanicalReduction>
  </transmission>
  <transmission name="l_arm_mwx_trans" type="pr2_mechanism_model/SimpleTransmission">
    <actuator name="l_arm_mwx_motor"/>
    <joint name="l_arm_mwx"/>
    <mechanicalReduction>1</mechanicalReduction>
  </transmission>
  <transmission name="l_arm_shx_trans" type="pr2_mechanism_model/SimpleTransmission">
    <actuator name="l_arm_shx_motor"/>
    <joint name="l_arm_shx"/>
    <mechanicalReduction>1</mechanicalReduction>
  </transmission>
  <transmission name="l_arm_usy_trans" type="pr2_mechanism_model/SimpleTransmission">
    <actuator name="l_arm_usy_motor"/>
    <joint name="l_arm_usy"/>
    <mechanicalReduction>1</mechanicalReduction>
  </transmission>
  <transmission name="l_arm_uwy_trans" type="pr2_mechanism_model/SimpleTransmission">
    <actuator name="l_arm_uwy_motor"/>
    <joint name="l_arm_uwy"/>
    <mechanicalReduction>1</mechanicalReduction>
  </transmission>
  <transmission name="l_leg_kny_trans" type="pr2_mechanism_model/SimpleTransmission">
    <actuator name="l_leg_kny_motor"/>
    <joint name="l_leg_kny"/>
    <mechanicalReduction>1</mechanicalReduction>
  </transmission>
  <transmission name="l_leg_lax_trans" type="pr2_mechanism_model/SimpleTransmission">
    <actuator name="l_leg_lax_motor"/>
    <joint name="l_leg_lax"/>
    <mechanicalReduction>1</mechanicalReduction>
  </transmission>
  <transmission name="l_leg_lhy_trans" type="pr2_mechanism_model/SimpleTransmission">
    <actuator name="l_leg_lhy_motor"/>
    <joint name="l_leg_lhy"/>
    <mechanicalReduction>1</mechanicalReduction>
  </transmission>
  <transmission name="l_leg_mhx_trans" type="pr2_mechanism_model/SimpleTransmission">
    <actuator name="l_leg_mhx_motor"/>
    <joint name="l_leg_mhx"/>
    <mechanicalReduction>1</mechanicalReduction>
  </transmission>
  <transmission name="l_leg_uay_trans" type="pr2_mechanism_model/SimpleTransmission">
    <actuator name="l_leg_uay_motor"/>
    <joint name="l_leg_uay"/>
    <mechanicalReduction>1</mechanicalReduction>
  </transmission>
  <transmission name="l_leg_uhz_trans" type="pr2_mechanism_model/SimpleTransmission">
    <actuator name="l_leg_uhz_motor"/>
    <joint name="l_leg_uhz"/>
    <mechanicalReduction>1</mechanicalReduction>
  </transmission>
  <transmission name="neck_ay_trans" type="pr2_mechanism_model/SimpleTransmission">
    <actuator name="neck_ay_motor"/>
    <joint name="neck_ay"/>
    <mechanicalReduction>1</mechanicalReduction>
  </transmission>
  <transmission name="r_arm_elx_trans" type="pr2_mechanism_model/SimpleTransmission">
    <actuator name="r_arm_elx_motor"/>
    <joint name="r_arm_elx"/>
    <mechanicalReduction>1</mechanicalReduction>
  </transmission>
  <transmission name="r_arm_ely_trans" type="pr2_mechanism_model/SimpleTransmission">
    <actuator name="r_arm_ely_motor"/>
    <joint name="r_arm_ely"/>
    <mechanicalReduction>1</mechanicalReduction>
  </transmission>
  <transmission name="r_arm_mwx_trans" type="pr2_mechanism_model/SimpleTransmission">
    <actuator name="r_arm_mwx_motor"/>
    <joint name="r_arm_mwx"/>
    <mechanicalReduction>1</mechanicalReduction>
  </transmission>
  <transmission name="r_arm_shx_trans" type="pr2_mechanism_model/SimpleTransmission">
    <actuator name="r_arm_shx_motor"/>
    <joint name="r_arm_shx"/>
    <mechanicalReduction>1</mechanicalReduction>
  </transmission>
  <transmission name="r_arm_usy_trans" type="pr2_mechanism_model/SimpleTransmission">
    <actuator name="r_arm_usy_motor"/>
    <joint name="r_arm_usy"/>
    <mechanicalReduction>1</mechanicalReduction>
  </transmission>
  <transmission name="r_arm_uwy_trans" type="pr2_mechanism_model/SimpleTransmission">
    <actuator name="r_arm_uwy_motor"/>
    <joint name="r_arm_uwy"/>
    <mechanicalReduction>1</mechanicalReduction>
  </transmission>
  <transmission name="r_leg_kny_trans" type="pr2_mechanism_model/SimpleTransmission">
    <actuator name="r_leg_kny_motor"/>
    <joint name="r_leg_kny"/>
    <mechanicalReduction>1</mechanicalReduction>
  </transmission>
  <transmission name="r_leg_lax_trans" type="pr2_mechanism_model/SimpleTransmission">
    <actuator name="r_leg_lax_motor"/>
    <joint name="r_leg_lax"/>
    <mechanicalReduction>1</mechanicalReduction>
  </transmission>
  <transmission name="r_leg_lhy_trans" type="pr2_mechanism_model/SimpleTransmission">
    <actuator name="r_leg_lhy_motor"/>
    <joint name="r_leg_lhy"/>
    <mechanicalReduction>1</mechanicalReduction>
  </transmission>
  <transmission name="r_leg_mhx_trans" type="pr2_mechanism_model/SimpleTransmission">
    <actuator name="r_leg_mhx_motor"/>
    <joint name="r_leg_mhx"/>
    <mechanicalReduction>1</mechanicalReduction>
  </transmission>
  <transmission name="r_leg_uay_trans" type="pr2_mechanism_model/SimpleTransmission">
    <actuator name="r_leg_uay_motor"/>
    <joint name="r_leg_uay"/>
    <mechanicalReduction>1</mechanicalReduction>
  </transmission>
  <transmission name="r_leg_uhz_trans" type="pr2_mechanism_model/SimpleTransmission">
    <actuator name="r_leg_uhz_motor"/>
    <joint name="r_leg_uhz"/>
    <mechanicalReduction>1</mechanicalReduction>
  </transmission>
  <link name="head">
    <inertial>
      <origin rpy="0 0 0" xyz="-0.075493 3.3383E-05 0.02774"/>
      <mass value="1.41984"/>
      <!--<inertia iyy="0.0041178" ixy="-1.5797E-06" iyz="-6.8415E-07" ixx="0.0039688" ixz="-0.00089293" izz="0.0035243" />-->
      <inertia ixx="0.0036053766" ixy="-1.5797E-06" ixz="-0.00089293" iyy="0.002080106" iyz="-6.8415E-07" izz="0.001782985"/>
    </inertial>
    <visual>
      <origin rpy="0 0 0" xyz="0 0 0"/>
      <geometry>
        <mesh filename="package://multisense_sl_description/meshes/head.dae"/>
      </geometry>
      <material name="">
        <color rgba="0.9098 0.44314 0.031373 1"/>
      </material>
    </visual>
    <collision group="default">
      <origin rpy="0 0 0" xyz="-0.0503 0 -0.00195"/>
      <geometry>
        <box size="0.1311 0.12 0.0591"/>
      </geometry>
    </collision>
    <collision group="other">
      <origin rpy="0 0 0" xyz="-0.093 0 0.0868"/>
      <geometry>
        <box size="0.0468 0.12 0.1184"/>
      </geometry>
    </collision>
  </link>
  <link name="hokuyo_link">
    <inertial>
      <origin rpy="0 0 0" xyz="0.012428 0.0004084 -0.0041835"/>
      <mass value="0.057654"/>
      <!--<inertia iyy="4.2412E-05" ixy="4.9927E-08" iyz="-9.8165E-09" ixx="3.7174E-05" ixz="1.1015E-05" izz="4.167E-05" />-->
      <!-- distribute iyy and izz equally between head and hokuyo_link given it's constrainted anyways -->
      <!-- tweak ixx of hokuyo so it's larger, 1/10th of head ixx. -->
      <inertia ixx="0.0004005974" ixy="4.9927E-08" ixz="1.1015E-05" iyy="0.002080106" iyz="-9.8165E-09" izz="0.001782985"/>
    </inertial>
    <visual>
      <!--origin xyz="0.065774 -0.001163 -0.08809" rpy="0 0 0" /-->
      <!--origin xyz="0.045 -0.001163 -0.08809" rpy="-0.314 0 0" /-->
      <origin rpy="-0.314 0 0" xyz="0.045 -0.0261018277 -0.08342369"/>
      <geometry>
        <mesh filename="package://multisense_sl_description/meshes/head_camera.dae"/>
      </geometry>
      <material name="">
        <color rgba="0.72941 0.35686 0.023529 1"/>
      </material>
    </visual>
    <collision group="default">
      <origin rpy="0 0 0" xyz="0.01885 0 -0.02119"/>
      <geometry>
        <box size="0.08 0.06 0.04238"/>
      </geometry>
    </collision>
    <collision group="other">
      <origin rpy="0 0 0" xyz="0.03 0 0.0235"/>
      <geometry>
        <cylinder length="0.047" radius="0.024425"/>
      </geometry>
    </collision>
  </link>
  <joint name="hokuyo_joint" type="continuous">
    <origin rpy="0 0 0" xyz="-0.0446 0 0.0880"/>
    <parent link="head"/>
    <child link="hokuyo_link"/>
    <axis xyz="1 0 0"/>
    <dynamics damping="0.01" friction="0"/>
  </joint>
  <joint name="head_hokuyo_joint" type="fixed">
    <axis xyz="0 1 0"/>
    <origin rpy="0 0 0" xyz="0.03 0 0.015"/>
    <parent link="hokuyo_link"/>
    <child link="head_hokuyo_frame"/>
  </joint>
  <link name="head_hokuyo_frame">
    <inertial>
      <mass value="1e-5"/>
      <!-- collocate with parent link and remove mass from it -->
      <origin rpy="0 0 0" xyz="0.042428 0.0004084 0.0108165"/>
      <inertia ixx="1e-6" ixy="0" ixz="0" iyy="1e-6" iyz="0" izz="1e-6"/>
    </inertial>
  </link>
  <gazebo reference="head_hokuyo_frame">
    <sensor name="head_hokuyo_sensor" type="gpu_ray">
      <pose>0 0 0 0 0 0</pose>
      <visualize>false</visualize>
      <update_rate>40</update_rate>
      <ray>
        <scan>
          <horizontal>
            <samples>720</samples>
            <resolution>1</resolution>
            <min_angle>-1.570796</min_angle>
            <max_angle>1.570796</max_angle>
          </horizontal>
        </scan>
        <range>
          <min>0.10</min>
          <max>30.0</max>
          <resolution>0.01</resolution>
        </range>
        <noise>
          <type>gaussian</type>
          <!-- Noise parameters based on published spec for Hokuyo laser
               achieving "+-30mm" accuracy at range < 10m.  A mean of 0.0m and
               stddev of 0.01m will put 99.7% of samples within 0.03m of the true
               reading. -->
          <mean>0.0</mean>
          <stddev>0.01</stddev>
        </noise>
      </ray>
      <plugin filename="libgazebo_ros_gpu_laser.so" name="gazebo_ros_head_hokuyo_controller">
        <topicName>/multisense_sl/laser/scan</topicName>
        <frameName>head_hokuyo_frame</frameName>
      </plugin>
    </sensor>
  </gazebo>
  <joint name="left_camera_frame_joint" type="fixed">
    <!-- optical frame collocated with tilting DOF -->
    <origin xyz="0.0 0.035 -0.002"/>
    <parent link="head"/>
    <child link="left_camera_frame"/>
  </joint>
  <link name="left_camera_frame">
    <inertial>
      <mass value="1e-5"/>
      <!-- collocate with parent link and remove mass from it -->
      <origin xyz="-0.075493 0.035033383 0.02574"/>
      <inertia ixx="1e-6" ixy="0" ixz="0" iyy="1e-6" iyz="0" izz="1e-6"/>
    </inertial>
  </link>
  <joint name="left_camera_optical_frame_joint" type="fixed">
    <origin rpy="-1.5708 0.0 -1.5708" xyz="0 0 0"/>
    <parent link="left_camera_frame"/>
    <child link="left_camera_optical_frame"/>
  </joint>
  <link name="left_camera_optical_frame"/>
  <gazebo reference="left_camera_frame">
    <sensor name="stereo_camera" type="multicamera">
      <!-- see MultiSenseSLPlugin.h for available modes -->
      <update_rate>30.0</update_rate>
      <camera name="left">
        <!-- Spec sheet says 80deg X 45deg @ 1024x544pix.  Based on feedback
             from teams, we're instead doing 80deg X 80deg @ 800x800pix. -->
        <horizontal_fov>1.3962634</horizontal_fov>
        <image>
          <width>800</width>
          <height>800</height>
          <format>R8G8B8</format>
        </image>
        <clip>
          <near>0.02</near>
          <far>300</far>
        </clip>
        <noise>
          <type>gaussian</type>
          <!-- Noise is sampled independently per pixel on each frame.  
               That pixel's noise value is added to each of its color
               channels, which at that point lie in the range [0,1].
               The stddev value of 0.007 is based on experimental data 
               from a camera in a Sandia hand pointed at a static scene
               in a couple of different lighting conditions.  -->
          <mean>0.0</mean>
          <stddev>0.007</stddev>
        </noise>
      </camera>
      <camera name="right">
        <pose>0 -0.07 0 0 0 0</pose>
        <!-- Spec sheet says 80deg X 45deg @ 1024x544pix.  Based on feedback
             from teams, we're instead doing 80deg X 80deg @ 800x800pix. -->
        <horizontal_fov>1.3962634</horizontal_fov>
        <image>
          <width>800</width>
          <height>800</height>
          <format>R8G8B8</format>
        </image>
        <clip>
          <near>0.02</near>
          <far>300</far>
        </clip>
        <noise>
          <type>gaussian</type>
          <!-- Noise is sampled independently per pixel on each frame.  
               That pixel's noise value is added to each of its color
               channels, which at that point lie in the range [0,1].
               The stddev value of 0.007 is based on experimental data 
               from a camera in a Sandia hand pointed at a static scene
               in a couple of different lighting conditions.  -->
          <mean>0.0</mean>
          <stddev>0.007</stddev>
        </noise>
      </camera>
      <plugin filename="libgazebo_ros_multicamera.so" name="stereo_camera_controller">
        <alwaysOn>true</alwaysOn>
        <updateRate>0.0</updateRate>
        <cameraName>multisense_sl/camera</cameraName>
        <imageTopicName>image_raw</imageTopicName>
        <cameraInfoTopicName>camera_info</cameraInfoTopicName>
        <frameName>left_camera_optical_frame</frameName>
        <!--<rightFrameName>right_camera_optical_frame</rightFrameName>-->
        <hackBaseline>0.07</hackBaseline>
        <distortionK1>0.0</distortionK1>
        <distortionK2>0.0</distortionK2>
        <distortionK3>0.0</distortionK3>
        <distortionT1>0.0</distortionT1>
        <distortionT2>0.0</distortionT2>
      </plugin>
    </sensor>
  </gazebo>
  <joint name="right_camera_frame_joint" type="fixed">
    <origin xyz="0.0 -0.035 -0.002"/>
    <parent link="head"/>
    <child link="right_camera_frame"/>
  </joint>
  <link name="right_camera_frame">
    <inertial>
      <mass value="1e-5"/>
      <!-- collocate with parent link and remove mass from it -->
      <origin xyz="-0.075493 -0.034966617 0.02574"/>
      <inertia ixx="1e-6" ixy="0" ixz="0" iyy="1e-6" iyz="0" izz="1e-6"/>
    </inertial>
  </link>
  <joint name="right_camera_optical_frame_joint" type="fixed">
    <origin rpy="-1.5708 0.0 -1.5708" xyz="0 0 0"/>
    <parent link="right_camera_frame"/>
    <child link="right_camera_optical_frame"/>
  </joint>
  <link name="right_camera_optical_frame"/>
  <joint name="center_top_led_frame_joint" type="fixed">
    <origin xyz="0.01125 0.0 0.0105"/>
    <parent link="head"/>
    <child link="center_top_led_frame"/>
  </joint>
  <link name="center_top_led_frame">
    <inertial>
      <mass value="1e-5"/>
      <!-- collocate with parent link and remove mass from it -->
      <origin rpy="0 0 0" xyz="-0.064243 0.000033383 0.03824"/>
      <inertia ixx="1e-6" ixy="0" ixz="0" iyy="1e-6" iyz="0" izz="1e-6"/>
    </inertial>
  </link>
  <joint name="center_bottom_led_frame_joint" type="fixed">
    <origin xyz="0.01125 0.0 -0.0155"/>
    <parent link="head"/>
    <child link="center_bottom_led_frame"/>
  </joint>
  <link name="center_bottom_led_frame">
    <inertial>
      <mass value="1e-5"/>
      <!-- collocate with parent link and remove mass from it -->
      <origin rpy="0 0 0" xyz="-0.064243 0.000033383 0.01224"/>
      <inertia ixx="1e-6" ixy="0" ixz="0" iyy="1e-6" iyz="0" izz="1e-6"/>
    </inertial>
  </link>
  <joint name="left_led_frame_joint" type="fixed">
    <origin rpy="0 -0.15 0.53" xyz="-0.01443 0.07452 0.050346"/>
    <parent link="head"/>
    <child link="left_led_frame"/>
  </joint>
  <link name="left_led_frame">
    <inertial>
      <mass value="1e-5"/>
      <!-- collocate with parent link and remove mass from it -->
      <origin rpy="0 -0.15 0.53" xyz="-0.089923 0.074553383 0.078086"/>
      <inertia ixx="1e-6" ixy="0" ixz="0" iyy="1e-6" iyz="0" izz="1e-6"/>
    </inertial>
  </link>
  <joint name="right_led_frame_joint" type="fixed">
    <origin rpy="0 -0.15 -0.53" xyz="-0.01443 -0.07452 0.050346"/>
    <parent link="head"/>
    <child link="right_led_frame"/>
  </joint>
  <link name="right_led_frame">
    <inertial>
      <mass value="1e-5"/>
      <!-- collocate with parent link and remove mass from it -->
      <origin rpy="0 -0.15 -0.53" xyz="-0.089923 -0.074486617 0.07908"/>
      <inertia ixx="1e-6" ixy="0" ixz="0" iyy="1e-6" iyz="0" izz="1e-6"/>
    </inertial>
  </link>
  <gazebo>
    <plugin filename="libMultiSenseSLPlugin.so" name="multisense_plugin"/>
  </gazebo>
  <link name="head_imu_link">
    <inertial>
      <mass value="1e-5"/>
      <!-- collocate with parent link and remove mass from it -->
      <origin rpy="0 0 0" xyz="-0.122993 0.035033383 0.02774"/>
      <inertia ixx="1e-6" ixy="0" ixz="0" iyy="1e-6" iyz="0" izz="1e-6"/>
    </inertial>
    <visual>
      <origin rpy="0 0 0" xyz="0 0 0"/>
      <geometry>
        <box size="0.01 0.01 0.01"/>
      </geometry>
    </visual>
  </link>
  <joint name="head_imu_joint" type="fixed">
    <parent link="head"/>
    <child link="head_imu_link"/>
    <!-- putting it at the same z-level as the stereo -->
    <origin rpy="0 0 0" xyz="-0.0475 0.035 0.0"/>
  </joint>
  <gazebo reference="head_imu_link">
    <!-- this is expected to be reparented to head with appropriate offset
         when head_imu_link is reduced by fixed joint reduction -->
    <!-- todo: this is working with gazebo 1.4, need to write a unit test -->
    <sensor name="head_imu_sensor" type="imu">
      <always_on>1</always_on>
      <update_rate>1000.0</update_rate>
      <imu>
        <noise>
          <type>gaussian</type>
          <!-- Noise parameters from Boston Dynamics
               (http://gazebosim.org/wiki/Sensor_noise):
                 rates (rad/s): mean=0, stddev=2e-4
                 accels (m/s/s): mean=0, stddev=1.7e-2
                 rate bias (rad/s): 5e-6 - 1e-5
                 accel bias (m/s/s): 1e-1
               Experimentally, simulation provide rates with noise of
               about 1e-3 rad/s and accels with noise of about 1e-1 m/s/s.
               So we don't expect to see the noise unless number of inner iterations
               are increased.

               We will add bias.  In this model, bias is sampled once for rates
               and once for accels at startup; the sign (negative or positive)
               of each bias is then switched with equal probability.  Thereafter,
               the biases are fixed additive offsets.  We choose
               bias means and stddevs to produce biases close to the provided
               data. -->
          <rate>
            <mean>0.0</mean>
            <stddev>2e-4</stddev>
            <bias_mean>0.0000075</bias_mean>
            <bias_stddev>0.0000008</bias_stddev>
          </rate>
          <accel>
            <mean>0.0</mean>
            <stddev>1.7e-2</stddev>
            <bias_mean>0.1</bias_mean>
            <bias_stddev>0.001</bias_stddev>
          </accel>
        </noise>
      </imu>
    </sensor>
  </gazebo>
  <gazebo>
    <!-- include plugin for sandia hands -->
    <plugin filename="libSandiaHandPlugin.so" name="sandia_hand_plugin"/>
  </gazebo>
</robot>
